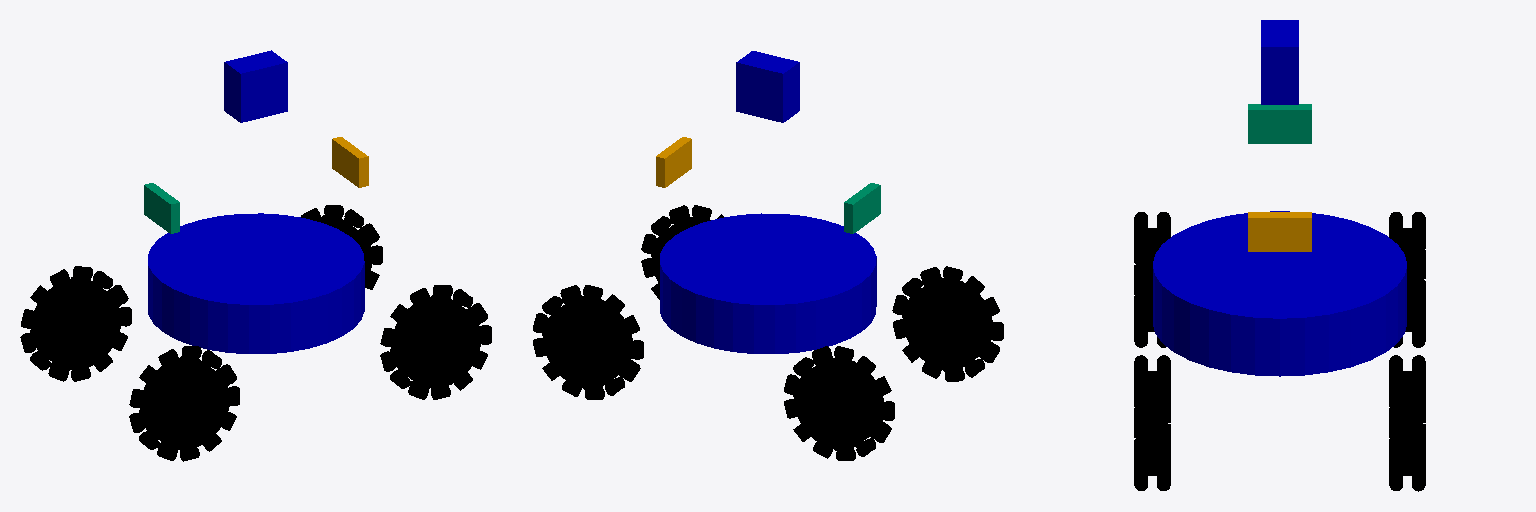
--- Facts derived from the render (not from the file) ---
3 views of the same robot in one strip: view 1: azimuth 30°, elevation 25°; view 2: azimuth 150°, elevation 25°; view 3: azimuth 270°, elevation 25° (orthographic).
Model roscontrol with 132 links and 131 joints (126 continuous, 5 fixed), rooted at base_link, posed every joint at zero.
Visible links, largest first — view 1: chassis_link, left_back_wheel, right_back_wheel, right_front_wheel, test_link, front_camera_link, back_camera_link, left_front_wheel; view 2: chassis_link, left_back_wheel, left_front_wheel, right_back_wheel, test_link, back_camera_link, front_camera_link, right_front_wheel; view 3: chassis_link, test_link, front_camera_link, back_camera_link, right_front_wheel, left_front_wheel, right_back_wheel, left_back_wheel.
Link boxes in pixels (bbox=[...]): chassis_link: bbox=[148, 213, 364, 353]; left_back_wheel: bbox=[31, 279, 121, 369]; right_back_wheel: bbox=[140, 358, 229, 449]; right_front_wheel: bbox=[391, 297, 480, 388]; test_link: bbox=[224, 50, 287, 122]; front_camera_link: bbox=[332, 137, 368, 187]; back_camera_link: bbox=[144, 183, 179, 233]; left_front_wheel: bbox=[317, 217, 372, 282]; chassis_link: bbox=[660, 213, 876, 353]; left_back_wheel: bbox=[794, 357, 883, 449]; left_front_wheel: bbox=[543, 296, 632, 388]; right_back_wheel: bbox=[903, 278, 992, 370]; test_link: bbox=[736, 51, 799, 122]; back_camera_link: bbox=[844, 183, 880, 233]; front_camera_link: bbox=[656, 137, 691, 187]; right_front_wheel: bbox=[651, 217, 710, 284]; chassis_link: bbox=[1153, 211, 1406, 376]; test_link: bbox=[1261, 20, 1298, 104]; front_camera_link: bbox=[1248, 212, 1311, 251]; back_camera_link: bbox=[1248, 104, 1311, 143]; right_front_wheel: bbox=[1137, 371, 1168, 475]; left_front_wheel: bbox=[1391, 371, 1422, 475]; right_back_wheel: bbox=[1137, 228, 1160, 331]; left_back_wheel: bbox=[1401, 228, 1422, 331].
Size in the robot's own frame: 0.3729 by 0.2286 by 0.3281 metres.
Geometry: primitives only (box / cylinder / sphere), no mesh files.

robot.urdf — roscontrol:
<?xml version="1.0" encoding="utf-8"?>
<!-- =================================================================================== -->
<!-- |    This document was autogenerated by xacro from robot.urdf.xacro               | -->
<!-- |    EDITING THIS FILE BY HAND IS NOT RECOMMENDED                                 | -->
<!-- =================================================================================== -->
<robot name="roscontrol">
  <link name="base_link"/>
  <material name="blue">
    <color rgba="0 0 0.8 1"/>
  </material>
  <material name="black">
    <color rgba="0 0 0 1"/>
  </material>
  <material name="white">
    <color rgba="1 1 1 1"/>
  </material>
  <link name="chassis_link">
    <visual>
      <origin rpy="0 0 0" xyz="0 0 0"/>
      <geometry>
        <cylinder length="0.05" radius="0.1"/>
      </geometry>
      <material name="blue"/>
    </visual>
    <collision>
      <origin rpy="0 0 0" xyz="0 0 0"/>
      <geometry>
        <cylinder length="0.05" radius="0.1"/>
      </geometry>
    </collision>
    <inertial>
      <mass value="10"/>
      <inertia ixx="0.5" ixy="0.0" ixz="0.0" iyy="0.3" iyz="0.0" izz="0.5"/>
    </inertial>
  </link>
  <link name="test_link">
    <visual>
      <origin rpy="0 0 0" xyz="0 0 0"/>
      <geometry>
        <box size="0.05 0.05 0.03"/>
      </geometry>
      <material name="blue"/>
    </visual>
    <collision>
      <origin rpy="0 0 0" xyz="0 0 0"/>
      <geometry>
        <box size="0.05 0.05 0.03"/>
      </geometry>
    </collision>
    <inertial>
      <mass value="0.01"/>
      <inertia ixx="0.001" ixy="0.0" ixz="0.0" iyy="0.001" iyz="0.0" izz="0.001"/>
    </inertial>
  </link>
  <joint name="top" type="continuous">
    <parent link="chassis_link"/>
    <child link="test_link"/>
    <origin rpy="1.57075 0 0" xyz="0 0 0.2"/>
    <axis xyz="0 0 1"/>
    <dynamics damping="0.005" friction="0.01"/>
  </joint>
  <gazebo reference="top">
    <provideFeedback>true</provideFeedback>
  </gazebo>
  <gazebo>
    <plugin filename="libgazebo_ros_dc_motor.so" name="motor_plugin">
      <motor_shaft_joint>top</motor_shaft_joint>
      <motor_wrench_frame>test_link</motor_wrench_frame>
      <command_topic>top/command</command_topic>
      <velocity_topic>top/velocity</velocity_topic>
      <encoder_topic>top/encoder</encoder_topic>
      <current_topic>top/current</current_topic>
      <publish_encoder>True</publish_encoder>
      <publish_velocity>True</publish_velocity>
      <publish_current>True</publish_current>
      <publish_motor_joint_state>False</publish_motor_joint_state>
      <update_rate>100.0</update_rate>
      <motor_nominal_voltage>12.0</motor_nominal_voltage>
      <moment_of_inertia>0.01</moment_of_inertia>
      <armature_damping_ratio>0.03</armature_damping_ratio>
      <electromotive_force_constant>0.03</electromotive_force_constant>
      <electric_resistance>6.0</electric_resistance>
      <electric_inductance>0.001</electric_inductance>
      <gear_ratio>18.0</gear_ratio>
      <encoder_ppr>50</encoder_ppr>
    </plugin>
  </gazebo>
  <link name="left_front_wheel">
    <visual>
      <origin rpy="1.57075 0 0" xyz="0 0 0"/>
      <geometry>
        <cylinder length="0.025" radius="0.041"/>
      </geometry>
      <material name="black"/>
    </visual>
    <collision>
      <origin rpy="1.57075 0 0" xyz="0 0 0"/>
      <geometry>
        <cylinder length="0.025" radius="0.041"/>
      </geometry>
    </collision>
    <inertial>
      <mass value="0.001"/>
      <inertia ixx="0.00001" ixy="0.0" ixz="0.0" iyy="0.00001" iyz="0.0" izz="0.00001"/>
    </inertial>
  </link>
  <joint name="left_front_wheel_joint" type="continuous">
    <axis xyz="0 1 0"/>
    <parent link="chassis_link"/>
    <child link="left_front_wheel"/>
    <origin rpy="0 0 0" xyz="0.133333333333 0.1 -.05"/>
  </joint>
  <!-- This block provides the simulator (Gazebo) with information on a few additional
        physical properties. See http://gazebosim.org/tutorials/?tut=ros_urdf for more-->
  <gazebo reference="left_front_wheel">
    <mu1 value="200.0"/>
    <mu2 value="100.0"/>
    <kp value="10000000.0"/>
    <kd value="1.0"/>
    <material>Gazebo/Green</material>
  </gazebo>
  <!-- This block connects the wheel joint to an actuator (motor), which informs both
        simulation and visualization of the robot -->
  <transmission name="left_front_wheel_trans">
    <type>transmission_interface/SimpleTransmission</type>
    <actuator name="left_front_wheel_motor">
      <mechanicalReduction>1</mechanicalReduction>
    </actuator>
    <joint name="left_front_wheel_joint">
      <hardwareInterface>VelocityJointInterface</hardwareInterface>
    </joint>
  </transmission>
  <link name="left_front_right_one_roller">
    <visual>
      <origin rpy="0 1.57075 0" xyz="0 0 0"/>
      <geometry>
        <cylinder length="0.015" radius="0.0055"/>
      </geometry>
      <material name="black"/>
    </visual>
    <collision>
      <origin rpy="0 1.57075 0" xyz="0 0 0"/>
      <geometry>
        <cylinder length="0.015" radius="0.0055"/>
      </geometry>
    </collision>
    <inertial>
      <mass value="0.001"/>
      <inertia ixx="0.00001" ixy="0.0" ixz="0.0" iyy="0.00001" iyz="0.0" izz="0.00001"/>
    </inertial>
  </link>
  <joint name="left_front_right_one_roller_joint" type="continuous">
    <axis xyz="1 0 0"/>
    <parent link="left_front_wheel"/>
    <child link="left_front_right_one_roller"/>
    <origin rpy="0 0.523583333333 0" xyz="0.023749364761 -0.0088 0.0411365734286"/>
    <dynamics damping="0.0001"/>
  </joint>
  <!-- This block provides the simulator (Gazebo) with information on a few additional
        physical properties. See http://gazebosim.org/tutorials/?tut=ros_urdf for more-->
  <gazebo reference="left_front_right_one_roller">
    <mu1 value="2000.0"/>
    <mu2 value="1000.0"/>
    <kp value="10000000.0"/>
    <kd value="1.0"/>
    <material>Gazebo/Grey</material>
  </gazebo>
  <!-- This block connects the wheel joint to an actuator (motor), which informs both
        simulation and visualization of the robot -->
  <link name="left_front_right_two_roller">
    <visual>
      <origin rpy="0 1.57075 0" xyz="0 0 0"/>
      <geometry>
        <cylinder length="0.015" radius="0.0055"/>
      </geometry>
      <material name="black"/>
    </visual>
    <collision>
      <origin rpy="0 1.57075 0" xyz="0 0 0"/>
      <geometry>
        <cylinder length="0.015" radius="0.0055"/>
      </geometry>
    </collision>
    <inertial>
      <mass value="0.001"/>
      <inertia ixx="0.00001" ixy="0.0" ixz="0.0" iyy="0.00001" iyz="0.0" izz="0.00001"/>
    </inertial>
  </link>
  <joint name="left_front_right_two_roller_joint" type="continuous">
    <axis xyz="1 0 0"/>
    <parent link="left_front_wheel"/>
    <child link="left_front_right_two_roller"/>
    <origin rpy="0 1.04716666667 0" xyz="0.0411354731526 -0.0088 0.0237512704611"/>
    <dynamics damping="0.0001"/>
  </joint>
  <!-- This block provides the simulator (Gazebo) with information on a few additional
        physical properties. See http://gazebosim.org/tutorials/?tut=ros_urdf for more-->
  <gazebo reference="left_front_right_two_roller">
    <mu1 value="2000.0"/>
    <mu2 value="1000.0"/>
    <kp value="10000000.0"/>
    <kd value="1.0"/>
    <material>Gazebo/Grey</material>
  </gazebo>
  <!-- This block connects the wheel joint to an actuator (motor), which informs both
        simulation and visualization of the robot -->
  <link name="left_front_right_thr_roller">
    <visual>
      <origin rpy="0 1.57075 0" xyz="0 0 0"/>
      <geometry>
        <cylinder length="0.015" radius="0.0055"/>
      </geometry>
      <material name="black"/>
    </visual>
    <collision>
      <origin rpy="0 1.57075 0" xyz="0 0 0"/>
      <geometry>
        <cylinder length="0.015" radius="0.0055"/>
      </geometry>
    </collision>
    <inertial>
      <mass value="0.001"/>
      <inertia ixx="0.00001" ixy="0.0" ixz="0.0" iyy="0.00001" iyz="0.0" izz="0.00001"/>
    </inertial>
  </link>
  <joint name="left_front_right_thr_roller_joint" type="continuous">
    <axis xyz="1 0 0"/>
    <parent link="left_front_wheel"/>
    <child link="left_front_right_thr_roller"/>
    <origin rpy="0 1.57075 0" xyz="0.047499999949 -0.0088 2.2005227568e-06"/>
    <dynamics damping="0.0001"/>
  </joint>
  <!-- This block provides the simulator (Gazebo) with information on a few additional
        physical properties. See http://gazebosim.org/tutorials/?tut=ros_urdf for more-->
  <gazebo reference="left_front_right_thr_roller">
    <mu1 value="2000.0"/>
    <mu2 value="1000.0"/>
    <kp value="10000000.0"/>
    <kd value="1.0"/>
    <material>Gazebo/Grey</material>
  </gazebo>
  <!-- This block connects the wheel joint to an actuator (motor), which informs both
        simulation and visualization of the robot -->
  <link name="left_front_right_for_roller">
    <visual>
      <origin rpy="0 1.57075 0" xyz="0 0 0"/>
      <geometry>
        <cylinder length="0.015" radius="0.0055"/>
      </geometry>
      <material name="black"/>
    </visual>
    <collision>
      <origin rpy="0 1.57075 0" xyz="0 0 0"/>
      <geometry>
        <cylinder length="0.015" radius="0.0055"/>
      </geometry>
    </collision>
    <inertial>
      <mass value="0.001"/>
      <inertia ixx="0.00001" ixy="0.0" ixz="0.0" iyy="0.00001" iyz="0.0" izz="0.00001"/>
    </inertial>
  </link>
  <joint name="left_front_right_for_roller_joint" type="continuous">
    <axis xyz="1 0 0"/>
    <parent link="left_front_wheel"/>
    <child link="left_front_right_for_roller"/>
    <origin rpy="0 2.09433333333 0" xyz="0.0411376736165 -0.0088 -0.0237474590099"/>
    <dynamics damping="0.0001"/>
  </joint>
  <!-- This block provides the simulator (Gazebo) with information on a few additional
        physical properties. See http://gazebosim.org/tutorials/?tut=ros_urdf for more-->
  <gazebo reference="left_front_right_for_roller">
    <mu1 value="2000.0"/>
    <mu2 value="1000.0"/>
    <kp value="10000000.0"/>
    <kd value="1.0"/>
    <material>Gazebo/Grey</material>
  </gazebo>
  <!-- This block connects the wheel joint to an actuator (motor), which informs both
        simulation and visualization of the robot -->
  <link name="left_front_right_fve_roller">
    <visual>
      <origin rpy="0 1.57075 0" xyz="0 0 0"/>
      <geometry>
        <cylinder length="0.015" radius="0.0055"/>
      </geometry>
      <material name="black"/>
    </visual>
    <collision>
      <origin rpy="0 1.57075 0" xyz="0 0 0"/>
      <geometry>
        <cylinder length="0.015" radius="0.0055"/>
      </geometry>
    </collision>
    <inertial>
      <mass value="0.001"/>
      <inertia ixx="0.00001" ixy="0.0" ixz="0.0" iyy="0.00001" iyz="0.0" izz="0.00001"/>
    </inertial>
  </link>
  <joint name="left_front_right_fve_roller_joint" type="continuous">
    <axis xyz="1 0 0"/>
    <parent link="left_front_wheel"/>
    <child link="left_front_right_fve_roller"/>
    <origin rpy="0 2.61791666667 0" xyz="0.0237531761102 -0.0088 -0.0411343727882"/>
    <dynamics damping="0.0001"/>
  </joint>
  <!-- This block provides the simulator (Gazebo) with information on a few additional
        physical properties. See http://gazebosim.org/tutorials/?tut=ros_urdf for more-->
  <gazebo reference="left_front_right_fve_roller">
    <mu1 value="2000.0"/>
    <mu2 value="1000.0"/>
    <kp value="10000000.0"/>
    <kd value="1.0"/>
    <material>Gazebo/Grey</material>
  </gazebo>
  <!-- This block connects the wheel joint to an actuator (motor), which informs both
        simulation and visualization of the robot -->
  <link name="left_front_right_six_roller">
    <visual>
      <origin rpy="0 1.57075 0" xyz="0 0 0"/>
      <geometry>
        <cylinder length="0.015" radius="0.0055"/>
      </geometry>
      <material name="black"/>
    </visual>
    <collision>
      <origin rpy="0 1.57075 0" xyz="0 0 0"/>
      <geometry>
        <cylinder length="0.015" radius="0.0055"/>
      </geometry>
    </collision>
    <inertial>
      <mass value="0.001"/>
      <inertia ixx="0.00001" ixy="0.0" ixz="0.0" iyy="0.00001" iyz="0.0" izz="0.00001"/>
    </inertial>
  </link>
  <joint name="left_front_right_six_roller_joint" type="continuous">
    <axis xyz="1 0 0"/>
    <parent link="left_front_wheel"/>
    <child link="left_front_right_six_roller"/>
    <origin rpy="0 3.1415 0" xyz="4.40104550887e-06 -0.0088 -0.0474999997961"/>
    <dynamics damping="0.0001"/>
  </joint>
  <!-- This block provides the simulator (Gazebo) with information on a few additional
        physical properties. See http://gazebosim.org/tutorials/?tut=ros_urdf for more-->
  <gazebo reference="left_front_right_six_roller">
    <mu1 value="2000.0"/>
    <mu2 value="1000.0"/>
    <kp value="10000000.0"/>
    <kd value="1.0"/>
    <material>Gazebo/Grey</material>
  </gazebo>
  <!-- This block connects the wheel joint to an actuator (motor), which informs both
        simulation and visualization of the robot -->
  <link name="left_front_right_svn_roller">
    <visual>
      <origin rpy="0 1.57075 0" xyz="0 0 0"/>
      <geometry>
        <cylinder length="0.015" radius="0.0055"/>
      </geometry>
      <material name="black"/>
    </visual>
    <collision>
      <origin rpy="0 1.57075 0" xyz="0 0 0"/>
      <geometry>
        <cylinder length="0.015" radius="0.0055"/>
      </geometry>
    </collision>
    <inertial>
      <mass value="0.001"/>
      <inertia ixx="0.00001" ixy="0.0" ixz="0.0" iyy="0.00001" iyz="0.0" izz="0.00001"/>
    </inertial>
  </link>
  <joint name="left_front_right_svn_roller_joint" type="continuous">
    <axis xyz="1 0 0"/>
    <parent link="left_front_wheel"/>
    <child link="left_front_right_svn_roller"/>
    <origin rpy="0 3.66508333333 0" xyz="-0.0237455532078 -0.0088 -0.041138773716"/>
    <dynamics damping="0.0001"/>
  </joint>
  <!-- This block provides the simulator (Gazebo) with information on a few additional
        physical properties. See http://gazebosim.org/tutorials/?tut=ros_urdf for more-->
  <gazebo reference="left_front_right_svn_roller">
    <mu1 value="2000.0"/>
    <mu2 value="1000.0"/>
    <kp value="10000000.0"/>
    <kd value="1.0"/>
    <material>Gazebo/Grey</material>
  </gazebo>
  <!-- This block connects the wheel joint to an actuator (motor), which informs both
        simulation and visualization of the robot -->
  <link name="left_front_right_ate_roller">
    <visual>
      <origin rpy="0 1.57075 0" xyz="0 0 0"/>
      <geometry>
        <cylinder length="0.015" radius="0.0055"/>
      </geometry>
      <material name="black"/>
    </visual>
    <collision>
      <origin rpy="0 1.57075 0" xyz="0 0 0"/>
      <geometry>
        <cylinder length="0.015" radius="0.0055"/>
      </geometry>
    </collision>
    <inertial>
      <mass value="0.001"/>
      <inertia ixx="0.00001" ixy="0.0" ixz="0.0" iyy="0.00001" iyz="0.0" izz="0.00001"/>
    </inertial>
  </link>
  <joint name="left_front_right_ate_roller_joint" type="continuous">
    <axis xyz="1 0 0"/>
    <parent link="left_front_wheel"/>
    <child link="left_front_right_ate_roller"/>
    <origin rpy="0 4.18866666667 0" xyz="-0.0411332723355 -0.0088 -0.0237550817084"/>
    <dynamics damping="0.0001"/>
  </joint>
  <!-- This block provides the simulator (Gazebo) with information on a few additional
        physical properties. See http://gazebosim.org/tutorials/?tut=ros_urdf for more-->
  <gazebo reference="left_front_right_ate_roller">
    <mu1 value="2000.0"/>
    <mu2 value="1000.0"/>
    <kp value="10000000.0"/>
    <kd value="1.0"/>
    <material>Gazebo/Grey</material>
  </gazebo>
  <!-- This block connects the wheel joint to an actuator (motor), which informs both
        simulation and visualization of the robot -->
  <link name="left_front_right_nne_roller">
    <visual>
      <origin rpy="0 1.57075 0" xyz="0 0 0"/>
      <geometry>
        <cylinder length="0.015" radius="0.0055"/>
      </geometry>
      <material name="black"/>
    </visual>
    <collision>
      <origin rpy="0 1.57075 0" xyz="0 0 0"/>
      <geometry>
        <cylinder length="0.015" radius="0.0055"/>
      </geometry>
    </collision>
    <inertial>
      <mass value="0.001"/>
      <inertia ixx="0.00001" ixy="0.0" ixz="0.0" iyy="0.00001" iyz="0.0" izz="0.00001"/>
    </inertial>
  </link>
  <joint name="left_front_right_nne_roller_joint" type="continuous">
    <axis xyz="1 0 0"/>
    <parent link="left_front_wheel"/>
    <child link="left_front_right_nne_roller"/>
    <origin rpy="0 4.71225 0" xyz="-0.0474999995413 -0.0088 -6.60156825151e-06"/>
    <dynamics damping="0.0001"/>
  </joint>
  <!-- This block provides the simulator (Gazebo) with information on a few additional
        physical properties. See http://gazebosim.org/tutorials/?tut=ros_urdf for more-->
  <gazebo reference="left_front_right_nne_roller">
    <mu1 value="2000.0"/>
    <mu2 value="1000.0"/>
    <kp value="10000000.0"/>
    <kd value="1.0"/>
    <material>Gazebo/Grey</material>
  </gazebo>
  <!-- This block connects the wheel joint to an actuator (motor), which informs both
        simulation and visualization of the robot -->
  <link name="left_front_right_ten_roller">
    <visual>
      <origin rpy="0 1.57075 0" xyz="0 0 0"/>
      <geometry>
        <cylinder length="0.015" radius="0.0055"/>
      </geometry>
      <material name="black"/>
    </visual>
    <collision>
      <origin rpy="0 1.57075 0" xyz="0 0 0"/>
      <geometry>
        <cylinder length="0.015" radius="0.0055"/>
      </geometry>
    </collision>
    <inertial>
      <mass value="0.001"/>
      <inertia ixx="0.00001" ixy="0.0" ixz="0.0" iyy="0.00001" iyz="0.0" izz="0.00001"/>
    </inertial>
  </link>
  <joint name="left_front_right_ten_roller_joint" type="continuous">
    <axis xyz="1 0 0"/>
    <parent link="left_front_wheel"/>
    <child link="left_front_right_ten_roller"/>
    <origin rpy="0 5.23583333333 0" xyz="-0.0411398737272 -0.0088 0.0237436473548"/>
    <dynamics damping="0.0001"/>
  </joint>
  <!-- This block provides the simulator (Gazebo) with information on a few additional
        physical properties. See http://gazebosim.org/tutorials/?tut=ros_urdf for more-->
  <gazebo reference="left_front_right_ten_roller">
    <mu1 value="2000.0"/>
    <mu2 value="1000.0"/>
    <kp value="10000000.0"/>
    <kd value="1.0"/>
    <material>Gazebo/Grey</material>
  </gazebo>
  <!-- This block connects the wheel joint to an actuator (motor), which informs both
        simulation and visualization of the robot -->
  <link name="left_front_right_lvn_roller">
    <visual>
      <origin rpy="0 1.57075 0" xyz="0 0 0"/>
      <geometry>
        <cylinder length="0.015" radius="0.0055"/>
      </geometry>
      <material name="black"/>
    </visual>
    <collision>
      <origin rpy="0 1.57075 0" xyz="0 0 0"/>
      <geometry>
        <cylinder length="0.015" radius="0.0055"/>
      </geometry>
    </collision>
    <inertial>
      <mass value="0.001"/>
      <inertia ixx="0.00001" ixy="0.0" ixz="0.0" iyy="0.00001" iyz="0.0" izz="0.00001"/>
    </inertial>
  </link>
  <joint name="left_front_right_lvn_roller_joint" type="continuous">
    <axis xyz="1 0 0"/>
    <parent link="left_front_wheel"/>
    <child link="left_front_right_lvn_roller"/>
    <origin rpy="0 5.75941666667 0" xyz="-0.0237569872556 -0.0088 0.0411321717946"/>
    <dynamics damping="0.0001"/>
  </joint>
  <!-- This block provides the simulator (Gazebo) with information on a few additional
        physical properties. See http://gazebosim.org/tutorials/?tut=ros_urdf for more-->
  <gazebo reference="left_front_right_lvn_roller">
    <mu1 value="2000.0"/>
    <mu2 value="1000.0"/>
    <kp value="10000000.0"/>
    <kd value="1.0"/>
    <material>Gazebo/Grey</material>
  </gazebo>
  <!-- This block connects the wheel joint to an actuator (motor), which informs both
        simulation and visualization of the robot -->
  <link name="left_front_right_wlv_roller">
    <visual>
      <origin rpy="0 1.57075 0" xyz="0 0 0"/>
      <geometry>
        <cylinder length="0.015" radius="0.0055"/>
      </geometry>
      <material name="black"/>
    </visual>
    <collision>
      <origin rpy="0 1.57075 0" xyz="0 0 0"/>
      <geometry>
        <cylinder length="0.015" radius="0.0055"/>
      </geometry>
    </collision>
    <inertial>
      <mass value="0.001"/>
      <inertia ixx="0.00001" ixy="0.0" ixz="0.0" iyy="0.00001" iyz="0.0" izz="0.00001"/>
    </inertial>
  </link>
  <joint name="left_front_right_wlv_roller_joint" type="continuous">
    <axis xyz="1 0 0"/>
    <parent link="left_front_wheel"/>
    <child link="left_front_right_wlv_roller"/>
    <origin rpy="0 6.283 0" xyz="-8.80209097996e-06 -0.0088 0.0474999991845"/>
    <dynamics damping="0.0001"/>
  </joint>
  <!-- This block provides the simulator (Gazebo) with information on a few additional
        physical properties. See http://gazebosim.org/tutorials/?tut=ros_urdf for more-->
  <gazebo reference="left_front_right_wlv_roller">
    <mu1 value="2000.0"/>
    <mu2 value="1000.0"/>
    <kp value="10000000.0"/>
    <kd value="1.0"/>
    <material>Gazebo/Grey</material>
  </gazebo>
  <!-- This block connects the wheel joint to an actuator (motor), which informs both
        simulation and visualization of the robot -->
  <link name="left_front_left_one_roller">
    <visual>
      <origin rpy="0 1.57075 0" xyz="0 0 0"/>
      <geometry>
        <cylinder length="0.015" radius="0.0055"/>
      </geometry>
      <material name="black"/>
    </visual>
    <collision>
      <origin rpy="0 1.57075 0" xyz="0 0 0"/>
      <geometry>
        <cylinder length="0.015" radius="0.0055"/>
      </geometry>
    </collision>
    <inertial>
      <mass value="0.001"/>
      <inertia ixx="0.00001" ixy="0.0" ixz="0.0" iyy="0.00001" iyz="0.0" izz="0.00001"/>
    </inertial>
  </link>
  <joint name="left_front_left_one_roller_joint" type="continuous">
    <axis xyz="1 0 0"/>
    <parent link="left_front_wheel"/>
    <child link="left_front_left_one_roller"/>
    <origin rpy="0 0.785375 0" xyz="0.0335867940951 0.0088 0.0335883500996"/>
    <dynamics damping="0.0001"/>
  </joint>
  <!-- This block provides the simulator (Gazebo) with information on a few additional
        physical properties. See http://gazebosim.org/tutorials/?tut=ros_urdf for more-->
  <gazebo reference="left_front_left_one_roller">
    <mu1 value="2000.0"/>
    <mu2 value="1000.0"/>
    <kp value="10000000.0"/>
    <kd value="1.0"/>
    <material>Gazebo/Grey</material>
  </gazebo>
  <!-- This block connects the wheel joint to an actuator (motor), which informs both
        simulation and visualization of the robot -->
  <link name="left_front_left_two_roller">
    <visual>
      <origin rpy="0 1.57075 0" xyz="0 0 0"/>
      <geometry>
        <cylinder length="0.015" radius="0.0055"/>
      </geometry>
      <material name="black"/>
    </visual>
    <collision>
      <origin rpy="0 1.57075 0" xyz="0 0 0"/>
      <geometry>
        <cylinder length="0.015" radius="0.0055"/>
      </geometry>
    </collision>
    <inertial>
      <mass value="0.001"/>
      <inertia ixx="0.00001" ixy="0.0" ixz="0.0" iyy="0.00001" iyz="0.0" izz="0.00001"/>
    </inertial>
  </link>
  <joint name="left_front_left_two_roller_joint" type="continuous">
    <axis xyz="1 0 0"/>
    <parent link="left_front_wheel"/>
    <child link="left_front_left_two_roller"/>
    <origin rpy="0 1.30895833333 0" xyz="0.0458810021002 0.0088 0.012295675918"/>
    <dynamics damping="0.0001"/>
  </joint>
  <!-- This block provides the simulator (Gazebo) with information on a few additional
        physical properties. See http://gazebosim.org/tutorials/?tut=ros_urdf for more-->
  <gazebo reference="left_front_left_two_roller">
    <mu1 value="2000.0"/>
    <mu2 value="1000.0"/>
    <kp value="10000000.0"/>
    <kd value="1.0"/>
    <material>Gazebo/Grey</material>
  </gazebo>
  <!-- This block connects the wheel joint to an actuator (motor), which informs both
        simulation and visualization of the robot -->
  <link name="left_front_left_thr_roller">
    <visual>
      <origin rpy="0 1.57075 0" xyz="0 0 0"/>
      <geometry>
        <cylinder length="0.015" radius="0.0055"/>
      </geometry>
      <material name="black"/>
    </visual>
    <collision>
      <origin rpy="0 1.57075 0" xyz="0 0 0"/>
      <geometry>
        <cylinder length="0.015" radius="0.0055"/>
      </geometry>
    </collision>
    <inertial>
      <mass value="0.001"/>
      <inertia ixx="0.00001" ixy="0.0" ixz="0.0" iyy="0.00001" iyz="0.0" izz="0.00001"/>
    </inertial>
  </link>
  <joint name="left_front_left_thr_roller_joint" type="continuous">
    <axis xyz="1 0 0"/>
    <parent link="left_front_wheel"/>
    <child link="left_front_left_thr_roller"/>
    <origin rpy="0 1.83254166667 0" xyz="0.0458821411418 0.0088 -0.0122914248257"/>
    <dynamics damping="0.0001"/>
  </joint>
  <!-- This block provides the simulator (Gazebo) with information on a few additional
        physical properties. See http://gazebosim.org/tutorials/?tut=ros_urdf for more-->
  <gazebo reference="left_front_left_thr_roller">
    <mu1 value="2000.0"/>
    <mu2 value="1000.0"/>
    <kp value="10000000.0"/>
    <kd value="1.0"/>
    <material>Gazebo/Grey</material>
  </gazebo>
  <!-- This block connects the wheel joint to an actuator (motor), which informs both
        simulation and visualization of the robot -->
  <link name="left_front_left_for_roller">
    <visual>
      <origin rpy="0 1.57075 0" xyz="0 0 0"/>
      <geometry>
        <cylinder length="0.015" radius="0.0055"/>
      </geometry>
      <material name="black"/>
    </visual>
    <collision>
      <origin rpy="0 1.57075 0" xyz="0 0 0"/>
      <geometry>
        <cylinder length="0.015" radius="0.0055"/>
      </geometry>
    </collision>
    <inertial>
      <mass value="0.001"/>
      <inertia ixx="0.00001" ixy="0.0" ixz="0.0" iyy="0.00001" iyz="0.0" izz="0.00001"/>
    </inertial>
  </link>
  <joint name="left_front_left_for_roller_joint" type="continuous">
    <axis xyz="1 0 0"/>
    <parent link="left_front_wheel"/>
    <child link="left_front_left_for_roller"/>
    <origin rpy="0 2.356125 0" xyz="0.0335899060321 0.0088 -0.0335852380184"/>
    <dynamics damping="0.0001"/>
  </joint>
  <!-- This block provides the simulator (Gazebo) with information on a few additional
        physical properties. See http://gazebosim.org/tutorials/?tut=ros_urdf for more-->
  <gazebo reference="left_front_left_for_roller">
    <mu1 value="2000.0"/>
    <mu2 value="1000.0"/>
    <kp value="10000000.0"/>
    <kd value="1.0"/>
    <material>Gazebo/Grey</material>
  </gazebo>
  <!-- This block connects the wheel joint to an actuator (motor), which informs both
        simulation and visualization of the robot -->
  <link name="left_front_left_fve_roller">
    <visual>
      <origin rpy="0 1.57075 0" xyz="0 0 0"/>
      <geometry>
        <cylinder length="0.015" radius="0.0055"/>
      </geometry>
      <material name="black"/>
    </visual>
    <collision>
      <origin rpy="0 1.57075 0" xyz="0 0 0"/>
      <geometry>
        <cylinder length="0.015" radius="0.0055"/>
      </geometry>
    </collision>
    <inertial>
      <mass value="0.001"/>
      <inertia ixx="0.00001" ixy="0.0" ixz="0.0" iyy="0.00001" iyz="0.0" izz="0.00001"/>
    </inertial>
  </link>
  <joint name="left_front_left_fve_roller_joint" type="continuous">
    <axis xyz="1 0 0"/>
    <parent link="left_front_wheel"/>
    <child link="left_front_left_fve_roller"/>
    <origin rpy="0 2.87970833333 0" xyz="0.0122978014246 0.0088 -0.0458804324317"/>
    <dynamics damping="0.0001"/>
  </joint>
  <!-- This block provides the simulator (Gazebo) with information on a few additional
        physical properties. See http://gazebosim.org/tutorials/?tut=ros_urdf for more-->
  <gazebo reference="left_front_left_fve_roller">
    <mu1 value="2000.0"/>
    <mu2 value="1000.0"/>
    <kp value="10000000.0"/>
    <kd value="1.0"/>
    <material>Gazebo/Grey</material>
  </gazebo>
  <!-- This block connects the wheel joint to an actuator (motor), which informs both
        simulation and visualization of the robot -->
  <link name="left_front_left_six_roller">
    <visual>
      <origin rpy="0 1.57075 0" xyz="0 0 0"/>
      <geometry>
        <cylinder length="0.015" radius="0.0055"/>
      </geometry>
      <material name="black"/>
    </visual>
    <collision>
      <origin rpy="0 1.57075 0" xyz="0 0 0"/>
      <geometry>
        <cylinder length="0.015" radius="0.0055"/>
      </geometry>
    </collision>
    <inertial>
      <mass value="0.001"/>
      <inertia ixx="0.00001" ixy="0.0" ixz="0.0" iyy="0.00001" iyz="0.0" izz="0.00001"/>
    </inertial>
  </link>
  <joint name="left_front_left_six_roller_joint" type="continuous">
    <axis xyz="1 0 0"/>
    <parent link="left_front_wheel"/>
    <child link="left_front_left_six_roller"/>
    <origin rpy="0 3.40329166667 0" xyz="-0.01228929924 0.0088 -0.0458827105149"/>
    <dynamics damping="0.0001"/>
  </joint>
  <!-- This block provides the simulator (Gazebo) with information on a few additional
        physical properties. See http://gazebosim.org/tutorials/?tut=ros_urdf for more-->
  <gazebo reference="left_front_left_six_roller">
    <mu1 value="2000.0"/>
    <mu2 value="1000.0"/>
    <kp value="10000000.0"/>
    <kd value="1.0"/>
    <material>Gazebo/Grey</material>
  </gazebo>
  <!-- This block connects the wheel joint to an actuator (motor), which informs both
        simulation and visualization of the robot -->
  <link name="left_front_left_svn_roller">
    <visual>
      <origin rpy="0 1.57075 0" xyz="0 0 0"/>
      <geometry>
        <cylinder length="0.015" radius="0.0055"/>
      </geometry>
      <material name="black"/>
    </visual>
    <collision>
      <origin rpy="0 1.57075 0" xyz="0 0 0"/>
      <geometry>
        <cylinder length="0.015" radius="0.0055"/>
      </geometry>
    </collision>
    <inertial>
      <mass value="0.001"/>
      <inertia ixx="0.00001" ixy="0.0" ixz="0.0" iyy="0.00001" iyz="0.0" izz="0.00001"/>
    </inertial>
  </link>
  <joint name="left_front_left_svn_roller_joint" type="continuous">
    <axis xyz="1 0 0"/>
    <parent link="left_front_wheel"/>
    <child link="left_front_left_svn_roller"/>
    <origin rpy="0 3.926875 0" xyz="-0.0335836818697 0.0088 -0.0335914618925"/>
    <dynamics damping="0.0001"/>
  </joint>
  <!-- This block provides the simulator (Gazebo) with information on a few additional
        physical properties. See http://gazebosim.org/tutorials/?tut=ros_urdf for more-->
  <gazebo reference="left_front_left_svn_roller">
    <mu1 value="2000.0"/>
    <mu2 value="1000.0"/>
    <kp value="10000000.0"/>
    <kd value="1.0"/>
    <material>Gazebo/Grey</material>
  </gazebo>
  <!-- This block connects the wheel joint to an actuator (motor), which informs both
        simulation and visualization of the robot -->
  <link name="left_front_left_ate_roller">
    <visual>
      <origin rpy="0 1.57075 0" xyz="0 0 0"/>
      <geometry>
        <cylinder length="0.015" radius="0.0055"/>
      </geometry>
      <material name="black"/>
    </visual>
    <collision>
      <origin rpy="0 1.57075 0" xyz="0 0 0"/>
      <geometry>
        <cylinder length="0.015" radius="0.0055"/>
      </geometry>
    </collision>
    <inertial>
      <mass value="0.001"/>
      <inertia ixx="0.00001" ixy="0.0" ixz="0.0" iyy="0.00001" iyz="0.0" izz="0.00001"/>
    </inertial>
  </link>
  <joint name="left_front_left_ate_roller_joint" type="continuous">
    <axis xyz="1 0 0"/>
    <parent link="left_front_wheel"/>
    <child link="left_front_left_ate_roller"/>
    <origin rpy="0 4.45045833333 0" xyz="-0.0458798626648 0.0088 -0.0122999269048"/>
    <dynamics damping="0.0001"/>
  </joint>
  <!-- This block provides the simulator (Gazebo) with information on a few additional
        physical properties. See http://gazebosim.org/tutorials/?tut=ros_urdf for more-->
  <gazebo reference="left_front_left_ate_roller">
    <mu1 value="2000.0"/>
    <mu2 value="1000.0"/>
    <kp value="10000000.0"/>
    <kd value="1.0"/>
    <material>Gazebo/Grey</material>
  </gazebo>
  <!-- This block connects the wheel joint to an actuator (motor), which informs both
        simulation and visualization of the robot -->
  <link name="left_front_left_nne_roller">
    <visual>
      <origin rpy="0 1.57075 0" xyz="0 0 0"/>
      <geometry>
        <cylinder length="0.015" radius="0.0055"/>
      </geometry>
      <material name="black"/>
    </visual>
    <collision>
      <origin rpy="0 1.57075 0" xyz="0 0 0"/>
      <geometry>
        <cylinder length="0.015" radius="0.0055"/>
      </geometry>
    </collision>
    <inertial>
      <mass value="0.001"/>
      <inertia ixx="0.00001" ixy="0.0" ixz="0.0" iyy="0.00001" iyz="0.0" izz="0.00001"/>
    </inertial>
  </link>
  <joint name="left_front_left_nne_roller_joint" type="continuous">
    <axis xyz="1 0 0"/>
    <parent link="left_front_wheel"/>
    <child link="left_front_left_nne_roller"/>
    <origin rpy="0 4.97404166667 0" xyz="-0.0458832797895 0.0088 0.0122871736279"/>
    <dynamics damping="0.0001"/>
  </joint>
  <!-- This block provides the simulator (Gazebo) with information on a few additional
        physical properties. See http://gazebosim.org/tutorials/?tut=ros_urdf for more-->
  <gazebo reference="left_front_left_nne_roller">
    <mu1 value="2000.0"/>
    <mu2 value="1000.0"/>
    <kp value="10000000.0"/>
    <kd value="1.0"/>
    <material>Gazebo/Grey</material>
  </gazebo>
  <!-- This block connects the wheel joint to an actuator (motor), which informs both
        simulation and visualization of the robot -->
  <link name="left_front_left_ten_roller">
    <visual>
      <origin rpy="0 1.57075 0" xyz="0 0 0"/>
      <geometry>
        <cylinder length="0.015" radius="0.0055"/>
      </geometry>
      <material name="black"/>
    </visual>
    <collision>
      <origin rpy="0 1.57075 0" xyz="0 0 0"/>
      <geometry>
        <cylinder length="0.015" radius="0.0055"/>
      </geometry>
    </collision>
    <inertial>
      <mass value="0.001"/>
      <inertia ixx="0.00001" ixy="0.0" ixz="0.0" iyy="0.00001" iyz="0.0" izz="0.00001"/>
    </inertial>
  </link>
  <joint name="left_front_left_ten_roller_joint" type="continuous">
    <axis xyz="1 0 0"/>
    <parent link="left_front_wheel"/>
    <child link="left_front_left_ten_roller"/>
    <origin rpy="0 5.497625 0" xyz="-0.0335930176808 0.0088 0.0335821256489"/>
    <dynamics damping="0.0001"/>
  </joint>
  <!-- This block provides the simulator (Gazebo) with information on a few additional
        physical properties. See http://gazebosim.org/tutorials/?tut=ros_urdf for more-->
  <gazebo reference="left_front_left_ten_roller">
    <mu1 value="2000.0"/>
    <mu2 value="1000.0"/>
    <kp value="10000000.0"/>
    <kd value="1.0"/>
    <material>Gazebo/Grey</material>
  </gazebo>
  <!-- This block connects the wheel joint to an actuator (motor), which informs both
        simulation and visualization of the robot -->
  <link name="left_front_left_lvn_roller">
    <visual>
      <origin rpy="0 1.57075 0" xyz="0 0 0"/>
      <geometry>
        <cylinder length="0.015" radius="0.0055"/>
      </geometry>
      <material name="black"/>
    </visual>
    <collision>
      <origin rpy="0 1.57075 0" xyz="0 0 0"/>
      <geometry>
        <cylinder length="0.015" radius="0.0055"/>
      </geometry>
    </collision>
    <inertial>
      <mass value="0.001"/>
      <inertia ixx="0.00001" ixy="0.0" ixz="0.0" iyy="0.00001" iyz="0.0" izz="0.00001"/>
    </inertial>
  </link>
  <joint name="left_front_left_lvn_roller_joint" type="continuous">
    <axis xyz="1 0 0"/>
    <parent link="left_front_wheel"/>
    <child link="left_front_left_lvn_roller"/>
    <origin rpy="0 6.02120833333 0" xyz="-0.0123020523586 0.0088 0.0458792927993"/>
    <dynamics damping="0.0001"/>
  </joint>
  <!-- This block provides the simulator (Gazebo) with information on a few additional
        physical properties. See http://gazebosim.org/tutorials/?tut=ros_urdf for more-->
  <gazebo reference="left_front_left_lvn_roller">
    <mu1 value="2000.0"/>
    <mu2 value="1000.0"/>
    <kp value="10000000.0"/>
    <kd value="1.0"/>
    <material>Gazebo/Grey</material>
  </gazebo>
  <!-- This block connects the wheel joint to an actuator (motor), which informs both
        simulation and visualization of the robot -->
  <link name="left_front_left_wlv_roller">
    <visual>
      <origin rpy="0 1.57075 0" xyz="0 0 0"/>
      <geometry>
        <cylinder length="0.015" radius="0.0055"/>
      </geometry>
      <material name="black"/>
    </visual>
    <collision>
      <origin rpy="0 1.57075 0" xyz="0 0 0"/>
      <geometry>
        <cylinder length="0.015" radius="0.0055"/>
      </geometry>
    </collision>
    <inertial>
      <mass value="0.001"/>
      <inertia ixx="0.00001" ixy="0.0" ixz="0.0" iyy="0.00001" iyz="0.0" izz="0.00001"/>
    </inertial>
  </link>
  <joint name="left_front_left_wlv_roller_joint" type="continuous">
    <axis xyz="1 0 0"/>
    <parent link="left_front_wheel"/>
    <child link="left_front_left_wlv_roller"/>
    <origin rpy="0 6.54479166667 0" xyz="0.0122850479894 0.0088 0.0458838489656"/>
    <dynamics damping="0.0001"/>
  </joint>
  <!-- This block provides the simulator (Gazebo) with information on a few additional
        physical properties. See http://gazebosim.org/tutorials/?tut=ros_urdf for more-->
  <gazebo reference="left_front_left_wlv_roller">
    <mu1 value="2000.0"/>
    <mu2 value="1000.0"/>
    <kp value="10000000.0"/>
    <kd value="1.0"/>
    <material>Gazebo/Grey</material>
  </gazebo>
  <!-- This block connects the wheel joint to an actuator (motor), which informs both
        simulation and visualization of the robot -->
  <link name="left_back_wheel">
    <visual>
      <origin rpy="1.57075 0 0" xyz="0 0 0"/>
      <geometry>
        <cylinder length="0.025" radius="0.041"/>
      </geometry>
      <material name="black"/>
    </visual>
    <collision>
      <origin rpy="1.57075 0 0" xyz="0 0 0"/>
      <geometry>
        <cylinder length="0.025" radius="0.041"/>
      </geometry>
    </collision>
    <inertial>
      <mass value="0.001"/>
      <inertia ixx="0.00001" ixy="0.0" ixz="0.0" iyy="0.00001" iyz="0.0" izz="0.00001"/>
    </inertial>
  </link>
  <joint name="left_back_wheel_joint" type="continuous">
    <axis xyz="0 1 0"/>
    <parent link="chassis_link"/>
    <child link="left_back_wheel"/>
    <origin rpy="0 0 0" xyz="-0.133333333333 0.1 -.05"/>
  </joint>
  <!-- This block provides the simulator (Gazebo) with information on a few additional
        physical properties. See http://gazebosim.org/tutorials/?tut=ros_urdf for more-->
  <gazebo reference="left_back_wheel">
    <mu1 value="200.0"/>
    <mu2 value="100.0"/>
    <kp value="10000000.0"/>
    <kd value="1.0"/>
    <material>Gazebo/Green</material>
  </gazebo>
  <!-- This block connects the wheel joint to an actuator (motor), which informs both
        simulation and visualization of the robot -->
  <transmission name="left_back_wheel_trans">
    <type>transmission_interface/SimpleTransmission</type>
    <actuator name="left_back_wheel_motor">
      <mechanicalReduction>1</mechanicalReduction>
    </actuator>
    <joint name="left_back_wheel_joint">
      <hardwareInterface>VelocityJointInterface</hardwareInterface>
    </joint>
  </transmission>
  <link name="left_back_right_one_roller">
    <visual>
      <origin rpy="0 1.57075 0" xyz="0 0 0"/>
      <geometry>
        <cylinder length="0.015" radius="0.0055"/>
      </geometry>
      <material name="black"/>
    </visual>
    <collision>
      <origin rpy="0 1.57075 0" xyz="0 0 0"/>
      <geometry>
        <cylinder length="0.015" radius="0.0055"/>
      </geometry>
    </collision>
    <inertial>
      <mass value="0.001"/>
      <inertia ixx="0.00001" ixy="0.0" ixz="0.0" iyy="0.00001" iyz="0.0" izz="0.00001"/>
    </inertial>
  </link>
  <joint name="left_back_right_one_roller_joint" type="continuous">
    <axis xyz="1 0 0"/>
    <parent link="left_back_wheel"/>
    <child link="left_back_right_one_roller"/>
    <origin rpy="0 0.523583333333 0" xyz="0.023749364761 -0.0088 0.0411365734286"/>
    <dynamics damping="0.0001"/>
  </joint>
  <!-- This block provides the simulator (Gazebo) with information on a few additional
        physical properties. See http://gazebosim.org/tutorials/?tut=ros_urdf for more-->
  <gazebo reference="left_back_right_one_roller">
    <mu1 value="2000.0"/>
    <mu2 value="1000.0"/>
    <kp value="10000000.0"/>
    <kd value="1.0"/>
    <material>Gazebo/Grey</material>
  </gazebo>
  <!-- This block connects the wheel joint to an actuator (motor), which informs both
        simulation and visualization of the robot -->
  <link name="left_back_right_two_roller">
    <visual>
      <origin rpy="0 1.57075 0" xyz="0 0 0"/>
      <geometry>
        <cylinder length="0.015" radius="0.0055"/>
      </geometry>
      <material name="black"/>
    </visual>
    <collision>
      <origin rpy="0 1.57075 0" xyz="0 0 0"/>
      <geometry>
        <cylinder length="0.015" radius="0.0055"/>
      </geometry>
    </collision>
    <inertial>
      <mass value="0.001"/>
      <inertia ixx="0.00001" ixy="0.0" ixz="0.0" iyy="0.00001" iyz="0.0" izz="0.00001"/>
    </inertial>
  </link>
  <joint name="left_back_right_two_roller_joint" type="continuous">
    <axis xyz="1 0 0"/>
    <parent link="left_back_wheel"/>
    <child link="left_back_right_two_roller"/>
    <origin rpy="0 1.04716666667 0" xyz="0.0411354731526 -0.0088 0.0237512704611"/>
    <dynamics damping="0.0001"/>
  </joint>
  <!-- This block provides the simulator (Gazebo) with information on a few additional
        physical properties. See http://gazebosim.org/tutorials/?tut=ros_urdf for more-->
  <gazebo reference="left_back_right_two_roller">
    <mu1 value="2000.0"/>
    <mu2 value="1000.0"/>
    <kp value="10000000.0"/>
    <kd value="1.0"/>
    <material>Gazebo/Grey</material>
  </gazebo>
  <!-- This block connects the wheel joint to an actuator (motor), which informs both
        simulation and visualization of the robot -->
  <link name="left_back_right_thr_roller">
    <visual>
      <origin rpy="0 1.57075 0" xyz="0 0 0"/>
      <geometry>
        <cylinder length="0.015" radius="0.0055"/>
      </geometry>
      <material name="black"/>
    </visual>
    <collision>
      <origin rpy="0 1.57075 0" xyz="0 0 0"/>
      <geometry>
        <cylinder length="0.015" radius="0.0055"/>
      </geometry>
    </collision>
    <inertial>
      <mass value="0.001"/>
      <inertia ixx="0.00001" ixy="0.0" ixz="0.0" iyy="0.00001" iyz="0.0" izz="0.00001"/>
    </inertial>
  </link>
  <joint name="left_back_right_thr_roller_joint" type="continuous">
    <axis xyz="1 0 0"/>
    <parent link="left_back_wheel"/>
    <child link="left_back_right_thr_roller"/>
    <origin rpy="0 1.57075 0" xyz="0.047499999949 -0.0088 2.2005227568e-06"/>
    <dynamics damping="0.0001"/>
  </joint>
  <!-- This block provides the simulator (Gazebo) with information on a few additional
        physical properties. See http://gazebosim.org/tutorials/?tut=ros_urdf for more-->
  <gazebo reference="left_back_right_thr_roller">
    <mu1 value="2000.0"/>
    <mu2 value="1000.0"/>
    <kp value="10000000.0"/>
    <kd value="1.0"/>
    <material>Gazebo/Grey</material>
  </gazebo>
  <!-- This block connects the wheel joint to an actuator (motor), which informs both
        simulation and visualization of the robot -->
  <link name="left_back_right_for_roller">
    <visual>
      <origin rpy="0 1.57075 0" xyz="0 0 0"/>
      <geometry>
        <cylinder length="0.015" radius="0.0055"/>
      </geometry>
      <material name="black"/>
    </visual>
    <collision>
      <origin rpy="0 1.57075 0" xyz="0 0 0"/>
      <geometry>
        <cylinder length="0.015" radius="0.0055"/>
      </geometry>
    </collision>
    <inertial>
      <mass value="0.001"/>
      <inertia ixx="0.00001" ixy="0.0" ixz="0.0" iyy="0.00001" iyz="0.0" izz="0.00001"/>
    </inertial>
  </link>
  <joint name="left_back_right_for_roller_joint" type="continuous">
    <axis xyz="1 0 0"/>
    <parent link="left_back_wheel"/>
    <child link="left_back_right_for_roller"/>
    <origin rpy="0 2.09433333333 0" xyz="0.0411376736165 -0.0088 -0.0237474590099"/>
    <dynamics damping="0.0001"/>
  </joint>
  <!-- This block provides the simulator (Gazebo) with information on a few additional
        physical properties. See http://gazebosim.org/tutorials/?tut=ros_urdf for more-->
  <gazebo reference="left_back_right_for_roller">
    <mu1 value="2000.0"/>
    <mu2 value="1000.0"/>
    <kp value="10000000.0"/>
    <kd value="1.0"/>
    <material>Gazebo/Grey</material>
  </gazebo>
  <!-- This block connects the wheel joint to an actuator (motor), which informs both
        simulation and visualization of the robot -->
  <link name="left_back_right_fve_roller">
    <visual>
      <origin rpy="0 1.57075 0" xyz="0 0 0"/>
      <geometry>
        <cylinder length="0.015" radius="0.0055"/>
      </geometry>
      <material name="black"/>
    </visual>
    <collision>
      <origin rpy="0 1.57075 0" xyz="0 0 0"/>
      <geometry>
        <cylinder length="0.015" radius="0.0055"/>
      </geometry>
    </collision>
    <inertial>
      <mass value="0.001"/>
      <inertia ixx="0.00001" ixy="0.0" ixz="0.0" iyy="0.00001" iyz="0.0" izz="0.00001"/>
    </inertial>
  </link>
  <joint name="left_back_right_fve_roller_joint" type="continuous">
    <axis xyz="1 0 0"/>
    <parent link="left_back_wheel"/>
    <child link="left_back_right_fve_roller"/>
    <origin rpy="0 2.61791666667 0" xyz="0.0237531761102 -0.0088 -0.0411343727882"/>
    <dynamics damping="0.0001"/>
  </joint>
  <!-- This block provides the simulator (Gazebo) with information on a few additional
        physical properties. See http://gazebosim.org/tutorials/?tut=ros_urdf for more-->
  <gazebo reference="left_back_right_fve_roller">
    <mu1 value="2000.0"/>
    <mu2 value="1000.0"/>
    <kp value="10000000.0"/>
    <kd value="1.0"/>
    <material>Gazebo/Grey</material>
  </gazebo>
  <!-- This block connects the wheel joint to an actuator (motor), which informs both
        simulation and visualization of the robot -->
  <link name="left_back_right_six_roller">
    <visual>
      <origin rpy="0 1.57075 0" xyz="0 0 0"/>
      <geometry>
        <cylinder length="0.015" radius="0.0055"/>
      </geometry>
      <material name="black"/>
    </visual>
    <collision>
      <origin rpy="0 1.57075 0" xyz="0 0 0"/>
      <geometry>
        <cylinder length="0.015" radius="0.0055"/>
      </geometry>
    </collision>
    <inertial>
      <mass value="0.001"/>
      <inertia ixx="0.00001" ixy="0.0" ixz="0.0" iyy="0.00001" iyz="0.0" izz="0.00001"/>
    </inertial>
  </link>
  <joint name="left_back_right_six_roller_joint" type="continuous">
    <axis xyz="1 0 0"/>
    <parent link="left_back_wheel"/>
    <child link="left_back_right_six_roller"/>
    <origin rpy="0 3.1415 0" xyz="4.40104550887e-06 -0.0088 -0.0474999997961"/>
    <dynamics damping="0.0001"/>
  </joint>
  <!-- This block provides the simulator (Gazebo) with information on a few additional
        physical properties. See http://gazebosim.org/tutorials/?tut=ros_urdf for more-->
  <gazebo reference="left_back_right_six_roller">
    <mu1 value="2000.0"/>
    <mu2 value="1000.0"/>
    <kp value="10000000.0"/>
    <kd value="1.0"/>
    <material>Gazebo/Grey</material>
  </gazebo>
  <!-- This block connects the wheel joint to an actuator (motor), which informs both
        simulation and visualization of the robot -->
  <link name="left_back_right_svn_roller">
    <visual>
      <origin rpy="0 1.57075 0" xyz="0 0 0"/>
      <geometry>
        <cylinder length="0.015" radius="0.0055"/>
      </geometry>
      <material name="black"/>
    </visual>
    <collision>
      <origin rpy="0 1.57075 0" xyz="0 0 0"/>
      <geometry>
        <cylinder length="0.015" radius="0.0055"/>
      </geometry>
    </collision>
    <inertial>
      <mass value="0.001"/>
      <inertia ixx="0.00001" ixy="0.0" ixz="0.0" iyy="0.00001" iyz="0.0" izz="0.00001"/>
    </inertial>
  </link>
  <joint name="left_back_right_svn_roller_joint" type="continuous">
    <axis xyz="1 0 0"/>
    <parent link="left_back_wheel"/>
    <child link="left_back_right_svn_roller"/>
    <origin rpy="0 3.66508333333 0" xyz="-0.0237455532078 -0.0088 -0.041138773716"/>
    <dynamics damping="0.0001"/>
  </joint>
  <!-- This block provides the simulator (Gazebo) with information on a few additional
        physical properties. See http://gazebosim.org/tutorials/?tut=ros_urdf for more-->
  <gazebo reference="left_back_right_svn_roller">
    <mu1 value="2000.0"/>
    <mu2 value="1000.0"/>
    <kp value="10000000.0"/>
    <kd value="1.0"/>
    <material>Gazebo/Grey</material>
  </gazebo>
  <!-- This block connects the wheel joint to an actuator (motor), which informs both
        simulation and visualization of the robot -->
  <link name="left_back_right_ate_roller">
    <visual>
      <origin rpy="0 1.57075 0" xyz="0 0 0"/>
      <geometry>
        <cylinder length="0.015" radius="0.0055"/>
      </geometry>
      <material name="black"/>
    </visual>
    <collision>
      <origin rpy="0 1.57075 0" xyz="0 0 0"/>
      <geometry>
        <cylinder length="0.015" radius="0.0055"/>
      </geometry>
    </collision>
    <inertial>
      <mass value="0.001"/>
      <inertia ixx="0.00001" ixy="0.0" ixz="0.0" iyy="0.00001" iyz="0.0" izz="0.00001"/>
    </inertial>
  </link>
  <joint name="left_back_right_ate_roller_joint" type="continuous">
    <axis xyz="1 0 0"/>
    <parent link="left_back_wheel"/>
    <child link="left_back_right_ate_roller"/>
    <origin rpy="0 4.18866666667 0" xyz="-0.0411332723355 -0.0088 -0.0237550817084"/>
    <dynamics damping="0.0001"/>
  </joint>
  <!-- This block provides the simulator (Gazebo) with information on a few additional
        physical properties. See http://gazebosim.org/tutorials/?tut=ros_urdf for more-->
  <gazebo reference="left_back_right_ate_roller">
    <mu1 value="2000.0"/>
    <mu2 value="1000.0"/>
    <kp value="10000000.0"/>
    <kd value="1.0"/>
    <material>Gazebo/Grey</material>
  </gazebo>
  <!-- This block connects the wheel joint to an actuator (motor), which informs both
        simulation and visualization of the robot -->
  <link name="left_back_right_nne_roller">
    <visual>
      <origin rpy="0 1.57075 0" xyz="0 0 0"/>
      <geometry>
        <cylinder length="0.015" radius="0.0055"/>
      </geometry>
      <material name="black"/>
    </visual>
    <collision>
      <origin rpy="0 1.57075 0" xyz="0 0 0"/>
      <geometry>
        <cylinder length="0.015" radius="0.0055"/>
      </geometry>
    </collision>
    <inertial>
      <mass value="0.001"/>
      <inertia ixx="0.00001" ixy="0.0" ixz="0.0" iyy="0.00001" iyz="0.0" izz="0.00001"/>
    </inertial>
  </link>
  <joint name="left_back_right_nne_roller_joint" type="continuous">
    <axis xyz="1 0 0"/>
    <parent link="left_back_wheel"/>
    <child link="left_back_right_nne_roller"/>
    <origin rpy="0 4.71225 0" xyz="-0.0474999995413 -0.0088 -6.60156825151e-06"/>
    <dynamics damping="0.0001"/>
  </joint>
  <!-- This block provides the simulator (Gazebo) with information on a few additional
        physical properties. See http://gazebosim.org/tutorials/?tut=ros_urdf for more-->
  <gazebo reference="left_back_right_nne_roller">
    <mu1 value="2000.0"/>
    <mu2 value="1000.0"/>
    <kp value="10000000.0"/>
    <kd value="1.0"/>
    <material>Gazebo/Grey</material>
  </gazebo>
  <!-- This block connects the wheel joint to an actuator (motor), which informs both
        simulation and visualization of the robot -->
  <link name="left_back_right_ten_roller">
    <visual>
      <origin rpy="0 1.57075 0" xyz="0 0 0"/>
      <geometry>
        <cylinder length="0.015" radius="0.0055"/>
      </geometry>
      <material name="black"/>
    </visual>
    <collision>
      <origin rpy="0 1.57075 0" xyz="0 0 0"/>
      <geometry>
        <cylinder length="0.015" radius="0.0055"/>
      </geometry>
    </collision>
    <inertial>
      <mass value="0.001"/>
      <inertia ixx="0.00001" ixy="0.0" ixz="0.0" iyy="0.00001" iyz="0.0" izz="0.00001"/>
    </inertial>
  </link>
  <joint name="left_back_right_ten_roller_joint" type="continuous">
    <axis xyz="1 0 0"/>
    <parent link="left_back_wheel"/>
    <child link="left_back_right_ten_roller"/>
    <origin rpy="0 5.23583333333 0" xyz="-0.0411398737272 -0.0088 0.0237436473548"/>
    <dynamics damping="0.0001"/>
  </joint>
  <!-- This block provides the simulator (Gazebo) with information on a few additional
        physical properties. See http://gazebosim.org/tutorials/?tut=ros_urdf for more-->
  <gazebo reference="left_back_right_ten_roller">
    <mu1 value="2000.0"/>
    <mu2 value="1000.0"/>
    <kp value="10000000.0"/>
    <kd value="1.0"/>
    <material>Gazebo/Grey</material>
  </gazebo>
  <!-- This block connects the wheel joint to an actuator (motor), which informs both
        simulation and visualization of the robot -->
  <link name="left_back_right_lvn_roller">
    <visual>
      <origin rpy="0 1.57075 0" xyz="0 0 0"/>
      <geometry>
        <cylinder length="0.015" radius="0.0055"/>
      </geometry>
      <material name="black"/>
    </visual>
    <collision>
      <origin rpy="0 1.57075 0" xyz="0 0 0"/>
      <geometry>
        <cylinder length="0.015" radius="0.0055"/>
      </geometry>
    </collision>
    <inertial>
      <mass value="0.001"/>
      <inertia ixx="0.00001" ixy="0.0" ixz="0.0" iyy="0.00001" iyz="0.0" izz="0.00001"/>
    </inertial>
  </link>
  <joint name="left_back_right_lvn_roller_joint" type="continuous">
    <axis xyz="1 0 0"/>
    <parent link="left_back_wheel"/>
    <child link="left_back_right_lvn_roller"/>
    <origin rpy="0 5.75941666667 0" xyz="-0.0237569872556 -0.0088 0.0411321717946"/>
    <dynamics damping="0.0001"/>
  </joint>
  <!-- This block provides the simulator (Gazebo) with information on a few additional
        physical properties. See http://gazebosim.org/tutorials/?tut=ros_urdf for more-->
  <gazebo reference="left_back_right_lvn_roller">
    <mu1 value="2000.0"/>
    <mu2 value="1000.0"/>
    <kp value="10000000.0"/>
    <kd value="1.0"/>
    <material>Gazebo/Grey</material>
  </gazebo>
  <!-- This block connects the wheel joint to an actuator (motor), which informs both
        simulation and visualization of the robot -->
  <link name="left_back_right_wlv_roller">
    <visual>
      <origin rpy="0 1.57075 0" xyz="0 0 0"/>
      <geometry>
        <cylinder length="0.015" radius="0.0055"/>
      </geometry>
      <material name="black"/>
    </visual>
    <collision>
      <origin rpy="0 1.57075 0" xyz="0 0 0"/>
      <geometry>
        <cylinder length="0.015" radius="0.0055"/>
      </geometry>
    </collision>
    <inertial>
      <mass value="0.001"/>
      <inertia ixx="0.00001" ixy="0.0" ixz="0.0" iyy="0.00001" iyz="0.0" izz="0.00001"/>
    </inertial>
  </link>
  <joint name="left_back_right_wlv_roller_joint" type="continuous">
    <axis xyz="1 0 0"/>
    <parent link="left_back_wheel"/>
    <child link="left_back_right_wlv_roller"/>
    <origin rpy="0 6.283 0" xyz="-8.80209097996e-06 -0.0088 0.0474999991845"/>
    <dynamics damping="0.0001"/>
  </joint>
  <!-- This block provides the simulator (Gazebo) with information on a few additional
        physical properties. See http://gazebosim.org/tutorials/?tut=ros_urdf for more-->
  <gazebo reference="left_back_right_wlv_roller">
    <mu1 value="2000.0"/>
    <mu2 value="1000.0"/>
    <kp value="10000000.0"/>
    <kd value="1.0"/>
    <material>Gazebo/Grey</material>
  </gazebo>
  <!-- This block connects the wheel joint to an actuator (motor), which informs both
        simulation and visualization of the robot -->
  <link name="left_back_left_one_roller">
    <visual>
      <origin rpy="0 1.57075 0" xyz="0 0 0"/>
      <geometry>
        <cylinder length="0.015" radius="0.0055"/>
      </geometry>
      <material name="black"/>
    </visual>
    <collision>
      <origin rpy="0 1.57075 0" xyz="0 0 0"/>
      <geometry>
        <cylinder length="0.015" radius="0.0055"/>
      </geometry>
    </collision>
    <inertial>
      <mass value="0.001"/>
      <inertia ixx="0.00001" ixy="0.0" ixz="0.0" iyy="0.00001" iyz="0.0" izz="0.00001"/>
    </inertial>
  </link>
  <joint name="left_back_left_one_roller_joint" type="continuous">
    <axis xyz="1 0 0"/>
    <parent link="left_back_wheel"/>
    <child link="left_back_left_one_roller"/>
    <origin rpy="0 0.785375 0" xyz="0.0335867940951 0.0088 0.0335883500996"/>
    <dynamics damping="0.0001"/>
  </joint>
  <!-- This block provides the simulator (Gazebo) with information on a few additional
        physical properties. See http://gazebosim.org/tutorials/?tut=ros_urdf for more-->
  <gazebo reference="left_back_left_one_roller">
    <mu1 value="2000.0"/>
    <mu2 value="1000.0"/>
    <kp value="10000000.0"/>
    <kd value="1.0"/>
    <material>Gazebo/Grey</material>
  </gazebo>
  <!-- This block connects the wheel joint to an actuator (motor), which informs both
        simulation and visualization of the robot -->
  <link name="left_back_left_two_roller">
    <visual>
      <origin rpy="0 1.57075 0" xyz="0 0 0"/>
      <geometry>
        <cylinder length="0.015" radius="0.0055"/>
      </geometry>
      <material name="black"/>
    </visual>
    <collision>
      <origin rpy="0 1.57075 0" xyz="0 0 0"/>
      <geometry>
        <cylinder length="0.015" radius="0.0055"/>
      </geometry>
    </collision>
    <inertial>
      <mass value="0.001"/>
      <inertia ixx="0.00001" ixy="0.0" ixz="0.0" iyy="0.00001" iyz="0.0" izz="0.00001"/>
    </inertial>
  </link>
  <joint name="left_back_left_two_roller_joint" type="continuous">
    <axis xyz="1 0 0"/>
    <parent link="left_back_wheel"/>
    <child link="left_back_left_two_roller"/>
    <origin rpy="0 1.30895833333 0" xyz="0.0458810021002 0.0088 0.012295675918"/>
    <dynamics damping="0.0001"/>
  </joint>
  <!-- This block provides the simulator (Gazebo) with information on a few additional
        physical properties. See http://gazebosim.org/tutorials/?tut=ros_urdf for more-->
  <gazebo reference="left_back_left_two_roller">
    <mu1 value="2000.0"/>
    <mu2 value="1000.0"/>
    <kp value="10000000.0"/>
    <kd value="1.0"/>
    <material>Gazebo/Grey</material>
  </gazebo>
  <!-- This block connects the wheel joint to an actuator (motor), which informs both
        simulation and visualization of the robot -->
  <link name="left_back_left_thr_roller">
    <visual>
      <origin rpy="0 1.57075 0" xyz="0 0 0"/>
      <geometry>
        <cylinder length="0.015" radius="0.0055"/>
      </geometry>
      <material name="black"/>
    </visual>
    <collision>
      <origin rpy="0 1.57075 0" xyz="0 0 0"/>
      <geometry>
        <cylinder length="0.015" radius="0.0055"/>
      </geometry>
    </collision>
    <inertial>
      <mass value="0.001"/>
      <inertia ixx="0.00001" ixy="0.0" ixz="0.0" iyy="0.00001" iyz="0.0" izz="0.00001"/>
    </inertial>
  </link>
  <joint name="left_back_left_thr_roller_joint" type="continuous">
    <axis xyz="1 0 0"/>
    <parent link="left_back_wheel"/>
    <child link="left_back_left_thr_roller"/>
    <origin rpy="0 1.83254166667 0" xyz="0.0458821411418 0.0088 -0.0122914248257"/>
    <dynamics damping="0.0001"/>
  </joint>
  <!-- This block provides the simulator (Gazebo) with information on a few additional
        physical properties. See http://gazebosim.org/tutorials/?tut=ros_urdf for more-->
  <gazebo reference="left_back_left_thr_roller">
    <mu1 value="2000.0"/>
    <mu2 value="1000.0"/>
    <kp value="10000000.0"/>
    <kd value="1.0"/>
    <material>Gazebo/Grey</material>
  </gazebo>
  <!-- This block connects the wheel joint to an actuator (motor), which informs both
        simulation and visualization of the robot -->
  <link name="left_back_left_for_roller">
    <visual>
      <origin rpy="0 1.57075 0" xyz="0 0 0"/>
      <geometry>
        <cylinder length="0.015" radius="0.0055"/>
      </geometry>
      <material name="black"/>
    </visual>
    <collision>
      <origin rpy="0 1.57075 0" xyz="0 0 0"/>
      <geometry>
        <cylinder length="0.015" radius="0.0055"/>
      </geometry>
    </collision>
    <inertial>
      <mass value="0.001"/>
      <inertia ixx="0.00001" ixy="0.0" ixz="0.0" iyy="0.00001" iyz="0.0" izz="0.00001"/>
    </inertial>
  </link>
  <joint name="left_back_left_for_roller_joint" type="continuous">
    <axis xyz="1 0 0"/>
    <parent link="left_back_wheel"/>
    <child link="left_back_left_for_roller"/>
    <origin rpy="0 2.356125 0" xyz="0.0335899060321 0.0088 -0.0335852380184"/>
    <dynamics damping="0.0001"/>
  </joint>
  <!-- This block provides the simulator (Gazebo) with information on a few additional
        physical properties. See http://gazebosim.org/tutorials/?tut=ros_urdf for more-->
  <gazebo reference="left_back_left_for_roller">
    <mu1 value="2000.0"/>
    <mu2 value="1000.0"/>
    <kp value="10000000.0"/>
    <kd value="1.0"/>
    <material>Gazebo/Grey</material>
  </gazebo>
  <!-- This block connects the wheel joint to an actuator (motor), which informs both
        simulation and visualization of the robot -->
  <link name="left_back_left_fve_roller">
    <visual>
      <origin rpy="0 1.57075 0" xyz="0 0 0"/>
      <geometry>
        <cylinder length="0.015" radius="0.0055"/>
      </geometry>
      <material name="black"/>
    </visual>
    <collision>
      <origin rpy="0 1.57075 0" xyz="0 0 0"/>
      <geometry>
        <cylinder length="0.015" radius="0.0055"/>
      </geometry>
    </collision>
    <inertial>
      <mass value="0.001"/>
      <inertia ixx="0.00001" ixy="0.0" ixz="0.0" iyy="0.00001" iyz="0.0" izz="0.00001"/>
    </inertial>
  </link>
  <joint name="left_back_left_fve_roller_joint" type="continuous">
    <axis xyz="1 0 0"/>
    <parent link="left_back_wheel"/>
    <child link="left_back_left_fve_roller"/>
    <origin rpy="0 2.87970833333 0" xyz="0.0122978014246 0.0088 -0.0458804324317"/>
    <dynamics damping="0.0001"/>
  </joint>
  <!-- This block provides the simulator (Gazebo) with information on a few additional
        physical properties. See http://gazebosim.org/tutorials/?tut=ros_urdf for more-->
  <gazebo reference="left_back_left_fve_roller">
    <mu1 value="2000.0"/>
    <mu2 value="1000.0"/>
    <kp value="10000000.0"/>
    <kd value="1.0"/>
    <material>Gazebo/Grey</material>
  </gazebo>
  <!-- This block connects the wheel joint to an actuator (motor), which informs both
        simulation and visualization of the robot -->
  <link name="left_back_left_six_roller">
    <visual>
      <origin rpy="0 1.57075 0" xyz="0 0 0"/>
      <geometry>
        <cylinder length="0.015" radius="0.0055"/>
      </geometry>
      <material name="black"/>
    </visual>
    <collision>
      <origin rpy="0 1.57075 0" xyz="0 0 0"/>
      <geometry>
        <cylinder length="0.015" radius="0.0055"/>
      </geometry>
    </collision>
    <inertial>
      <mass value="0.001"/>
      <inertia ixx="0.00001" ixy="0.0" ixz="0.0" iyy="0.00001" iyz="0.0" izz="0.00001"/>
    </inertial>
  </link>
  <joint name="left_back_left_six_roller_joint" type="continuous">
    <axis xyz="1 0 0"/>
    <parent link="left_back_wheel"/>
    <child link="left_back_left_six_roller"/>
    <origin rpy="0 3.40329166667 0" xyz="-0.01228929924 0.0088 -0.0458827105149"/>
    <dynamics damping="0.0001"/>
  </joint>
  <!-- This block provides the simulator (Gazebo) with information on a few additional
        physical properties. See http://gazebosim.org/tutorials/?tut=ros_urdf for more-->
  <gazebo reference="left_back_left_six_roller">
    <mu1 value="2000.0"/>
    <mu2 value="1000.0"/>
    <kp value="10000000.0"/>
    <kd value="1.0"/>
    <material>Gazebo/Grey</material>
  </gazebo>
  <!-- This block connects the wheel joint to an actuator (motor), which informs both
        simulation and visualization of the robot -->
  <link name="left_back_left_svn_roller">
    <visual>
      <origin rpy="0 1.57075 0" xyz="0 0 0"/>
      <geometry>
        <cylinder length="0.015" radius="0.0055"/>
      </geometry>
      <material name="black"/>
    </visual>
    <collision>
      <origin rpy="0 1.57075 0" xyz="0 0 0"/>
      <geometry>
        <cylinder length="0.015" radius="0.0055"/>
      </geometry>
    </collision>
    <inertial>
      <mass value="0.001"/>
      <inertia ixx="0.00001" ixy="0.0" ixz="0.0" iyy="0.00001" iyz="0.0" izz="0.00001"/>
    </inertial>
  </link>
  <joint name="left_back_left_svn_roller_joint" type="continuous">
    <axis xyz="1 0 0"/>
    <parent link="left_back_wheel"/>
    <child link="left_back_left_svn_roller"/>
    <origin rpy="0 3.926875 0" xyz="-0.0335836818697 0.0088 -0.0335914618925"/>
    <dynamics damping="0.0001"/>
  </joint>
  <!-- This block provides the simulator (Gazebo) with information on a few additional
        physical properties. See http://gazebosim.org/tutorials/?tut=ros_urdf for more-->
  <gazebo reference="left_back_left_svn_roller">
    <mu1 value="2000.0"/>
    <mu2 value="1000.0"/>
    <kp value="10000000.0"/>
    <kd value="1.0"/>
    <material>Gazebo/Grey</material>
  </gazebo>
  <!-- This block connects the wheel joint to an actuator (motor), which informs both
        simulation and visualization of the robot -->
  <link name="left_back_left_ate_roller">
    <visual>
      <origin rpy="0 1.57075 0" xyz="0 0 0"/>
      <geometry>
        <cylinder length="0.015" radius="0.0055"/>
      </geometry>
      <material name="black"/>
    </visual>
    <collision>
      <origin rpy="0 1.57075 0" xyz="0 0 0"/>
      <geometry>
        <cylinder length="0.015" radius="0.0055"/>
      </geometry>
    </collision>
    <inertial>
      <mass value="0.001"/>
      <inertia ixx="0.00001" ixy="0.0" ixz="0.0" iyy="0.00001" iyz="0.0" izz="0.00001"/>
    </inertial>
  </link>
  <joint name="left_back_left_ate_roller_joint" type="continuous">
    <axis xyz="1 0 0"/>
    <parent link="left_back_wheel"/>
    <child link="left_back_left_ate_roller"/>
    <origin rpy="0 4.45045833333 0" xyz="-0.0458798626648 0.0088 -0.0122999269048"/>
    <dynamics damping="0.0001"/>
  </joint>
  <!-- This block provides the simulator (Gazebo) with information on a few additional
        physical properties. See http://gazebosim.org/tutorials/?tut=ros_urdf for more-->
  <gazebo reference="left_back_left_ate_roller">
    <mu1 value="2000.0"/>
    <mu2 value="1000.0"/>
    <kp value="10000000.0"/>
    <kd value="1.0"/>
    <material>Gazebo/Grey</material>
  </gazebo>
  <!-- This block connects the wheel joint to an actuator (motor), which informs both
        simulation and visualization of the robot -->
  <link name="left_back_left_nne_roller">
    <visual>
      <origin rpy="0 1.57075 0" xyz="0 0 0"/>
      <geometry>
        <cylinder length="0.015" radius="0.0055"/>
      </geometry>
      <material name="black"/>
    </visual>
    <collision>
      <origin rpy="0 1.57075 0" xyz="0 0 0"/>
      <geometry>
        <cylinder length="0.015" radius="0.0055"/>
      </geometry>
    </collision>
    <inertial>
      <mass value="0.001"/>
      <inertia ixx="0.00001" ixy="0.0" ixz="0.0" iyy="0.00001" iyz="0.0" izz="0.00001"/>
    </inertial>
  </link>
  <joint name="left_back_left_nne_roller_joint" type="continuous">
    <axis xyz="1 0 0"/>
    <parent link="left_back_wheel"/>
    <child link="left_back_left_nne_roller"/>
    <origin rpy="0 4.97404166667 0" xyz="-0.0458832797895 0.0088 0.0122871736279"/>
    <dynamics damping="0.0001"/>
  </joint>
  <!-- This block provides the simulator (Gazebo) with information on a few additional
        physical properties. See http://gazebosim.org/tutorials/?tut=ros_urdf for more-->
  <gazebo reference="left_back_left_nne_roller">
    <mu1 value="2000.0"/>
    <mu2 value="1000.0"/>
    <kp value="10000000.0"/>
    <kd value="1.0"/>
    <material>Gazebo/Grey</material>
  </gazebo>
  <!-- This block connects the wheel joint to an actuator (motor), which informs both
        simulation and visualization of the robot -->
  <link name="left_back_left_ten_roller">
    <visual>
      <origin rpy="0 1.57075 0" xyz="0 0 0"/>
      <geometry>
        <cylinder length="0.015" radius="0.0055"/>
      </geometry>
      <material name="black"/>
    </visual>
    <collision>
      <origin rpy="0 1.57075 0" xyz="0 0 0"/>
      <geometry>
        <cylinder length="0.015" radius="0.0055"/>
      </geometry>
    </collision>
    <inertial>
      <mass value="0.001"/>
      <inertia ixx="0.00001" ixy="0.0" ixz="0.0" iyy="0.00001" iyz="0.0" izz="0.00001"/>
    </inertial>
  </link>
  <joint name="left_back_left_ten_roller_joint" type="continuous">
    <axis xyz="1 0 0"/>
    <parent link="left_back_wheel"/>
    <child link="left_back_left_ten_roller"/>
    <origin rpy="0 5.497625 0" xyz="-0.0335930176808 0.0088 0.0335821256489"/>
    <dynamics damping="0.0001"/>
  </joint>
  <!-- This block provides the simulator (Gazebo) with information on a few additional
        physical properties. See http://gazebosim.org/tutorials/?tut=ros_urdf for more-->
  <gazebo reference="left_back_left_ten_roller">
    <mu1 value="2000.0"/>
    <mu2 value="1000.0"/>
    <kp value="10000000.0"/>
    <kd value="1.0"/>
    <material>Gazebo/Grey</material>
  </gazebo>
  <!-- This block connects the wheel joint to an actuator (motor), which informs both
        simulation and visualization of the robot -->
  <link name="left_back_left_lvn_roller">
    <visual>
      <origin rpy="0 1.57075 0" xyz="0 0 0"/>
      <geometry>
        <cylinder length="0.015" radius="0.0055"/>
      </geometry>
      <material name="black"/>
    </visual>
    <collision>
      <origin rpy="0 1.57075 0" xyz="0 0 0"/>
      <geometry>
        <cylinder length="0.015" radius="0.0055"/>
      </geometry>
    </collision>
    <inertial>
      <mass value="0.001"/>
      <inertia ixx="0.00001" ixy="0.0" ixz="0.0" iyy="0.00001" iyz="0.0" izz="0.00001"/>
    </inertial>
  </link>
  <joint name="left_back_left_lvn_roller_joint" type="continuous">
    <axis xyz="1 0 0"/>
    <parent link="left_back_wheel"/>
    <child link="left_back_left_lvn_roller"/>
    <origin rpy="0 6.02120833333 0" xyz="-0.0123020523586 0.0088 0.0458792927993"/>
    <dynamics damping="0.0001"/>
  </joint>
  <!-- This block provides the simulator (Gazebo) with information on a few additional
        physical properties. See http://gazebosim.org/tutorials/?tut=ros_urdf for more-->
  <gazebo reference="left_back_left_lvn_roller">
    <mu1 value="2000.0"/>
    <mu2 value="1000.0"/>
    <kp value="10000000.0"/>
    <kd value="1.0"/>
    <material>Gazebo/Grey</material>
  </gazebo>
  <!-- This block connects the wheel joint to an actuator (motor), which informs both
        simulation and visualization of the robot -->
  <link name="left_back_left_wlv_roller">
    <visual>
      <origin rpy="0 1.57075 0" xyz="0 0 0"/>
      <geometry>
        <cylinder length="0.015" radius="0.0055"/>
      </geometry>
      <material name="black"/>
    </visual>
    <collision>
      <origin rpy="0 1.57075 0" xyz="0 0 0"/>
      <geometry>
        <cylinder length="0.015" radius="0.0055"/>
      </geometry>
    </collision>
    <inertial>
      <mass value="0.001"/>
      <inertia ixx="0.00001" ixy="0.0" ixz="0.0" iyy="0.00001" iyz="0.0" izz="0.00001"/>
    </inertial>
  </link>
  <joint name="left_back_left_wlv_roller_joint" type="continuous">
    <axis xyz="1 0 0"/>
    <parent link="left_back_wheel"/>
    <child link="left_back_left_wlv_roller"/>
    <origin rpy="0 6.54479166667 0" xyz="0.0122850479894 0.0088 0.0458838489656"/>
    <dynamics damping="0.0001"/>
  </joint>
  <!-- This block provides the simulator (Gazebo) with information on a few additional
        physical properties. See http://gazebosim.org/tutorials/?tut=ros_urdf for more-->
  <gazebo reference="left_back_left_wlv_roller">
    <mu1 value="2000.0"/>
    <mu2 value="1000.0"/>
    <kp value="10000000.0"/>
    <kd value="1.0"/>
    <material>Gazebo/Grey</material>
  </gazebo>
  <!-- This block connects the wheel joint to an actuator (motor), which informs both
        simulation and visualization of the robot -->
  <link name="right_front_wheel">
    <visual>
      <origin rpy="1.57075 0 0" xyz="0 0 0"/>
      <geometry>
        <cylinder length="0.025" radius="0.041"/>
      </geometry>
      <material name="black"/>
    </visual>
    <collision>
      <origin rpy="1.57075 0 0" xyz="0 0 0"/>
      <geometry>
        <cylinder length="0.025" radius="0.041"/>
      </geometry>
    </collision>
    <inertial>
      <mass value="0.001"/>
      <inertia ixx="0.00001" ixy="0.0" ixz="0.0" iyy="0.00001" iyz="0.0" izz="0.00001"/>
    </inertial>
  </link>
  <joint name="right_front_wheel_joint" type="continuous">
    <axis xyz="0 1 0"/>
    <parent link="chassis_link"/>
    <child link="right_front_wheel"/>
    <origin rpy="0 0 0" xyz="0.133333333333 -0.1 -.05"/>
  </joint>
  <!-- This block provides the simulator (Gazebo) with information on a few additional
        physical properties. See http://gazebosim.org/tutorials/?tut=ros_urdf for more-->
  <gazebo reference="right_front_wheel">
    <mu1 value="200.0"/>
    <mu2 value="100.0"/>
    <kp value="10000000.0"/>
    <kd value="1.0"/>
    <material>Gazebo/Green</material>
  </gazebo>
  <!-- This block connects the wheel joint to an actuator (motor), which informs both
        simulation and visualization of the robot -->
  <transmission name="right_front_wheel_trans">
    <type>transmission_interface/SimpleTransmission</type>
    <actuator name="right_front_wheel_motor">
      <mechanicalReduction>1</mechanicalReduction>
    </actuator>
    <joint name="right_front_wheel_joint">
      <hardwareInterface>VelocityJointInterface</hardwareInterface>
    </joint>
  </transmission>
  <link name="right_front_right_one_roller">
    <visual>
      <origin rpy="0 1.57075 0" xyz="0 0 0"/>
      <geometry>
        <cylinder length="0.015" radius="0.0055"/>
      </geometry>
      <material name="black"/>
    </visual>
    <collision>
      <origin rpy="0 1.57075 0" xyz="0 0 0"/>
      <geometry>
        <cylinder length="0.015" radius="0.0055"/>
      </geometry>
    </collision>
    <inertial>
      <mass value="0.001"/>
      <inertia ixx="0.00001" ixy="0.0" ixz="0.0" iyy="0.00001" iyz="0.0" izz="0.00001"/>
    </inertial>
  </link>
  <joint name="right_front_right_one_roller_joint" type="continuous">
    <axis xyz="1 0 0"/>
    <parent link="right_front_wheel"/>
    <child link="right_front_right_one_roller"/>
    <origin rpy="0 0.523583333333 0" xyz="0.023749364761 -0.0088 0.0411365734286"/>
    <dynamics damping="0.0001"/>
  </joint>
  <!-- This block provides the simulator (Gazebo) with information on a few additional
        physical properties. See http://gazebosim.org/tutorials/?tut=ros_urdf for more-->
  <gazebo reference="right_front_right_one_roller">
    <mu1 value="2000.0"/>
    <mu2 value="1000.0"/>
    <kp value="10000000.0"/>
    <kd value="1.0"/>
    <material>Gazebo/Grey</material>
  </gazebo>
  <!-- This block connects the wheel joint to an actuator (motor), which informs both
        simulation and visualization of the robot -->
  <link name="right_front_right_two_roller">
    <visual>
      <origin rpy="0 1.57075 0" xyz="0 0 0"/>
      <geometry>
        <cylinder length="0.015" radius="0.0055"/>
      </geometry>
      <material name="black"/>
    </visual>
    <collision>
      <origin rpy="0 1.57075 0" xyz="0 0 0"/>
      <geometry>
        <cylinder length="0.015" radius="0.0055"/>
      </geometry>
    </collision>
    <inertial>
      <mass value="0.001"/>
      <inertia ixx="0.00001" ixy="0.0" ixz="0.0" iyy="0.00001" iyz="0.0" izz="0.00001"/>
    </inertial>
  </link>
  <joint name="right_front_right_two_roller_joint" type="continuous">
    <axis xyz="1 0 0"/>
    <parent link="right_front_wheel"/>
    <child link="right_front_right_two_roller"/>
    <origin rpy="0 1.04716666667 0" xyz="0.0411354731526 -0.0088 0.0237512704611"/>
    <dynamics damping="0.0001"/>
  </joint>
  <!-- This block provides the simulator (Gazebo) with information on a few additional
        physical properties. See http://gazebosim.org/tutorials/?tut=ros_urdf for more-->
  <gazebo reference="right_front_right_two_roller">
    <mu1 value="2000.0"/>
    <mu2 value="1000.0"/>
    <kp value="10000000.0"/>
    <kd value="1.0"/>
    <material>Gazebo/Grey</material>
  </gazebo>
  <!-- This block connects the wheel joint to an actuator (motor), which informs both
        simulation and visualization of the robot -->
  <link name="right_front_right_thr_roller">
    <visual>
      <origin rpy="0 1.57075 0" xyz="0 0 0"/>
      <geometry>
        <cylinder length="0.015" radius="0.0055"/>
      </geometry>
      <material name="black"/>
    </visual>
    <collision>
      <origin rpy="0 1.57075 0" xyz="0 0 0"/>
      <geometry>
        <cylinder length="0.015" radius="0.0055"/>
      </geometry>
    </collision>
    <inertial>
      <mass value="0.001"/>
      <inertia ixx="0.00001" ixy="0.0" ixz="0.0" iyy="0.00001" iyz="0.0" izz="0.00001"/>
    </inertial>
  </link>
  <joint name="right_front_right_thr_roller_joint" type="continuous">
    <axis xyz="1 0 0"/>
    <parent link="right_front_wheel"/>
    <child link="right_front_right_thr_roller"/>
    <origin rpy="0 1.57075 0" xyz="0.047499999949 -0.0088 2.2005227568e-06"/>
    <dynamics damping="0.0001"/>
  </joint>
  <!-- This block provides the simulator (Gazebo) with information on a few additional
        physical properties. See http://gazebosim.org/tutorials/?tut=ros_urdf for more-->
  <gazebo reference="right_front_right_thr_roller">
    <mu1 value="2000.0"/>
    <mu2 value="1000.0"/>
    <kp value="10000000.0"/>
    <kd value="1.0"/>
    <material>Gazebo/Grey</material>
  </gazebo>
  <!-- This block connects the wheel joint to an actuator (motor), which informs both
        simulation and visualization of the robot -->
  <link name="right_front_right_for_roller">
    <visual>
      <origin rpy="0 1.57075 0" xyz="0 0 0"/>
      <geometry>
        <cylinder length="0.015" radius="0.0055"/>
      </geometry>
      <material name="black"/>
    </visual>
    <collision>
      <origin rpy="0 1.57075 0" xyz="0 0 0"/>
      <geometry>
        <cylinder length="0.015" radius="0.0055"/>
      </geometry>
    </collision>
    <inertial>
      <mass value="0.001"/>
      <inertia ixx="0.00001" ixy="0.0" ixz="0.0" iyy="0.00001" iyz="0.0" izz="0.00001"/>
    </inertial>
  </link>
  <joint name="right_front_right_for_roller_joint" type="continuous">
    <axis xyz="1 0 0"/>
    <parent link="right_front_wheel"/>
    <child link="right_front_right_for_roller"/>
    <origin rpy="0 2.09433333333 0" xyz="0.0411376736165 -0.0088 -0.0237474590099"/>
    <dynamics damping="0.0001"/>
  </joint>
  <!-- This block provides the simulator (Gazebo) with information on a few additional
        physical properties. See http://gazebosim.org/tutorials/?tut=ros_urdf for more-->
  <gazebo reference="right_front_right_for_roller">
    <mu1 value="2000.0"/>
    <mu2 value="1000.0"/>
    <kp value="10000000.0"/>
    <kd value="1.0"/>
    <material>Gazebo/Grey</material>
  </gazebo>
  <!-- This block connects the wheel joint to an actuator (motor), which informs both
        simulation and visualization of the robot -->
  <link name="right_front_right_fve_roller">
    <visual>
      <origin rpy="0 1.57075 0" xyz="0 0 0"/>
      <geometry>
        <cylinder length="0.015" radius="0.0055"/>
      </geometry>
      <material name="black"/>
    </visual>
    <collision>
      <origin rpy="0 1.57075 0" xyz="0 0 0"/>
      <geometry>
        <cylinder length="0.015" radius="0.0055"/>
      </geometry>
    </collision>
    <inertial>
      <mass value="0.001"/>
      <inertia ixx="0.00001" ixy="0.0" ixz="0.0" iyy="0.00001" iyz="0.0" izz="0.00001"/>
    </inertial>
  </link>
  <joint name="right_front_right_fve_roller_joint" type="continuous">
    <axis xyz="1 0 0"/>
    <parent link="right_front_wheel"/>
    <child link="right_front_right_fve_roller"/>
    <origin rpy="0 2.61791666667 0" xyz="0.0237531761102 -0.0088 -0.0411343727882"/>
    <dynamics damping="0.0001"/>
  </joint>
  <!-- This block provides the simulator (Gazebo) with information on a few additional
        physical properties. See http://gazebosim.org/tutorials/?tut=ros_urdf for more-->
  <gazebo reference="right_front_right_fve_roller">
    <mu1 value="2000.0"/>
    <mu2 value="1000.0"/>
    <kp value="10000000.0"/>
    <kd value="1.0"/>
    <material>Gazebo/Grey</material>
  </gazebo>
  <!-- This block connects the wheel joint to an actuator (motor), which informs both
        simulation and visualization of the robot -->
  <link name="right_front_right_six_roller">
    <visual>
      <origin rpy="0 1.57075 0" xyz="0 0 0"/>
      <geometry>
        <cylinder length="0.015" radius="0.0055"/>
      </geometry>
      <material name="black"/>
    </visual>
    <collision>
      <origin rpy="0 1.57075 0" xyz="0 0 0"/>
      <geometry>
        <cylinder length="0.015" radius="0.0055"/>
      </geometry>
    </collision>
    <inertial>
      <mass value="0.001"/>
      <inertia ixx="0.00001" ixy="0.0" ixz="0.0" iyy="0.00001" iyz="0.0" izz="0.00001"/>
    </inertial>
  </link>
  <joint name="right_front_right_six_roller_joint" type="continuous">
    <axis xyz="1 0 0"/>
    <parent link="right_front_wheel"/>
    <child link="right_front_right_six_roller"/>
    <origin rpy="0 3.1415 0" xyz="4.40104550887e-06 -0.0088 -0.0474999997961"/>
    <dynamics damping="0.0001"/>
  </joint>
  <!-- This block provides the simulator (Gazebo) with information on a few additional
        physical properties. See http://gazebosim.org/tutorials/?tut=ros_urdf for more-->
  <gazebo reference="right_front_right_six_roller">
    <mu1 value="2000.0"/>
    <mu2 value="1000.0"/>
    <kp value="10000000.0"/>
    <kd value="1.0"/>
    <material>Gazebo/Grey</material>
  </gazebo>
  <!-- This block connects the wheel joint to an actuator (motor), which informs both
        simulation and visualization of the robot -->
  <link name="right_front_right_svn_roller">
    <visual>
      <origin rpy="0 1.57075 0" xyz="0 0 0"/>
      <geometry>
        <cylinder length="0.015" radius="0.0055"/>
      </geometry>
      <material name="black"/>
    </visual>
    <collision>
      <origin rpy="0 1.57075 0" xyz="0 0 0"/>
      <geometry>
        <cylinder length="0.015" radius="0.0055"/>
      </geometry>
    </collision>
    <inertial>
      <mass value="0.001"/>
      <inertia ixx="0.00001" ixy="0.0" ixz="0.0" iyy="0.00001" iyz="0.0" izz="0.00001"/>
    </inertial>
  </link>
  <joint name="right_front_right_svn_roller_joint" type="continuous">
    <axis xyz="1 0 0"/>
    <parent link="right_front_wheel"/>
    <child link="right_front_right_svn_roller"/>
    <origin rpy="0 3.66508333333 0" xyz="-0.0237455532078 -0.0088 -0.041138773716"/>
    <dynamics damping="0.0001"/>
  </joint>
  <!-- This block provides the simulator (Gazebo) with information on a few additional
        physical properties. See http://gazebosim.org/tutorials/?tut=ros_urdf for more-->
  <gazebo reference="right_front_right_svn_roller">
    <mu1 value="2000.0"/>
    <mu2 value="1000.0"/>
    <kp value="10000000.0"/>
    <kd value="1.0"/>
    <material>Gazebo/Grey</material>
  </gazebo>
  <!-- This block connects the wheel joint to an actuator (motor), which informs both
        simulation and visualization of the robot -->
  <link name="right_front_right_ate_roller">
    <visual>
      <origin rpy="0 1.57075 0" xyz="0 0 0"/>
      <geometry>
        <cylinder length="0.015" radius="0.0055"/>
      </geometry>
      <material name="black"/>
    </visual>
    <collision>
      <origin rpy="0 1.57075 0" xyz="0 0 0"/>
      <geometry>
        <cylinder length="0.015" radius="0.0055"/>
      </geometry>
    </collision>
    <inertial>
      <mass value="0.001"/>
      <inertia ixx="0.00001" ixy="0.0" ixz="0.0" iyy="0.00001" iyz="0.0" izz="0.00001"/>
    </inertial>
  </link>
  <joint name="right_front_right_ate_roller_joint" type="continuous">
    <axis xyz="1 0 0"/>
    <parent link="right_front_wheel"/>
    <child link="right_front_right_ate_roller"/>
    <origin rpy="0 4.18866666667 0" xyz="-0.0411332723355 -0.0088 -0.0237550817084"/>
    <dynamics damping="0.0001"/>
  </joint>
  <!-- This block provides the simulator (Gazebo) with information on a few additional
        physical properties. See http://gazebosim.org/tutorials/?tut=ros_urdf for more-->
  <gazebo reference="right_front_right_ate_roller">
    <mu1 value="2000.0"/>
    <mu2 value="1000.0"/>
    <kp value="10000000.0"/>
    <kd value="1.0"/>
    <material>Gazebo/Grey</material>
  </gazebo>
  <!-- This block connects the wheel joint to an actuator (motor), which informs both
        simulation and visualization of the robot -->
  <link name="right_front_right_nne_roller">
    <visual>
      <origin rpy="0 1.57075 0" xyz="0 0 0"/>
      <geometry>
        <cylinder length="0.015" radius="0.0055"/>
      </geometry>
      <material name="black"/>
    </visual>
    <collision>
      <origin rpy="0 1.57075 0" xyz="0 0 0"/>
      <geometry>
        <cylinder length="0.015" radius="0.0055"/>
      </geometry>
    </collision>
    <inertial>
      <mass value="0.001"/>
      <inertia ixx="0.00001" ixy="0.0" ixz="0.0" iyy="0.00001" iyz="0.0" izz="0.00001"/>
    </inertial>
  </link>
  <joint name="right_front_right_nne_roller_joint" type="continuous">
    <axis xyz="1 0 0"/>
    <parent link="right_front_wheel"/>
    <child link="right_front_right_nne_roller"/>
    <origin rpy="0 4.71225 0" xyz="-0.0474999995413 -0.0088 -6.60156825151e-06"/>
    <dynamics damping="0.0001"/>
  </joint>
  <!-- This block provides the simulator (Gazebo) with information on a few additional
        physical properties. See http://gazebosim.org/tutorials/?tut=ros_urdf for more-->
  <gazebo reference="right_front_right_nne_roller">
    <mu1 value="2000.0"/>
    <mu2 value="1000.0"/>
    <kp value="10000000.0"/>
    <kd value="1.0"/>
    <material>Gazebo/Grey</material>
  </gazebo>
  <!-- This block connects the wheel joint to an actuator (motor), which informs both
        simulation and visualization of the robot -->
  <link name="right_front_right_ten_roller">
    <visual>
      <origin rpy="0 1.57075 0" xyz="0 0 0"/>
      <geometry>
        <cylinder length="0.015" radius="0.0055"/>
      </geometry>
      <material name="black"/>
    </visual>
    <collision>
      <origin rpy="0 1.57075 0" xyz="0 0 0"/>
      <geometry>
        <cylinder length="0.015" radius="0.0055"/>
      </geometry>
    </collision>
    <inertial>
      <mass value="0.001"/>
      <inertia ixx="0.00001" ixy="0.0" ixz="0.0" iyy="0.00001" iyz="0.0" izz="0.00001"/>
    </inertial>
  </link>
  <joint name="right_front_right_ten_roller_joint" type="continuous">
    <axis xyz="1 0 0"/>
    <parent link="right_front_wheel"/>
    <child link="right_front_right_ten_roller"/>
    <origin rpy="0 5.23583333333 0" xyz="-0.0411398737272 -0.0088 0.0237436473548"/>
    <dynamics damping="0.0001"/>
  </joint>
  <!-- This block provides the simulator (Gazebo) with information on a few additional
        physical properties. See http://gazebosim.org/tutorials/?tut=ros_urdf for more-->
  <gazebo reference="right_front_right_ten_roller">
    <mu1 value="2000.0"/>
    <mu2 value="1000.0"/>
    <kp value="10000000.0"/>
    <kd value="1.0"/>
    <material>Gazebo/Grey</material>
  </gazebo>
  <!-- This block connects the wheel joint to an actuator (motor), which informs both
        simulation and visualization of the robot -->
  <link name="right_front_right_lvn_roller">
    <visual>
      <origin rpy="0 1.57075 0" xyz="0 0 0"/>
      <geometry>
        <cylinder length="0.015" radius="0.0055"/>
      </geometry>
      <material name="black"/>
    </visual>
    <collision>
      <origin rpy="0 1.57075 0" xyz="0 0 0"/>
      <geometry>
        <cylinder length="0.015" radius="0.0055"/>
      </geometry>
    </collision>
    <inertial>
      <mass value="0.001"/>
      <inertia ixx="0.00001" ixy="0.0" ixz="0.0" iyy="0.00001" iyz="0.0" izz="0.00001"/>
    </inertial>
  </link>
  <joint name="right_front_right_lvn_roller_joint" type="continuous">
    <axis xyz="1 0 0"/>
    <parent link="right_front_wheel"/>
    <child link="right_front_right_lvn_roller"/>
    <origin rpy="0 5.75941666667 0" xyz="-0.0237569872556 -0.0088 0.0411321717946"/>
    <dynamics damping="0.0001"/>
  </joint>
  <!-- This block provides the simulator (Gazebo) with information on a few additional
        physical properties. See http://gazebosim.org/tutorials/?tut=ros_urdf for more-->
  <gazebo reference="right_front_right_lvn_roller">
    <mu1 value="2000.0"/>
    <mu2 value="1000.0"/>
    <kp value="10000000.0"/>
    <kd value="1.0"/>
    <material>Gazebo/Grey</material>
  </gazebo>
  <!-- This block connects the wheel joint to an actuator (motor), which informs both
        simulation and visualization of the robot -->
  <link name="right_front_right_wlv_roller">
    <visual>
      <origin rpy="0 1.57075 0" xyz="0 0 0"/>
      <geometry>
        <cylinder length="0.015" radius="0.0055"/>
      </geometry>
      <material name="black"/>
    </visual>
    <collision>
      <origin rpy="0 1.57075 0" xyz="0 0 0"/>
      <geometry>
        <cylinder length="0.015" radius="0.0055"/>
      </geometry>
    </collision>
    <inertial>
      <mass value="0.001"/>
      <inertia ixx="0.00001" ixy="0.0" ixz="0.0" iyy="0.00001" iyz="0.0" izz="0.00001"/>
    </inertial>
  </link>
  <joint name="right_front_right_wlv_roller_joint" type="continuous">
    <axis xyz="1 0 0"/>
    <parent link="right_front_wheel"/>
    <child link="right_front_right_wlv_roller"/>
    <origin rpy="0 6.283 0" xyz="-8.80209097996e-06 -0.0088 0.0474999991845"/>
    <dynamics damping="0.0001"/>
  </joint>
  <!-- This block provides the simulator (Gazebo) with information on a few additional
        physical properties. See http://gazebosim.org/tutorials/?tut=ros_urdf for more-->
  <gazebo reference="right_front_right_wlv_roller">
    <mu1 value="2000.0"/>
    <mu2 value="1000.0"/>
    <kp value="10000000.0"/>
    <kd value="1.0"/>
    <material>Gazebo/Grey</material>
  </gazebo>
  <!-- This block connects the wheel joint to an actuator (motor), which informs both
        simulation and visualization of the robot -->
  <link name="right_front_left_one_roller">
    <visual>
      <origin rpy="0 1.57075 0" xyz="0 0 0"/>
      <geometry>
        <cylinder length="0.015" radius="0.0055"/>
      </geometry>
      <material name="black"/>
    </visual>
    <collision>
      <origin rpy="0 1.57075 0" xyz="0 0 0"/>
      <geometry>
        <cylinder length="0.015" radius="0.0055"/>
      </geometry>
    </collision>
    <inertial>
      <mass value="0.001"/>
      <inertia ixx="0.00001" ixy="0.0" ixz="0.0" iyy="0.00001" iyz="0.0" izz="0.00001"/>
    </inertial>
  </link>
  <joint name="right_front_left_one_roller_joint" type="continuous">
    <axis xyz="1 0 0"/>
    <parent link="right_front_wheel"/>
    <child link="right_front_left_one_roller"/>
    <origin rpy="0 0.785375 0" xyz="0.0335867940951 0.0088 0.0335883500996"/>
    <dynamics damping="0.0001"/>
  </joint>
  <!-- This block provides the simulator (Gazebo) with information on a few additional
        physical properties. See http://gazebosim.org/tutorials/?tut=ros_urdf for more-->
  <gazebo reference="right_front_left_one_roller">
    <mu1 value="2000.0"/>
    <mu2 value="1000.0"/>
    <kp value="10000000.0"/>
    <kd value="1.0"/>
    <material>Gazebo/Grey</material>
  </gazebo>
  <!-- This block connects the wheel joint to an actuator (motor), which informs both
        simulation and visualization of the robot -->
  <link name="right_front_left_two_roller">
    <visual>
      <origin rpy="0 1.57075 0" xyz="0 0 0"/>
      <geometry>
        <cylinder length="0.015" radius="0.0055"/>
      </geometry>
      <material name="black"/>
    </visual>
    <collision>
      <origin rpy="0 1.57075 0" xyz="0 0 0"/>
      <geometry>
        <cylinder length="0.015" radius="0.0055"/>
      </geometry>
    </collision>
    <inertial>
      <mass value="0.001"/>
      <inertia ixx="0.00001" ixy="0.0" ixz="0.0" iyy="0.00001" iyz="0.0" izz="0.00001"/>
    </inertial>
  </link>
  <joint name="right_front_left_two_roller_joint" type="continuous">
    <axis xyz="1 0 0"/>
    <parent link="right_front_wheel"/>
    <child link="right_front_left_two_roller"/>
    <origin rpy="0 1.30895833333 0" xyz="0.0458810021002 0.0088 0.012295675918"/>
    <dynamics damping="0.0001"/>
  </joint>
  <!-- This block provides the simulator (Gazebo) with information on a few additional
        physical properties. See http://gazebosim.org/tutorials/?tut=ros_urdf for more-->
  <gazebo reference="right_front_left_two_roller">
    <mu1 value="2000.0"/>
    <mu2 value="1000.0"/>
    <kp value="10000000.0"/>
    <kd value="1.0"/>
    <material>Gazebo/Grey</material>
  </gazebo>
  <!-- This block connects the wheel joint to an actuator (motor), which informs both
        simulation and visualization of the robot -->
  <link name="right_front_left_thr_roller">
    <visual>
      <origin rpy="0 1.57075 0" xyz="0 0 0"/>
      <geometry>
        <cylinder length="0.015" radius="0.0055"/>
      </geometry>
      <material name="black"/>
    </visual>
    <collision>
      <origin rpy="0 1.57075 0" xyz="0 0 0"/>
      <geometry>
        <cylinder length="0.015" radius="0.0055"/>
      </geometry>
    </collision>
    <inertial>
      <mass value="0.001"/>
      <inertia ixx="0.00001" ixy="0.0" ixz="0.0" iyy="0.00001" iyz="0.0" izz="0.00001"/>
    </inertial>
  </link>
  <joint name="right_front_left_thr_roller_joint" type="continuous">
    <axis xyz="1 0 0"/>
    <parent link="right_front_wheel"/>
    <child link="right_front_left_thr_roller"/>
    <origin rpy="0 1.83254166667 0" xyz="0.0458821411418 0.0088 -0.0122914248257"/>
    <dynamics damping="0.0001"/>
  </joint>
  <!-- This block provides the simulator (Gazebo) with information on a few additional
        physical properties. See http://gazebosim.org/tutorials/?tut=ros_urdf for more-->
  <gazebo reference="right_front_left_thr_roller">
    <mu1 value="2000.0"/>
    <mu2 value="1000.0"/>
    <kp value="10000000.0"/>
    <kd value="1.0"/>
    <material>Gazebo/Grey</material>
  </gazebo>
  <!-- This block connects the wheel joint to an actuator (motor), which informs both
        simulation and visualization of the robot -->
  <link name="right_front_left_for_roller">
    <visual>
      <origin rpy="0 1.57075 0" xyz="0 0 0"/>
      <geometry>
        <cylinder length="0.015" radius="0.0055"/>
      </geometry>
      <material name="black"/>
    </visual>
    <collision>
      <origin rpy="0 1.57075 0" xyz="0 0 0"/>
      <geometry>
        <cylinder length="0.015" radius="0.0055"/>
      </geometry>
    </collision>
    <inertial>
      <mass value="0.001"/>
      <inertia ixx="0.00001" ixy="0.0" ixz="0.0" iyy="0.00001" iyz="0.0" izz="0.00001"/>
    </inertial>
  </link>
  <joint name="right_front_left_for_roller_joint" type="continuous">
    <axis xyz="1 0 0"/>
    <parent link="right_front_wheel"/>
    <child link="right_front_left_for_roller"/>
    <origin rpy="0 2.356125 0" xyz="0.0335899060321 0.0088 -0.0335852380184"/>
    <dynamics damping="0.0001"/>
  </joint>
  <!-- This block provides the simulator (Gazebo) with information on a few additional
        physical properties. See http://gazebosim.org/tutorials/?tut=ros_urdf for more-->
  <gazebo reference="right_front_left_for_roller">
    <mu1 value="2000.0"/>
    <mu2 value="1000.0"/>
    <kp value="10000000.0"/>
    <kd value="1.0"/>
    <material>Gazebo/Grey</material>
  </gazebo>
  <!-- This block connects the wheel joint to an actuator (motor), which informs both
        simulation and visualization of the robot -->
  <link name="right_front_left_fve_roller">
    <visual>
      <origin rpy="0 1.57075 0" xyz="0 0 0"/>
      <geometry>
        <cylinder length="0.015" radius="0.0055"/>
      </geometry>
      <material name="black"/>
    </visual>
    <collision>
      <origin rpy="0 1.57075 0" xyz="0 0 0"/>
      <geometry>
        <cylinder length="0.015" radius="0.0055"/>
      </geometry>
    </collision>
    <inertial>
      <mass value="0.001"/>
      <inertia ixx="0.00001" ixy="0.0" ixz="0.0" iyy="0.00001" iyz="0.0" izz="0.00001"/>
    </inertial>
  </link>
  <joint name="right_front_left_fve_roller_joint" type="continuous">
    <axis xyz="1 0 0"/>
    <parent link="right_front_wheel"/>
    <child link="right_front_left_fve_roller"/>
    <origin rpy="0 2.87970833333 0" xyz="0.0122978014246 0.0088 -0.0458804324317"/>
    <dynamics damping="0.0001"/>
  </joint>
  <!-- This block provides the simulator (Gazebo) with information on a few additional
        physical properties. See http://gazebosim.org/tutorials/?tut=ros_urdf for more-->
  <gazebo reference="right_front_left_fve_roller">
    <mu1 value="2000.0"/>
    <mu2 value="1000.0"/>
    <kp value="10000000.0"/>
    <kd value="1.0"/>
    <material>Gazebo/Grey</material>
  </gazebo>
  <!-- This block connects the wheel joint to an actuator (motor), which informs both
        simulation and visualization of the robot -->
  <link name="right_front_left_six_roller">
    <visual>
      <origin rpy="0 1.57075 0" xyz="0 0 0"/>
      <geometry>
        <cylinder length="0.015" radius="0.0055"/>
      </geometry>
      <material name="black"/>
    </visual>
    <collision>
      <origin rpy="0 1.57075 0" xyz="0 0 0"/>
      <geometry>
        <cylinder length="0.015" radius="0.0055"/>
      </geometry>
    </collision>
    <inertial>
      <mass value="0.001"/>
      <inertia ixx="0.00001" ixy="0.0" ixz="0.0" iyy="0.00001" iyz="0.0" izz="0.00001"/>
    </inertial>
  </link>
  <joint name="right_front_left_six_roller_joint" type="continuous">
    <axis xyz="1 0 0"/>
    <parent link="right_front_wheel"/>
    <child link="right_front_left_six_roller"/>
    <origin rpy="0 3.40329166667 0" xyz="-0.01228929924 0.0088 -0.0458827105149"/>
    <dynamics damping="0.0001"/>
  </joint>
  <!-- This block provides the simulator (Gazebo) with information on a few additional
        physical properties. See http://gazebosim.org/tutorials/?tut=ros_urdf for more-->
  <gazebo reference="right_front_left_six_roller">
    <mu1 value="2000.0"/>
    <mu2 value="1000.0"/>
    <kp value="10000000.0"/>
    <kd value="1.0"/>
    <material>Gazebo/Grey</material>
  </gazebo>
  <!-- This block connects the wheel joint to an actuator (motor), which informs both
        simulation and visualization of the robot -->
  <link name="right_front_left_svn_roller">
    <visual>
      <origin rpy="0 1.57075 0" xyz="0 0 0"/>
      <geometry>
        <cylinder length="0.015" radius="0.0055"/>
      </geometry>
      <material name="black"/>
    </visual>
    <collision>
      <origin rpy="0 1.57075 0" xyz="0 0 0"/>
      <geometry>
        <cylinder length="0.015" radius="0.0055"/>
      </geometry>
    </collision>
    <inertial>
      <mass value="0.001"/>
      <inertia ixx="0.00001" ixy="0.0" ixz="0.0" iyy="0.00001" iyz="0.0" izz="0.00001"/>
    </inertial>
  </link>
  <joint name="right_front_left_svn_roller_joint" type="continuous">
    <axis xyz="1 0 0"/>
    <parent link="right_front_wheel"/>
    <child link="right_front_left_svn_roller"/>
    <origin rpy="0 3.926875 0" xyz="-0.0335836818697 0.0088 -0.0335914618925"/>
    <dynamics damping="0.0001"/>
  </joint>
  <!-- This block provides the simulator (Gazebo) with information on a few additional
        physical properties. See http://gazebosim.org/tutorials/?tut=ros_urdf for more-->
  <gazebo reference="right_front_left_svn_roller">
    <mu1 value="2000.0"/>
    <mu2 value="1000.0"/>
    <kp value="10000000.0"/>
    <kd value="1.0"/>
    <material>Gazebo/Grey</material>
  </gazebo>
  <!-- This block connects the wheel joint to an actuator (motor), which informs both
        simulation and visualization of the robot -->
  <link name="right_front_left_ate_roller">
    <visual>
      <origin rpy="0 1.57075 0" xyz="0 0 0"/>
      <geometry>
        <cylinder length="0.015" radius="0.0055"/>
      </geometry>
      <material name="black"/>
    </visual>
    <collision>
      <origin rpy="0 1.57075 0" xyz="0 0 0"/>
      <geometry>
        <cylinder length="0.015" radius="0.0055"/>
      </geometry>
    </collision>
    <inertial>
      <mass value="0.001"/>
      <inertia ixx="0.00001" ixy="0.0" ixz="0.0" iyy="0.00001" iyz="0.0" izz="0.00001"/>
    </inertial>
  </link>
  <joint name="right_front_left_ate_roller_joint" type="continuous">
    <axis xyz="1 0 0"/>
    <parent link="right_front_wheel"/>
    <child link="right_front_left_ate_roller"/>
    <origin rpy="0 4.45045833333 0" xyz="-0.0458798626648 0.0088 -0.0122999269048"/>
    <dynamics damping="0.0001"/>
  </joint>
  <!-- This block provides the simulator (Gazebo) with information on a few additional
        physical properties. See http://gazebosim.org/tutorials/?tut=ros_urdf for more-->
  <gazebo reference="right_front_left_ate_roller">
    <mu1 value="2000.0"/>
    <mu2 value="1000.0"/>
    <kp value="10000000.0"/>
    <kd value="1.0"/>
    <material>Gazebo/Grey</material>
  </gazebo>
  <!-- This block connects the wheel joint to an actuator (motor), which informs both
        simulation and visualization of the robot -->
  <link name="right_front_left_nne_roller">
    <visual>
      <origin rpy="0 1.57075 0" xyz="0 0 0"/>
      <geometry>
        <cylinder length="0.015" radius="0.0055"/>
      </geometry>
      <material name="black"/>
    </visual>
    <collision>
      <origin rpy="0 1.57075 0" xyz="0 0 0"/>
      <geometry>
        <cylinder length="0.015" radius="0.0055"/>
      </geometry>
    </collision>
    <inertial>
      <mass value="0.001"/>
      <inertia ixx="0.00001" ixy="0.0" ixz="0.0" iyy="0.00001" iyz="0.0" izz="0.00001"/>
    </inertial>
  </link>
  <joint name="right_front_left_nne_roller_joint" type="continuous">
    <axis xyz="1 0 0"/>
    <parent link="right_front_wheel"/>
    <child link="right_front_left_nne_roller"/>
    <origin rpy="0 4.97404166667 0" xyz="-0.0458832797895 0.0088 0.0122871736279"/>
    <dynamics damping="0.0001"/>
  </joint>
  <!-- This block provides the simulator (Gazebo) with information on a few additional
        physical properties. See http://gazebosim.org/tutorials/?tut=ros_urdf for more-->
  <gazebo reference="right_front_left_nne_roller">
    <mu1 value="2000.0"/>
    <mu2 value="1000.0"/>
    <kp value="10000000.0"/>
    <kd value="1.0"/>
    <material>Gazebo/Grey</material>
  </gazebo>
  <!-- This block connects the wheel joint to an actuator (motor), which informs both
        simulation and visualization of the robot -->
  <link name="right_front_left_ten_roller">
    <visual>
      <origin rpy="0 1.57075 0" xyz="0 0 0"/>
      <geometry>
        <cylinder length="0.015" radius="0.0055"/>
      </geometry>
      <material name="black"/>
    </visual>
    <collision>
      <origin rpy="0 1.57075 0" xyz="0 0 0"/>
      <geometry>
        <cylinder length="0.015" radius="0.0055"/>
      </geometry>
    </collision>
    <inertial>
      <mass value="0.001"/>
      <inertia ixx="0.00001" ixy="0.0" ixz="0.0" iyy="0.00001" iyz="0.0" izz="0.00001"/>
    </inertial>
  </link>
  <joint name="right_front_left_ten_roller_joint" type="continuous">
    <axis xyz="1 0 0"/>
    <parent link="right_front_wheel"/>
    <child link="right_front_left_ten_roller"/>
    <origin rpy="0 5.497625 0" xyz="-0.0335930176808 0.0088 0.0335821256489"/>
    <dynamics damping="0.0001"/>
  </joint>
  <!-- This block provides the simulator (Gazebo) with information on a few additional
        physical properties. See http://gazebosim.org/tutorials/?tut=ros_urdf for more-->
  <gazebo reference="right_front_left_ten_roller">
    <mu1 value="2000.0"/>
    <mu2 value="1000.0"/>
    <kp value="10000000.0"/>
    <kd value="1.0"/>
    <material>Gazebo/Grey</material>
  </gazebo>
  <!-- This block connects the wheel joint to an actuator (motor), which informs both
        simulation and visualization of the robot -->
  <link name="right_front_left_lvn_roller">
    <visual>
      <origin rpy="0 1.57075 0" xyz="0 0 0"/>
      <geometry>
        <cylinder length="0.015" radius="0.0055"/>
      </geometry>
      <material name="black"/>
    </visual>
    <collision>
      <origin rpy="0 1.57075 0" xyz="0 0 0"/>
      <geometry>
        <cylinder length="0.015" radius="0.0055"/>
      </geometry>
    </collision>
    <inertial>
      <mass value="0.001"/>
      <inertia ixx="0.00001" ixy="0.0" ixz="0.0" iyy="0.00001" iyz="0.0" izz="0.00001"/>
    </inertial>
  </link>
  <joint name="right_front_left_lvn_roller_joint" type="continuous">
    <axis xyz="1 0 0"/>
    <parent link="right_front_wheel"/>
    <child link="right_front_left_lvn_roller"/>
    <origin rpy="0 6.02120833333 0" xyz="-0.0123020523586 0.0088 0.0458792927993"/>
    <dynamics damping="0.0001"/>
  </joint>
  <!-- This block provides the simulator (Gazebo) with information on a few additional
        physical properties. See http://gazebosim.org/tutorials/?tut=ros_urdf for more-->
  <gazebo reference="right_front_left_lvn_roller">
    <mu1 value="2000.0"/>
    <mu2 value="1000.0"/>
    <kp value="10000000.0"/>
    <kd value="1.0"/>
    <material>Gazebo/Grey</material>
  </gazebo>
  <!-- This block connects the wheel joint to an actuator (motor), which informs both
        simulation and visualization of the robot -->
  <link name="right_front_left_wlv_roller">
    <visual>
      <origin rpy="0 1.57075 0" xyz="0 0 0"/>
      <geometry>
        <cylinder length="0.015" radius="0.0055"/>
      </geometry>
      <material name="black"/>
    </visual>
    <collision>
      <origin rpy="0 1.57075 0" xyz="0 0 0"/>
      <geometry>
        <cylinder length="0.015" radius="0.0055"/>
      </geometry>
    </collision>
    <inertial>
      <mass value="0.001"/>
      <inertia ixx="0.00001" ixy="0.0" ixz="0.0" iyy="0.00001" iyz="0.0" izz="0.00001"/>
    </inertial>
  </link>
  <joint name="right_front_left_wlv_roller_joint" type="continuous">
    <axis xyz="1 0 0"/>
    <parent link="right_front_wheel"/>
    <child link="right_front_left_wlv_roller"/>
    <origin rpy="0 6.54479166667 0" xyz="0.0122850479894 0.0088 0.0458838489656"/>
    <dynamics damping="0.0001"/>
  </joint>
  <!-- This block provides the simulator (Gazebo) with information on a few additional
        physical properties. See http://gazebosim.org/tutorials/?tut=ros_urdf for more-->
  <gazebo reference="right_front_left_wlv_roller">
    <mu1 value="2000.0"/>
    <mu2 value="1000.0"/>
    <kp value="10000000.0"/>
    <kd value="1.0"/>
    <material>Gazebo/Grey</material>
  </gazebo>
  <!-- This block connects the wheel joint to an actuator (motor), which informs both
        simulation and visualization of the robot -->
  <link name="right_back_wheel">
    <visual>
      <origin rpy="1.57075 0 0" xyz="0 0 0"/>
      <geometry>
        <cylinder length="0.025" radius="0.041"/>
      </geometry>
      <material name="black"/>
    </visual>
    <collision>
      <origin rpy="1.57075 0 0" xyz="0 0 0"/>
      <geometry>
        <cylinder length="0.025" radius="0.041"/>
      </geometry>
    </collision>
    <inertial>
      <mass value="0.001"/>
      <inertia ixx="0.00001" ixy="0.0" ixz="0.0" iyy="0.00001" iyz="0.0" izz="0.00001"/>
    </inertial>
  </link>
  <joint name="right_back_wheel_joint" type="continuous">
    <axis xyz="0 1 0"/>
    <parent link="chassis_link"/>
    <child link="right_back_wheel"/>
    <origin rpy="0 0 0" xyz="-0.133333333333 -0.1 -.05"/>
  </joint>
  <!-- This block provides the simulator (Gazebo) with information on a few additional
        physical properties. See http://gazebosim.org/tutorials/?tut=ros_urdf for more-->
  <gazebo reference="right_back_wheel">
    <mu1 value="200.0"/>
    <mu2 value="100.0"/>
    <kp value="10000000.0"/>
    <kd value="1.0"/>
    <material>Gazebo/Green</material>
  </gazebo>
  <!-- This block connects the wheel joint to an actuator (motor), which informs both
        simulation and visualization of the robot -->
  <transmission name="right_back_wheel_trans">
    <type>transmission_interface/SimpleTransmission</type>
    <actuator name="right_back_wheel_motor">
      <mechanicalReduction>1</mechanicalReduction>
    </actuator>
    <joint name="right_back_wheel_joint">
      <hardwareInterface>VelocityJointInterface</hardwareInterface>
    </joint>
  </transmission>
  <link name="right_back_right_one_roller">
    <visual>
      <origin rpy="0 1.57075 0" xyz="0 0 0"/>
      <geometry>
        <cylinder length="0.015" radius="0.0055"/>
      </geometry>
      <material name="black"/>
    </visual>
    <collision>
      <origin rpy="0 1.57075 0" xyz="0 0 0"/>
      <geometry>
        <cylinder length="0.015" radius="0.0055"/>
      </geometry>
    </collision>
    <inertial>
      <mass value="0.001"/>
      <inertia ixx="0.00001" ixy="0.0" ixz="0.0" iyy="0.00001" iyz="0.0" izz="0.00001"/>
    </inertial>
  </link>
  <joint name="right_back_right_one_roller_joint" type="continuous">
    <axis xyz="1 0 0"/>
    <parent link="right_back_wheel"/>
    <child link="right_back_right_one_roller"/>
    <origin rpy="0 0.523583333333 0" xyz="0.023749364761 -0.0088 0.0411365734286"/>
    <dynamics damping="0.0001"/>
  </joint>
  <!-- This block provides the simulator (Gazebo) with information on a few additional
        physical properties. See http://gazebosim.org/tutorials/?tut=ros_urdf for more-->
  <gazebo reference="right_back_right_one_roller">
    <mu1 value="2000.0"/>
    <mu2 value="1000.0"/>
    <kp value="10000000.0"/>
    <kd value="1.0"/>
    <material>Gazebo/Grey</material>
  </gazebo>
  <!-- This block connects the wheel joint to an actuator (motor), which informs both
        simulation and visualization of the robot -->
  <link name="right_back_right_two_roller">
    <visual>
      <origin rpy="0 1.57075 0" xyz="0 0 0"/>
      <geometry>
        <cylinder length="0.015" radius="0.0055"/>
      </geometry>
      <material name="black"/>
    </visual>
    <collision>
      <origin rpy="0 1.57075 0" xyz="0 0 0"/>
      <geometry>
        <cylinder length="0.015" radius="0.0055"/>
      </geometry>
    </collision>
    <inertial>
      <mass value="0.001"/>
      <inertia ixx="0.00001" ixy="0.0" ixz="0.0" iyy="0.00001" iyz="0.0" izz="0.00001"/>
    </inertial>
  </link>
  <joint name="right_back_right_two_roller_joint" type="continuous">
    <axis xyz="1 0 0"/>
    <parent link="right_back_wheel"/>
    <child link="right_back_right_two_roller"/>
    <origin rpy="0 1.04716666667 0" xyz="0.0411354731526 -0.0088 0.0237512704611"/>
    <dynamics damping="0.0001"/>
  </joint>
  <!-- This block provides the simulator (Gazebo) with information on a few additional
        physical properties. See http://gazebosim.org/tutorials/?tut=ros_urdf for more-->
  <gazebo reference="right_back_right_two_roller">
    <mu1 value="2000.0"/>
    <mu2 value="1000.0"/>
    <kp value="10000000.0"/>
    <kd value="1.0"/>
    <material>Gazebo/Grey</material>
  </gazebo>
  <!-- This block connects the wheel joint to an actuator (motor), which informs both
        simulation and visualization of the robot -->
  <link name="right_back_right_thr_roller">
    <visual>
      <origin rpy="0 1.57075 0" xyz="0 0 0"/>
      <geometry>
        <cylinder length="0.015" radius="0.0055"/>
      </geometry>
      <material name="black"/>
    </visual>
    <collision>
      <origin rpy="0 1.57075 0" xyz="0 0 0"/>
      <geometry>
        <cylinder length="0.015" radius="0.0055"/>
      </geometry>
    </collision>
    <inertial>
      <mass value="0.001"/>
      <inertia ixx="0.00001" ixy="0.0" ixz="0.0" iyy="0.00001" iyz="0.0" izz="0.00001"/>
    </inertial>
  </link>
  <joint name="right_back_right_thr_roller_joint" type="continuous">
    <axis xyz="1 0 0"/>
    <parent link="right_back_wheel"/>
    <child link="right_back_right_thr_roller"/>
    <origin rpy="0 1.57075 0" xyz="0.047499999949 -0.0088 2.2005227568e-06"/>
    <dynamics damping="0.0001"/>
  </joint>
  <!-- This block provides the simulator (Gazebo) with information on a few additional
        physical properties. See http://gazebosim.org/tutorials/?tut=ros_urdf for more-->
  <gazebo reference="right_back_right_thr_roller">
    <mu1 value="2000.0"/>
    <mu2 value="1000.0"/>
    <kp value="10000000.0"/>
    <kd value="1.0"/>
    <material>Gazebo/Grey</material>
  </gazebo>
  <!-- This block connects the wheel joint to an actuator (motor), which informs both
        simulation and visualization of the robot -->
  <link name="right_back_right_for_roller">
    <visual>
      <origin rpy="0 1.57075 0" xyz="0 0 0"/>
      <geometry>
        <cylinder length="0.015" radius="0.0055"/>
      </geometry>
      <material name="black"/>
    </visual>
    <collision>
      <origin rpy="0 1.57075 0" xyz="0 0 0"/>
      <geometry>
        <cylinder length="0.015" radius="0.0055"/>
      </geometry>
    </collision>
    <inertial>
      <mass value="0.001"/>
      <inertia ixx="0.00001" ixy="0.0" ixz="0.0" iyy="0.00001" iyz="0.0" izz="0.00001"/>
    </inertial>
  </link>
  <joint name="right_back_right_for_roller_joint" type="continuous">
    <axis xyz="1 0 0"/>
    <parent link="right_back_wheel"/>
    <child link="right_back_right_for_roller"/>
    <origin rpy="0 2.09433333333 0" xyz="0.0411376736165 -0.0088 -0.0237474590099"/>
    <dynamics damping="0.0001"/>
  </joint>
  <!-- This block provides the simulator (Gazebo) with information on a few additional
        physical properties. See http://gazebosim.org/tutorials/?tut=ros_urdf for more-->
  <gazebo reference="right_back_right_for_roller">
    <mu1 value="2000.0"/>
    <mu2 value="1000.0"/>
    <kp value="10000000.0"/>
    <kd value="1.0"/>
    <material>Gazebo/Grey</material>
  </gazebo>
  <!-- This block connects the wheel joint to an actuator (motor), which informs both
        simulation and visualization of the robot -->
  <link name="right_back_right_fve_roller">
    <visual>
      <origin rpy="0 1.57075 0" xyz="0 0 0"/>
      <geometry>
        <cylinder length="0.015" radius="0.0055"/>
      </geometry>
      <material name="black"/>
    </visual>
    <collision>
      <origin rpy="0 1.57075 0" xyz="0 0 0"/>
      <geometry>
        <cylinder length="0.015" radius="0.0055"/>
      </geometry>
    </collision>
    <inertial>
      <mass value="0.001"/>
      <inertia ixx="0.00001" ixy="0.0" ixz="0.0" iyy="0.00001" iyz="0.0" izz="0.00001"/>
    </inertial>
  </link>
  <joint name="right_back_right_fve_roller_joint" type="continuous">
    <axis xyz="1 0 0"/>
    <parent link="right_back_wheel"/>
    <child link="right_back_right_fve_roller"/>
    <origin rpy="0 2.61791666667 0" xyz="0.0237531761102 -0.0088 -0.0411343727882"/>
    <dynamics damping="0.0001"/>
  </joint>
  <!-- This block provides the simulator (Gazebo) with information on a few additional
        physical properties. See http://gazebosim.org/tutorials/?tut=ros_urdf for more-->
  <gazebo reference="right_back_right_fve_roller">
    <mu1 value="2000.0"/>
    <mu2 value="1000.0"/>
    <kp value="10000000.0"/>
    <kd value="1.0"/>
    <material>Gazebo/Grey</material>
  </gazebo>
  <!-- This block connects the wheel joint to an actuator (motor), which informs both
        simulation and visualization of the robot -->
  <link name="right_back_right_six_roller">
    <visual>
      <origin rpy="0 1.57075 0" xyz="0 0 0"/>
      <geometry>
        <cylinder length="0.015" radius="0.0055"/>
      </geometry>
      <material name="black"/>
    </visual>
    <collision>
      <origin rpy="0 1.57075 0" xyz="0 0 0"/>
      <geometry>
        <cylinder length="0.015" radius="0.0055"/>
      </geometry>
    </collision>
    <inertial>
      <mass value="0.001"/>
      <inertia ixx="0.00001" ixy="0.0" ixz="0.0" iyy="0.00001" iyz="0.0" izz="0.00001"/>
    </inertial>
  </link>
  <joint name="right_back_right_six_roller_joint" type="continuous">
    <axis xyz="1 0 0"/>
    <parent link="right_back_wheel"/>
    <child link="right_back_right_six_roller"/>
    <origin rpy="0 3.1415 0" xyz="4.40104550887e-06 -0.0088 -0.0474999997961"/>
    <dynamics damping="0.0001"/>
  </joint>
  <!-- This block provides the simulator (Gazebo) with information on a few additional
        physical properties. See http://gazebosim.org/tutorials/?tut=ros_urdf for more-->
  <gazebo reference="right_back_right_six_roller">
    <mu1 value="2000.0"/>
    <mu2 value="1000.0"/>
    <kp value="10000000.0"/>
    <kd value="1.0"/>
    <material>Gazebo/Grey</material>
  </gazebo>
  <!-- This block connects the wheel joint to an actuator (motor), which informs both
        simulation and visualization of the robot -->
  <link name="right_back_right_svn_roller">
    <visual>
      <origin rpy="0 1.57075 0" xyz="0 0 0"/>
      <geometry>
        <cylinder length="0.015" radius="0.0055"/>
      </geometry>
      <material name="black"/>
    </visual>
    <collision>
      <origin rpy="0 1.57075 0" xyz="0 0 0"/>
      <geometry>
        <cylinder length="0.015" radius="0.0055"/>
      </geometry>
    </collision>
    <inertial>
      <mass value="0.001"/>
      <inertia ixx="0.00001" ixy="0.0" ixz="0.0" iyy="0.00001" iyz="0.0" izz="0.00001"/>
    </inertial>
  </link>
  <joint name="right_back_right_svn_roller_joint" type="continuous">
    <axis xyz="1 0 0"/>
    <parent link="right_back_wheel"/>
    <child link="right_back_right_svn_roller"/>
    <origin rpy="0 3.66508333333 0" xyz="-0.0237455532078 -0.0088 -0.041138773716"/>
    <dynamics damping="0.0001"/>
  </joint>
  <!-- This block provides the simulator (Gazebo) with information on a few additional
        physical properties. See http://gazebosim.org/tutorials/?tut=ros_urdf for more-->
  <gazebo reference="right_back_right_svn_roller">
    <mu1 value="2000.0"/>
    <mu2 value="1000.0"/>
    <kp value="10000000.0"/>
    <kd value="1.0"/>
    <material>Gazebo/Grey</material>
  </gazebo>
  <!-- This block connects the wheel joint to an actuator (motor), which informs both
        simulation and visualization of the robot -->
  <link name="right_back_right_ate_roller">
    <visual>
      <origin rpy="0 1.57075 0" xyz="0 0 0"/>
      <geometry>
        <cylinder length="0.015" radius="0.0055"/>
      </geometry>
      <material name="black"/>
    </visual>
    <collision>
      <origin rpy="0 1.57075 0" xyz="0 0 0"/>
      <geometry>
        <cylinder length="0.015" radius="0.0055"/>
      </geometry>
    </collision>
    <inertial>
      <mass value="0.001"/>
      <inertia ixx="0.00001" ixy="0.0" ixz="0.0" iyy="0.00001" iyz="0.0" izz="0.00001"/>
    </inertial>
  </link>
  <joint name="right_back_right_ate_roller_joint" type="continuous">
    <axis xyz="1 0 0"/>
    <parent link="right_back_wheel"/>
    <child link="right_back_right_ate_roller"/>
    <origin rpy="0 4.18866666667 0" xyz="-0.0411332723355 -0.0088 -0.0237550817084"/>
    <dynamics damping="0.0001"/>
  </joint>
  <!-- This block provides the simulator (Gazebo) with information on a few additional
        physical properties. See http://gazebosim.org/tutorials/?tut=ros_urdf for more-->
  <gazebo reference="right_back_right_ate_roller">
    <mu1 value="2000.0"/>
    <mu2 value="1000.0"/>
    <kp value="10000000.0"/>
    <kd value="1.0"/>
    <material>Gazebo/Grey</material>
  </gazebo>
  <!-- This block connects the wheel joint to an actuator (motor), which informs both
        simulation and visualization of the robot -->
  <link name="right_back_right_nne_roller">
    <visual>
      <origin rpy="0 1.57075 0" xyz="0 0 0"/>
      <geometry>
        <cylinder length="0.015" radius="0.0055"/>
      </geometry>
      <material name="black"/>
    </visual>
    <collision>
      <origin rpy="0 1.57075 0" xyz="0 0 0"/>
      <geometry>
        <cylinder length="0.015" radius="0.0055"/>
      </geometry>
    </collision>
    <inertial>
      <mass value="0.001"/>
      <inertia ixx="0.00001" ixy="0.0" ixz="0.0" iyy="0.00001" iyz="0.0" izz="0.00001"/>
    </inertial>
  </link>
  <joint name="right_back_right_nne_roller_joint" type="continuous">
    <axis xyz="1 0 0"/>
    <parent link="right_back_wheel"/>
    <child link="right_back_right_nne_roller"/>
    <origin rpy="0 4.71225 0" xyz="-0.0474999995413 -0.0088 -6.60156825151e-06"/>
    <dynamics damping="0.0001"/>
  </joint>
  <!-- This block provides the simulator (Gazebo) with information on a few additional
        physical properties. See http://gazebosim.org/tutorials/?tut=ros_urdf for more-->
  <gazebo reference="right_back_right_nne_roller">
    <mu1 value="2000.0"/>
    <mu2 value="1000.0"/>
    <kp value="10000000.0"/>
    <kd value="1.0"/>
    <material>Gazebo/Grey</material>
  </gazebo>
  <!-- This block connects the wheel joint to an actuator (motor), which informs both
        simulation and visualization of the robot -->
  <link name="right_back_right_ten_roller">
    <visual>
      <origin rpy="0 1.57075 0" xyz="0 0 0"/>
      <geometry>
        <cylinder length="0.015" radius="0.0055"/>
      </geometry>
      <material name="black"/>
    </visual>
    <collision>
      <origin rpy="0 1.57075 0" xyz="0 0 0"/>
      <geometry>
        <cylinder length="0.015" radius="0.0055"/>
      </geometry>
    </collision>
    <inertial>
      <mass value="0.001"/>
      <inertia ixx="0.00001" ixy="0.0" ixz="0.0" iyy="0.00001" iyz="0.0" izz="0.00001"/>
    </inertial>
  </link>
  <joint name="right_back_right_ten_roller_joint" type="continuous">
    <axis xyz="1 0 0"/>
    <parent link="right_back_wheel"/>
    <child link="right_back_right_ten_roller"/>
    <origin rpy="0 5.23583333333 0" xyz="-0.0411398737272 -0.0088 0.0237436473548"/>
    <dynamics damping="0.0001"/>
  </joint>
  <!-- This block provides the simulator (Gazebo) with information on a few additional
        physical properties. See http://gazebosim.org/tutorials/?tut=ros_urdf for more-->
  <gazebo reference="right_back_right_ten_roller">
    <mu1 value="2000.0"/>
    <mu2 value="1000.0"/>
    <kp value="10000000.0"/>
    <kd value="1.0"/>
    <material>Gazebo/Grey</material>
  </gazebo>
  <!-- This block connects the wheel joint to an actuator (motor), which informs both
        simulation and visualization of the robot -->
  <link name="right_back_right_lvn_roller">
    <visual>
      <origin rpy="0 1.57075 0" xyz="0 0 0"/>
      <geometry>
        <cylinder length="0.015" radius="0.0055"/>
      </geometry>
      <material name="black"/>
    </visual>
    <collision>
      <origin rpy="0 1.57075 0" xyz="0 0 0"/>
      <geometry>
        <cylinder length="0.015" radius="0.0055"/>
      </geometry>
    </collision>
    <inertial>
      <mass value="0.001"/>
      <inertia ixx="0.00001" ixy="0.0" ixz="0.0" iyy="0.00001" iyz="0.0" izz="0.00001"/>
    </inertial>
  </link>
  <joint name="right_back_right_lvn_roller_joint" type="continuous">
    <axis xyz="1 0 0"/>
    <parent link="right_back_wheel"/>
    <child link="right_back_right_lvn_roller"/>
    <origin rpy="0 5.75941666667 0" xyz="-0.0237569872556 -0.0088 0.0411321717946"/>
    <dynamics damping="0.0001"/>
  </joint>
  <!-- This block provides the simulator (Gazebo) with information on a few additional
        physical properties. See http://gazebosim.org/tutorials/?tut=ros_urdf for more-->
  <gazebo reference="right_back_right_lvn_roller">
    <mu1 value="2000.0"/>
    <mu2 value="1000.0"/>
    <kp value="10000000.0"/>
    <kd value="1.0"/>
    <material>Gazebo/Grey</material>
  </gazebo>
  <!-- This block connects the wheel joint to an actuator (motor), which informs both
        simulation and visualization of the robot -->
  <link name="right_back_right_wlv_roller">
    <visual>
      <origin rpy="0 1.57075 0" xyz="0 0 0"/>
      <geometry>
        <cylinder length="0.015" radius="0.0055"/>
      </geometry>
      <material name="black"/>
    </visual>
    <collision>
      <origin rpy="0 1.57075 0" xyz="0 0 0"/>
      <geometry>
        <cylinder length="0.015" radius="0.0055"/>
      </geometry>
    </collision>
    <inertial>
      <mass value="0.001"/>
      <inertia ixx="0.00001" ixy="0.0" ixz="0.0" iyy="0.00001" iyz="0.0" izz="0.00001"/>
    </inertial>
  </link>
  <joint name="right_back_right_wlv_roller_joint" type="continuous">
    <axis xyz="1 0 0"/>
    <parent link="right_back_wheel"/>
    <child link="right_back_right_wlv_roller"/>
    <origin rpy="0 6.283 0" xyz="-8.80209097996e-06 -0.0088 0.0474999991845"/>
    <dynamics damping="0.0001"/>
  </joint>
  <!-- This block provides the simulator (Gazebo) with information on a few additional
        physical properties. See http://gazebosim.org/tutorials/?tut=ros_urdf for more-->
  <gazebo reference="right_back_right_wlv_roller">
    <mu1 value="2000.0"/>
    <mu2 value="1000.0"/>
    <kp value="10000000.0"/>
    <kd value="1.0"/>
    <material>Gazebo/Grey</material>
  </gazebo>
  <!-- This block connects the wheel joint to an actuator (motor), which informs both
        simulation and visualization of the robot -->
  <link name="right_back_left_one_roller">
    <visual>
      <origin rpy="0 1.57075 0" xyz="0 0 0"/>
      <geometry>
        <cylinder length="0.015" radius="0.0055"/>
      </geometry>
      <material name="black"/>
    </visual>
    <collision>
      <origin rpy="0 1.57075 0" xyz="0 0 0"/>
      <geometry>
        <cylinder length="0.015" radius="0.0055"/>
      </geometry>
    </collision>
    <inertial>
      <mass value="0.001"/>
      <inertia ixx="0.00001" ixy="0.0" ixz="0.0" iyy="0.00001" iyz="0.0" izz="0.00001"/>
    </inertial>
  </link>
  <joint name="right_back_left_one_roller_joint" type="continuous">
    <axis xyz="1 0 0"/>
    <parent link="right_back_wheel"/>
    <child link="right_back_left_one_roller"/>
    <origin rpy="0 0.785375 0" xyz="0.0335867940951 0.0088 0.0335883500996"/>
    <dynamics damping="0.0001"/>
  </joint>
  <!-- This block provides the simulator (Gazebo) with information on a few additional
        physical properties. See http://gazebosim.org/tutorials/?tut=ros_urdf for more-->
  <gazebo reference="right_back_left_one_roller">
    <mu1 value="2000.0"/>
    <mu2 value="1000.0"/>
    <kp value="10000000.0"/>
    <kd value="1.0"/>
    <material>Gazebo/Grey</material>
  </gazebo>
  <!-- This block connects the wheel joint to an actuator (motor), which informs both
        simulation and visualization of the robot -->
  <link name="right_back_left_two_roller">
    <visual>
      <origin rpy="0 1.57075 0" xyz="0 0 0"/>
      <geometry>
        <cylinder length="0.015" radius="0.0055"/>
      </geometry>
      <material name="black"/>
    </visual>
    <collision>
      <origin rpy="0 1.57075 0" xyz="0 0 0"/>
      <geometry>
        <cylinder length="0.015" radius="0.0055"/>
      </geometry>
    </collision>
    <inertial>
      <mass value="0.001"/>
      <inertia ixx="0.00001" ixy="0.0" ixz="0.0" iyy="0.00001" iyz="0.0" izz="0.00001"/>
    </inertial>
  </link>
  <joint name="right_back_left_two_roller_joint" type="continuous">
    <axis xyz="1 0 0"/>
    <parent link="right_back_wheel"/>
    <child link="right_back_left_two_roller"/>
    <origin rpy="0 1.30895833333 0" xyz="0.0458810021002 0.0088 0.012295675918"/>
    <dynamics damping="0.0001"/>
  </joint>
  <!-- This block provides the simulator (Gazebo) with information on a few additional
        physical properties. See http://gazebosim.org/tutorials/?tut=ros_urdf for more-->
  <gazebo reference="right_back_left_two_roller">
    <mu1 value="2000.0"/>
    <mu2 value="1000.0"/>
    <kp value="10000000.0"/>
    <kd value="1.0"/>
    <material>Gazebo/Grey</material>
  </gazebo>
  <!-- This block connects the wheel joint to an actuator (motor), which informs both
        simulation and visualization of the robot -->
  <link name="right_back_left_thr_roller">
    <visual>
      <origin rpy="0 1.57075 0" xyz="0 0 0"/>
      <geometry>
        <cylinder length="0.015" radius="0.0055"/>
      </geometry>
      <material name="black"/>
    </visual>
    <collision>
      <origin rpy="0 1.57075 0" xyz="0 0 0"/>
      <geometry>
        <cylinder length="0.015" radius="0.0055"/>
      </geometry>
    </collision>
    <inertial>
      <mass value="0.001"/>
      <inertia ixx="0.00001" ixy="0.0" ixz="0.0" iyy="0.00001" iyz="0.0" izz="0.00001"/>
    </inertial>
  </link>
  <joint name="right_back_left_thr_roller_joint" type="continuous">
    <axis xyz="1 0 0"/>
    <parent link="right_back_wheel"/>
    <child link="right_back_left_thr_roller"/>
    <origin rpy="0 1.83254166667 0" xyz="0.0458821411418 0.0088 -0.0122914248257"/>
    <dynamics damping="0.0001"/>
  </joint>
  <!-- This block provides the simulator (Gazebo) with information on a few additional
        physical properties. See http://gazebosim.org/tutorials/?tut=ros_urdf for more-->
  <gazebo reference="right_back_left_thr_roller">
    <mu1 value="2000.0"/>
    <mu2 value="1000.0"/>
    <kp value="10000000.0"/>
    <kd value="1.0"/>
    <material>Gazebo/Grey</material>
  </gazebo>
  <!-- This block connects the wheel joint to an actuator (motor), which informs both
        simulation and visualization of the robot -->
  <link name="right_back_left_for_roller">
    <visual>
      <origin rpy="0 1.57075 0" xyz="0 0 0"/>
      <geometry>
        <cylinder length="0.015" radius="0.0055"/>
      </geometry>
      <material name="black"/>
    </visual>
    <collision>
      <origin rpy="0 1.57075 0" xyz="0 0 0"/>
      <geometry>
        <cylinder length="0.015" radius="0.0055"/>
      </geometry>
    </collision>
    <inertial>
      <mass value="0.001"/>
      <inertia ixx="0.00001" ixy="0.0" ixz="0.0" iyy="0.00001" iyz="0.0" izz="0.00001"/>
    </inertial>
  </link>
  <joint name="right_back_left_for_roller_joint" type="continuous">
    <axis xyz="1 0 0"/>
    <parent link="right_back_wheel"/>
    <child link="right_back_left_for_roller"/>
    <origin rpy="0 2.356125 0" xyz="0.0335899060321 0.0088 -0.0335852380184"/>
    <dynamics damping="0.0001"/>
  </joint>
  <!-- This block provides the simulator (Gazebo) with information on a few additional
        physical properties. See http://gazebosim.org/tutorials/?tut=ros_urdf for more-->
  <gazebo reference="right_back_left_for_roller">
    <mu1 value="2000.0"/>
    <mu2 value="1000.0"/>
    <kp value="10000000.0"/>
    <kd value="1.0"/>
    <material>Gazebo/Grey</material>
  </gazebo>
  <!-- This block connects the wheel joint to an actuator (motor), which informs both
        simulation and visualization of the robot -->
  <link name="right_back_left_fve_roller">
    <visual>
      <origin rpy="0 1.57075 0" xyz="0 0 0"/>
      <geometry>
        <cylinder length="0.015" radius="0.0055"/>
      </geometry>
      <material name="black"/>
    </visual>
    <collision>
      <origin rpy="0 1.57075 0" xyz="0 0 0"/>
      <geometry>
        <cylinder length="0.015" radius="0.0055"/>
      </geometry>
    </collision>
    <inertial>
      <mass value="0.001"/>
      <inertia ixx="0.00001" ixy="0.0" ixz="0.0" iyy="0.00001" iyz="0.0" izz="0.00001"/>
    </inertial>
  </link>
  <joint name="right_back_left_fve_roller_joint" type="continuous">
    <axis xyz="1 0 0"/>
    <parent link="right_back_wheel"/>
    <child link="right_back_left_fve_roller"/>
    <origin rpy="0 2.87970833333 0" xyz="0.0122978014246 0.0088 -0.0458804324317"/>
    <dynamics damping="0.0001"/>
  </joint>
  <!-- This block provides the simulator (Gazebo) with information on a few additional
        physical properties. See http://gazebosim.org/tutorials/?tut=ros_urdf for more-->
  <gazebo reference="right_back_left_fve_roller">
    <mu1 value="2000.0"/>
    <mu2 value="1000.0"/>
    <kp value="10000000.0"/>
    <kd value="1.0"/>
    <material>Gazebo/Grey</material>
  </gazebo>
  <!-- This block connects the wheel joint to an actuator (motor), which informs both
        simulation and visualization of the robot -->
  <link name="right_back_left_six_roller">
    <visual>
      <origin rpy="0 1.57075 0" xyz="0 0 0"/>
      <geometry>
        <cylinder length="0.015" radius="0.0055"/>
      </geometry>
      <material name="black"/>
    </visual>
    <collision>
      <origin rpy="0 1.57075 0" xyz="0 0 0"/>
      <geometry>
        <cylinder length="0.015" radius="0.0055"/>
      </geometry>
    </collision>
    <inertial>
      <mass value="0.001"/>
      <inertia ixx="0.00001" ixy="0.0" ixz="0.0" iyy="0.00001" iyz="0.0" izz="0.00001"/>
    </inertial>
  </link>
  <joint name="right_back_left_six_roller_joint" type="continuous">
    <axis xyz="1 0 0"/>
    <parent link="right_back_wheel"/>
    <child link="right_back_left_six_roller"/>
    <origin rpy="0 3.40329166667 0" xyz="-0.01228929924 0.0088 -0.0458827105149"/>
    <dynamics damping="0.0001"/>
  </joint>
  <!-- This block provides the simulator (Gazebo) with information on a few additional
        physical properties. See http://gazebosim.org/tutorials/?tut=ros_urdf for more-->
  <gazebo reference="right_back_left_six_roller">
    <mu1 value="2000.0"/>
    <mu2 value="1000.0"/>
    <kp value="10000000.0"/>
    <kd value="1.0"/>
    <material>Gazebo/Grey</material>
  </gazebo>
  <!-- This block connects the wheel joint to an actuator (motor), which informs both
        simulation and visualization of the robot -->
  <link name="right_back_left_svn_roller">
    <visual>
      <origin rpy="0 1.57075 0" xyz="0 0 0"/>
      <geometry>
        <cylinder length="0.015" radius="0.0055"/>
      </geometry>
      <material name="black"/>
    </visual>
    <collision>
      <origin rpy="0 1.57075 0" xyz="0 0 0"/>
      <geometry>
        <cylinder length="0.015" radius="0.0055"/>
      </geometry>
    </collision>
    <inertial>
      <mass value="0.001"/>
      <inertia ixx="0.00001" ixy="0.0" ixz="0.0" iyy="0.00001" iyz="0.0" izz="0.00001"/>
    </inertial>
  </link>
  <joint name="right_back_left_svn_roller_joint" type="continuous">
    <axis xyz="1 0 0"/>
    <parent link="right_back_wheel"/>
    <child link="right_back_left_svn_roller"/>
    <origin rpy="0 3.926875 0" xyz="-0.0335836818697 0.0088 -0.0335914618925"/>
    <dynamics damping="0.0001"/>
  </joint>
  <!-- This block provides the simulator (Gazebo) with information on a few additional
        physical properties. See http://gazebosim.org/tutorials/?tut=ros_urdf for more-->
  <gazebo reference="right_back_left_svn_roller">
    <mu1 value="2000.0"/>
    <mu2 value="1000.0"/>
    <kp value="10000000.0"/>
    <kd value="1.0"/>
    <material>Gazebo/Grey</material>
  </gazebo>
  <!-- This block connects the wheel joint to an actuator (motor), which informs both
        simulation and visualization of the robot -->
  <link name="right_back_left_ate_roller">
    <visual>
      <origin rpy="0 1.57075 0" xyz="0 0 0"/>
      <geometry>
        <cylinder length="0.015" radius="0.0055"/>
      </geometry>
      <material name="black"/>
    </visual>
    <collision>
      <origin rpy="0 1.57075 0" xyz="0 0 0"/>
      <geometry>
        <cylinder length="0.015" radius="0.0055"/>
      </geometry>
    </collision>
    <inertial>
      <mass value="0.001"/>
      <inertia ixx="0.00001" ixy="0.0" ixz="0.0" iyy="0.00001" iyz="0.0" izz="0.00001"/>
    </inertial>
  </link>
  <joint name="right_back_left_ate_roller_joint" type="continuous">
    <axis xyz="1 0 0"/>
    <parent link="right_back_wheel"/>
    <child link="right_back_left_ate_roller"/>
    <origin rpy="0 4.45045833333 0" xyz="-0.0458798626648 0.0088 -0.0122999269048"/>
    <dynamics damping="0.0001"/>
  </joint>
  <!-- This block provides the simulator (Gazebo) with information on a few additional
        physical properties. See http://gazebosim.org/tutorials/?tut=ros_urdf for more-->
  <gazebo reference="right_back_left_ate_roller">
    <mu1 value="2000.0"/>
    <mu2 value="1000.0"/>
    <kp value="10000000.0"/>
    <kd value="1.0"/>
    <material>Gazebo/Grey</material>
  </gazebo>
  <!-- This block connects the wheel joint to an actuator (motor), which informs both
        simulation and visualization of the robot -->
  <link name="right_back_left_nne_roller">
    <visual>
      <origin rpy="0 1.57075 0" xyz="0 0 0"/>
      <geometry>
        <cylinder length="0.015" radius="0.0055"/>
      </geometry>
      <material name="black"/>
    </visual>
    <collision>
      <origin rpy="0 1.57075 0" xyz="0 0 0"/>
      <geometry>
        <cylinder length="0.015" radius="0.0055"/>
      </geometry>
    </collision>
    <inertial>
      <mass value="0.001"/>
      <inertia ixx="0.00001" ixy="0.0" ixz="0.0" iyy="0.00001" iyz="0.0" izz="0.00001"/>
    </inertial>
  </link>
  <joint name="right_back_left_nne_roller_joint" type="continuous">
    <axis xyz="1 0 0"/>
    <parent link="right_back_wheel"/>
    <child link="right_back_left_nne_roller"/>
    <origin rpy="0 4.97404166667 0" xyz="-0.0458832797895 0.0088 0.0122871736279"/>
    <dynamics damping="0.0001"/>
  </joint>
  <!-- This block provides the simulator (Gazebo) with information on a few additional
        physical properties. See http://gazebosim.org/tutorials/?tut=ros_urdf for more-->
  <gazebo reference="right_back_left_nne_roller">
    <mu1 value="2000.0"/>
    <mu2 value="1000.0"/>
    <kp value="10000000.0"/>
    <kd value="1.0"/>
    <material>Gazebo/Grey</material>
  </gazebo>
  <!-- This block connects the wheel joint to an actuator (motor), which informs both
        simulation and visualization of the robot -->
  <link name="right_back_left_ten_roller">
    <visual>
      <origin rpy="0 1.57075 0" xyz="0 0 0"/>
      <geometry>
        <cylinder length="0.015" radius="0.0055"/>
      </geometry>
      <material name="black"/>
    </visual>
    <collision>
      <origin rpy="0 1.57075 0" xyz="0 0 0"/>
      <geometry>
        <cylinder length="0.015" radius="0.0055"/>
      </geometry>
    </collision>
    <inertial>
      <mass value="0.001"/>
      <inertia ixx="0.00001" ixy="0.0" ixz="0.0" iyy="0.00001" iyz="0.0" izz="0.00001"/>
    </inertial>
  </link>
  <joint name="right_back_left_ten_roller_joint" type="continuous">
    <axis xyz="1 0 0"/>
    <parent link="right_back_wheel"/>
    <child link="right_back_left_ten_roller"/>
    <origin rpy="0 5.497625 0" xyz="-0.0335930176808 0.0088 0.0335821256489"/>
    <dynamics damping="0.0001"/>
  </joint>
  <!-- This block provides the simulator (Gazebo) with information on a few additional
        physical properties. See http://gazebosim.org/tutorials/?tut=ros_urdf for more-->
  <gazebo reference="right_back_left_ten_roller">
    <mu1 value="2000.0"/>
    <mu2 value="1000.0"/>
    <kp value="10000000.0"/>
    <kd value="1.0"/>
    <material>Gazebo/Grey</material>
  </gazebo>
  <!-- This block connects the wheel joint to an actuator (motor), which informs both
        simulation and visualization of the robot -->
  <link name="right_back_left_lvn_roller">
    <visual>
      <origin rpy="0 1.57075 0" xyz="0 0 0"/>
      <geometry>
        <cylinder length="0.015" radius="0.0055"/>
      </geometry>
      <material name="black"/>
    </visual>
    <collision>
      <origin rpy="0 1.57075 0" xyz="0 0 0"/>
      <geometry>
        <cylinder length="0.015" radius="0.0055"/>
      </geometry>
    </collision>
    <inertial>
      <mass value="0.001"/>
      <inertia ixx="0.00001" ixy="0.0" ixz="0.0" iyy="0.00001" iyz="0.0" izz="0.00001"/>
    </inertial>
  </link>
  <joint name="right_back_left_lvn_roller_joint" type="continuous">
    <axis xyz="1 0 0"/>
    <parent link="right_back_wheel"/>
    <child link="right_back_left_lvn_roller"/>
    <origin rpy="0 6.02120833333 0" xyz="-0.0123020523586 0.0088 0.0458792927993"/>
    <dynamics damping="0.0001"/>
  </joint>
  <!-- This block provides the simulator (Gazebo) with information on a few additional
        physical properties. See http://gazebosim.org/tutorials/?tut=ros_urdf for more-->
  <gazebo reference="right_back_left_lvn_roller">
    <mu1 value="2000.0"/>
    <mu2 value="1000.0"/>
    <kp value="10000000.0"/>
    <kd value="1.0"/>
    <material>Gazebo/Grey</material>
  </gazebo>
  <!-- This block connects the wheel joint to an actuator (motor), which informs both
        simulation and visualization of the robot -->
  <link name="right_back_left_wlv_roller">
    <visual>
      <origin rpy="0 1.57075 0" xyz="0 0 0"/>
      <geometry>
        <cylinder length="0.015" radius="0.0055"/>
      </geometry>
      <material name="black"/>
    </visual>
    <collision>
      <origin rpy="0 1.57075 0" xyz="0 0 0"/>
      <geometry>
        <cylinder length="0.015" radius="0.0055"/>
      </geometry>
    </collision>
    <inertial>
      <mass value="0.001"/>
      <inertia ixx="0.00001" ixy="0.0" ixz="0.0" iyy="0.00001" iyz="0.0" izz="0.00001"/>
    </inertial>
  </link>
  <joint name="right_back_left_wlv_roller_joint" type="continuous">
    <axis xyz="1 0 0"/>
    <parent link="right_back_wheel"/>
    <child link="right_back_left_wlv_roller"/>
    <origin rpy="0 6.54479166667 0" xyz="0.0122850479894 0.0088 0.0458838489656"/>
    <dynamics damping="0.0001"/>
  </joint>
  <!-- This block provides the simulator (Gazebo) with information on a few additional
        physical properties. See http://gazebosim.org/tutorials/?tut=ros_urdf for more-->
  <gazebo reference="right_back_left_wlv_roller">
    <mu1 value="2000.0"/>
    <mu2 value="1000.0"/>
    <kp value="10000000.0"/>
    <kd value="1.0"/>
    <material>Gazebo/Grey</material>
  </gazebo>
  <!-- This block connects the wheel joint to an actuator (motor), which informs both
        simulation and visualization of the robot -->
  <link name="left2_front2_wheel">
    <visual>
      <origin rpy="1.57075 0 0" xyz="0 0 0"/>
      <geometry>
        <cylinder length="0.025" radius="0.041"/>
      </geometry>
      <material name="black"/>
    </visual>
    <collision>
      <origin rpy="1.57075 0 0" xyz="0 0 0"/>
      <geometry>
        <cylinder length="0.025" radius="0.041"/>
      </geometry>
    </collision>
    <inertial>
      <mass value="0.001"/>
      <inertia ixx="0.00001" ixy="0.0" ixz="0.0" iyy="0.00001" iyz="0.0" izz="0.00001"/>
    </inertial>
  </link>
  <joint name="left2_front2_wheel_joint" type="continuous">
    <axis xyz="0 1 0"/>
    <parent link="chassis_link"/>
    <child link="left2_front2_wheel"/>
    <origin rpy="0 0 0" xyz="0.133333333333 0.1 -.05"/>
  </joint>
  <!-- This block provides the simulator (Gazebo) with information on a few additional
        physical properties. See http://gazebosim.org/tutorials/?tut=ros_urdf for more-->
  <gazebo reference="left2_front2_wheel">
    <mu1 value="200.0"/>
    <mu2 value="100.0"/>
    <kp value="10000000.0"/>
    <kd value="1.0"/>
    <material>Gazebo/Green</material>
  </gazebo>
  <!-- This block connects the wheel joint to an actuator (motor), which informs both
        simulation and visualization of the robot -->
  <transmission name="left2_front2_wheel_trans">
    <type>transmission_interface/SimpleTransmission</type>
    <actuator name="left2_front2_wheel_motor">
      <mechanicalReduction>1</mechanicalReduction>
    </actuator>
    <joint name="left2_front2_wheel_joint">
      <hardwareInterface>VelocityJointInterface</hardwareInterface>
    </joint>
  </transmission>
  <link name="left2_front2_right_one_roller">
    <visual>
      <origin rpy="0 1.57075 0" xyz="0 0 0"/>
      <geometry>
        <cylinder length="0.015" radius="0.0055"/>
      </geometry>
      <material name="black"/>
    </visual>
    <collision>
      <origin rpy="0 1.57075 0" xyz="0 0 0"/>
      <geometry>
        <cylinder length="0.015" radius="0.0055"/>
      </geometry>
    </collision>
    <inertial>
      <mass value="0.001"/>
      <inertia ixx="0.00001" ixy="0.0" ixz="0.0" iyy="0.00001" iyz="0.0" izz="0.00001"/>
    </inertial>
  </link>
  <joint name="left2_front2_right_one_roller_joint" type="continuous">
    <axis xyz="1 0 0"/>
    <parent link="left2_front2_wheel"/>
    <child link="left2_front2_right_one_roller"/>
    <origin rpy="0 0.523583333333 0" xyz="0.023749364761 -0.0088 0.0411365734286"/>
    <dynamics damping="0.0001"/>
  </joint>
  <!-- This block provides the simulator (Gazebo) with information on a few additional
        physical properties. See http://gazebosim.org/tutorials/?tut=ros_urdf for more-->
  <gazebo reference="left2_front2_right_one_roller">
    <mu1 value="2000.0"/>
    <mu2 value="1000.0"/>
    <kp value="10000000.0"/>
    <kd value="1.0"/>
    <material>Gazebo/Grey</material>
  </gazebo>
  <!-- This block connects the wheel joint to an actuator (motor), which informs both
        simulation and visualization of the robot -->
  <link name="left2_front2_right_two_roller">
    <visual>
      <origin rpy="0 1.57075 0" xyz="0 0 0"/>
      <geometry>
        <cylinder length="0.015" radius="0.0055"/>
      </geometry>
      <material name="black"/>
    </visual>
    <collision>
      <origin rpy="0 1.57075 0" xyz="0 0 0"/>
      <geometry>
        <cylinder length="0.015" radius="0.0055"/>
      </geometry>
    </collision>
    <inertial>
      <mass value="0.001"/>
      <inertia ixx="0.00001" ixy="0.0" ixz="0.0" iyy="0.00001" iyz="0.0" izz="0.00001"/>
    </inertial>
  </link>
  <joint name="left2_front2_right_two_roller_joint" type="continuous">
    <axis xyz="1 0 0"/>
    <parent link="left2_front2_wheel"/>
    <child link="left2_front2_right_two_roller"/>
    <origin rpy="0 1.04716666667 0" xyz="0.0411354731526 -0.0088 0.0237512704611"/>
    <dynamics damping="0.0001"/>
  </joint>
  <!-- This block provides the simulator (Gazebo) with information on a few additional
        physical properties. See http://gazebosim.org/tutorials/?tut=ros_urdf for more-->
  <gazebo reference="left2_front2_right_two_roller">
    <mu1 value="2000.0"/>
    <mu2 value="1000.0"/>
    <kp value="10000000.0"/>
    <kd value="1.0"/>
    <material>Gazebo/Grey</material>
  </gazebo>
  <!-- This block connects the wheel joint to an actuator (motor), which informs both
        simulation and visualization of the robot -->
  <link name="left2_front2_right_thr_roller">
    <visual>
      <origin rpy="0 1.57075 0" xyz="0 0 0"/>
      <geometry>
        <cylinder length="0.015" radius="0.0055"/>
      </geometry>
      <material name="black"/>
    </visual>
    <collision>
      <origin rpy="0 1.57075 0" xyz="0 0 0"/>
      <geometry>
        <cylinder length="0.015" radius="0.0055"/>
      </geometry>
    </collision>
    <inertial>
      <mass value="0.001"/>
      <inertia ixx="0.00001" ixy="0.0" ixz="0.0" iyy="0.00001" iyz="0.0" izz="0.00001"/>
    </inertial>
  </link>
  <joint name="left2_front2_right_thr_roller_joint" type="continuous">
    <axis xyz="1 0 0"/>
    <parent link="left2_front2_wheel"/>
    <child link="left2_front2_right_thr_roller"/>
    <origin rpy="0 1.57075 0" xyz="0.047499999949 -0.0088 2.2005227568e-06"/>
    <dynamics damping="0.0001"/>
  </joint>
  <!-- This block provides the simulator (Gazebo) with information on a few additional
        physical properties. See http://gazebosim.org/tutorials/?tut=ros_urdf for more-->
  <gazebo reference="left2_front2_right_thr_roller">
    <mu1 value="2000.0"/>
    <mu2 value="1000.0"/>
    <kp value="10000000.0"/>
    <kd value="1.0"/>
    <material>Gazebo/Grey</material>
  </gazebo>
  <!-- This block connects the wheel joint to an actuator (motor), which informs both
        simulation and visualization of the robot -->
  <link name="left2_front2_right_for_roller">
    <visual>
      <origin rpy="0 1.57075 0" xyz="0 0 0"/>
      <geometry>
        <cylinder length="0.015" radius="0.0055"/>
      </geometry>
      <material name="black"/>
    </visual>
    <collision>
      <origin rpy="0 1.57075 0" xyz="0 0 0"/>
      <geometry>
        <cylinder length="0.015" radius="0.0055"/>
      </geometry>
    </collision>
    <inertial>
      <mass value="0.001"/>
      <inertia ixx="0.00001" ixy="0.0" ixz="0.0" iyy="0.00001" iyz="0.0" izz="0.00001"/>
    </inertial>
  </link>
  <joint name="left2_front2_right_for_roller_joint" type="continuous">
    <axis xyz="1 0 0"/>
    <parent link="left2_front2_wheel"/>
    <child link="left2_front2_right_for_roller"/>
    <origin rpy="0 2.09433333333 0" xyz="0.0411376736165 -0.0088 -0.0237474590099"/>
    <dynamics damping="0.0001"/>
  </joint>
  <!-- This block provides the simulator (Gazebo) with information on a few additional
        physical properties. See http://gazebosim.org/tutorials/?tut=ros_urdf for more-->
  <gazebo reference="left2_front2_right_for_roller">
    <mu1 value="2000.0"/>
    <mu2 value="1000.0"/>
    <kp value="10000000.0"/>
    <kd value="1.0"/>
    <material>Gazebo/Grey</material>
  </gazebo>
  <!-- This block connects the wheel joint to an actuator (motor), which informs both
        simulation and visualization of the robot -->
  <link name="left2_front2_right_fve_roller">
    <visual>
      <origin rpy="0 1.57075 0" xyz="0 0 0"/>
      <geometry>
        <cylinder length="0.015" radius="0.0055"/>
      </geometry>
      <material name="black"/>
    </visual>
    <collision>
      <origin rpy="0 1.57075 0" xyz="0 0 0"/>
      <geometry>
        <cylinder length="0.015" radius="0.0055"/>
      </geometry>
    </collision>
    <inertial>
      <mass value="0.001"/>
      <inertia ixx="0.00001" ixy="0.0" ixz="0.0" iyy="0.00001" iyz="0.0" izz="0.00001"/>
    </inertial>
  </link>
  <joint name="left2_front2_right_fve_roller_joint" type="continuous">
    <axis xyz="1 0 0"/>
    <parent link="left2_front2_wheel"/>
    <child link="left2_front2_right_fve_roller"/>
    <origin rpy="0 2.61791666667 0" xyz="0.0237531761102 -0.0088 -0.0411343727882"/>
    <dynamics damping="0.0001"/>
  </joint>
  <!-- This block provides the simulator (Gazebo) with information on a few additional
        physical properties. See http://gazebosim.org/tutorials/?tut=ros_urdf for more-->
  <gazebo reference="left2_front2_right_fve_roller">
    <mu1 value="2000.0"/>
    <mu2 value="1000.0"/>
    <kp value="10000000.0"/>
    <kd value="1.0"/>
    <material>Gazebo/Grey</material>
  </gazebo>
  <!-- This block connects the wheel joint to an actuator (motor), which informs both
        simulation and visualization of the robot -->
  <link name="left2_front2_right_six_roller">
    <visual>
      <origin rpy="0 1.57075 0" xyz="0 0 0"/>
      <geometry>
        <cylinder length="0.015" radius="0.0055"/>
      </geometry>
      <material name="black"/>
    </visual>
    <collision>
      <origin rpy="0 1.57075 0" xyz="0 0 0"/>
      <geometry>
        <cylinder length="0.015" radius="0.0055"/>
      </geometry>
    </collision>
    <inertial>
      <mass value="0.001"/>
      <inertia ixx="0.00001" ixy="0.0" ixz="0.0" iyy="0.00001" iyz="0.0" izz="0.00001"/>
    </inertial>
  </link>
  <joint name="left2_front2_right_six_roller_joint" type="continuous">
    <axis xyz="1 0 0"/>
    <parent link="left2_front2_wheel"/>
    <child link="left2_front2_right_six_roller"/>
    <origin rpy="0 3.1415 0" xyz="4.40104550887e-06 -0.0088 -0.0474999997961"/>
    <dynamics damping="0.0001"/>
  </joint>
  <!-- This block provides the simulator (Gazebo) with information on a few additional
        physical properties. See http://gazebosim.org/tutorials/?tut=ros_urdf for more-->
  <gazebo reference="left2_front2_right_six_roller">
    <mu1 value="2000.0"/>
    <mu2 value="1000.0"/>
    <kp value="10000000.0"/>
    <kd value="1.0"/>
    <material>Gazebo/Grey</material>
  </gazebo>
  <!-- This block connects the wheel joint to an actuator (motor), which informs both
        simulation and visualization of the robot -->
  <link name="left2_front2_right_svn_roller">
    <visual>
      <origin rpy="0 1.57075 0" xyz="0 0 0"/>
      <geometry>
        <cylinder length="0.015" radius="0.0055"/>
      </geometry>
      <material name="black"/>
    </visual>
    <collision>
      <origin rpy="0 1.57075 0" xyz="0 0 0"/>
      <geometry>
        <cylinder length="0.015" radius="0.0055"/>
      </geometry>
    </collision>
    <inertial>
      <mass value="0.001"/>
      <inertia ixx="0.00001" ixy="0.0" ixz="0.0" iyy="0.00001" iyz="0.0" izz="0.00001"/>
    </inertial>
  </link>
  <joint name="left2_front2_right_svn_roller_joint" type="continuous">
    <axis xyz="1 0 0"/>
    <parent link="left2_front2_wheel"/>
    <child link="left2_front2_right_svn_roller"/>
    <origin rpy="0 3.66508333333 0" xyz="-0.0237455532078 -0.0088 -0.041138773716"/>
    <dynamics damping="0.0001"/>
  </joint>
  <!-- This block provides the simulator (Gazebo) with information on a few additional
        physical properties. See http://gazebosim.org/tutorials/?tut=ros_urdf for more-->
  <gazebo reference="left2_front2_right_svn_roller">
    <mu1 value="2000.0"/>
    <mu2 value="1000.0"/>
    <kp value="10000000.0"/>
    <kd value="1.0"/>
    <material>Gazebo/Grey</material>
  </gazebo>
  <!-- This block connects the wheel joint to an actuator (motor), which informs both
        simulation and visualization of the robot -->
  <link name="left2_front2_right_ate_roller">
    <visual>
      <origin rpy="0 1.57075 0" xyz="0 0 0"/>
      <geometry>
        <cylinder length="0.015" radius="0.0055"/>
      </geometry>
      <material name="black"/>
    </visual>
    <collision>
      <origin rpy="0 1.57075 0" xyz="0 0 0"/>
      <geometry>
        <cylinder length="0.015" radius="0.0055"/>
      </geometry>
    </collision>
    <inertial>
      <mass value="0.001"/>
      <inertia ixx="0.00001" ixy="0.0" ixz="0.0" iyy="0.00001" iyz="0.0" izz="0.00001"/>
    </inertial>
  </link>
  <joint name="left2_front2_right_ate_roller_joint" type="continuous">
    <axis xyz="1 0 0"/>
    <parent link="left2_front2_wheel"/>
    <child link="left2_front2_right_ate_roller"/>
    <origin rpy="0 4.18866666667 0" xyz="-0.0411332723355 -0.0088 -0.0237550817084"/>
    <dynamics damping="0.0001"/>
  </joint>
  <!-- This block provides the simulator (Gazebo) with information on a few additional
        physical properties. See http://gazebosim.org/tutorials/?tut=ros_urdf for more-->
  <gazebo reference="left2_front2_right_ate_roller">
    <mu1 value="2000.0"/>
    <mu2 value="1000.0"/>
    <kp value="10000000.0"/>
    <kd value="1.0"/>
    <material>Gazebo/Grey</material>
  </gazebo>
  <!-- This block connects the wheel joint to an actuator (motor), which informs both
        simulation and visualization of the robot -->
  <link name="left2_front2_right_nne_roller">
    <visual>
      <origin rpy="0 1.57075 0" xyz="0 0 0"/>
      <geometry>
        <cylinder length="0.015" radius="0.0055"/>
      </geometry>
      <material name="black"/>
    </visual>
    <collision>
      <origin rpy="0 1.57075 0" xyz="0 0 0"/>
      <geometry>
        <cylinder length="0.015" radius="0.0055"/>
      </geometry>
    </collision>
    <inertial>
      <mass value="0.001"/>
      <inertia ixx="0.00001" ixy="0.0" ixz="0.0" iyy="0.00001" iyz="0.0" izz="0.00001"/>
    </inertial>
  </link>
  <joint name="left2_front2_right_nne_roller_joint" type="continuous">
    <axis xyz="1 0 0"/>
    <parent link="left2_front2_wheel"/>
    <child link="left2_front2_right_nne_roller"/>
    <origin rpy="0 4.71225 0" xyz="-0.0474999995413 -0.0088 -6.60156825151e-06"/>
    <dynamics damping="0.0001"/>
  </joint>
  <!-- This block provides the simulator (Gazebo) with information on a few additional
        physical properties. See http://gazebosim.org/tutorials/?tut=ros_urdf for more-->
  <gazebo reference="left2_front2_right_nne_roller">
    <mu1 value="2000.0"/>
    <mu2 value="1000.0"/>
    <kp value="10000000.0"/>
    <kd value="1.0"/>
    <material>Gazebo/Grey</material>
  </gazebo>
  <!-- This block connects the wheel joint to an actuator (motor), which informs both
        simulation and visualization of the robot -->
  <link name="left2_front2_right_ten_roller">
    <visual>
      <origin rpy="0 1.57075 0" xyz="0 0 0"/>
      <geometry>
        <cylinder length="0.015" radius="0.0055"/>
      </geometry>
      <material name="black"/>
    </visual>
    <collision>
      <origin rpy="0 1.57075 0" xyz="0 0 0"/>
      <geometry>
        <cylinder length="0.015" radius="0.0055"/>
      </geometry>
    </collision>
    <inertial>
      <mass value="0.001"/>
      <inertia ixx="0.00001" ixy="0.0" ixz="0.0" iyy="0.00001" iyz="0.0" izz="0.00001"/>
    </inertial>
  </link>
  <joint name="left2_front2_right_ten_roller_joint" type="continuous">
    <axis xyz="1 0 0"/>
    <parent link="left2_front2_wheel"/>
    <child link="left2_front2_right_ten_roller"/>
    <origin rpy="0 5.23583333333 0" xyz="-0.0411398737272 -0.0088 0.0237436473548"/>
    <dynamics damping="0.0001"/>
  </joint>
  <!-- This block provides the simulator (Gazebo) with information on a few additional
        physical properties. See http://gazebosim.org/tutorials/?tut=ros_urdf for more-->
  <gazebo reference="left2_front2_right_ten_roller">
    <mu1 value="2000.0"/>
    <mu2 value="1000.0"/>
    <kp value="10000000.0"/>
    <kd value="1.0"/>
    <material>Gazebo/Grey</material>
  </gazebo>
  <!-- This block connects the wheel joint to an actuator (motor), which informs both
        simulation and visualization of the robot -->
  <link name="left2_front2_right_lvn_roller">
    <visual>
      <origin rpy="0 1.57075 0" xyz="0 0 0"/>
      <geometry>
        <cylinder length="0.015" radius="0.0055"/>
      </geometry>
      <material name="black"/>
    </visual>
    <collision>
      <origin rpy="0 1.57075 0" xyz="0 0 0"/>
      <geometry>
        <cylinder length="0.015" radius="0.0055"/>
      </geometry>
    </collision>
    <inertial>
      <mass value="0.001"/>
      <inertia ixx="0.00001" ixy="0.0" ixz="0.0" iyy="0.00001" iyz="0.0" izz="0.00001"/>
    </inertial>
  </link>
  <joint name="left2_front2_right_lvn_roller_joint" type="continuous">
    <axis xyz="1 0 0"/>
    <parent link="left2_front2_wheel"/>
    <child link="left2_front2_right_lvn_roller"/>
    <origin rpy="0 5.75941666667 0" xyz="-0.0237569872556 -0.0088 0.0411321717946"/>
    <dynamics damping="0.0001"/>
  </joint>
  <!-- This block provides the simulator (Gazebo) with information on a few additional
        physical properties. See http://gazebosim.org/tutorials/?tut=ros_urdf for more-->
  <gazebo reference="left2_front2_right_lvn_roller">
    <mu1 value="2000.0"/>
    <mu2 value="1000.0"/>
    <kp value="10000000.0"/>
    <kd value="1.0"/>
    <material>Gazebo/Grey</material>
  </gazebo>
  <!-- This block connects the wheel joint to an actuator (motor), which informs both
        simulation and visualization of the robot -->
  <link name="left2_front2_right_wlv_roller">
    <visual>
      <origin rpy="0 1.57075 0" xyz="0 0 0"/>
      <geometry>
        <cylinder length="0.015" radius="0.0055"/>
      </geometry>
      <material name="black"/>
    </visual>
    <collision>
      <origin rpy="0 1.57075 0" xyz="0 0 0"/>
      <geometry>
        <cylinder length="0.015" radius="0.0055"/>
      </geometry>
    </collision>
    <inertial>
      <mass value="0.001"/>
      <inertia ixx="0.00001" ixy="0.0" ixz="0.0" iyy="0.00001" iyz="0.0" izz="0.00001"/>
    </inertial>
  </link>
  <joint name="left2_front2_right_wlv_roller_joint" type="continuous">
    <axis xyz="1 0 0"/>
    <parent link="left2_front2_wheel"/>
    <child link="left2_front2_right_wlv_roller"/>
    <origin rpy="0 6.283 0" xyz="-8.80209097996e-06 -0.0088 0.0474999991845"/>
    <dynamics damping="0.0001"/>
  </joint>
  <!-- This block provides the simulator (Gazebo) with information on a few additional
        physical properties. See http://gazebosim.org/tutorials/?tut=ros_urdf for more-->
  <gazebo reference="left2_front2_right_wlv_roller">
    <mu1 value="2000.0"/>
    <mu2 value="1000.0"/>
    <kp value="10000000.0"/>
    <kd value="1.0"/>
    <material>Gazebo/Grey</material>
  </gazebo>
  <!-- This block connects the wheel joint to an actuator (motor), which informs both
        simulation and visualization of the robot -->
  <link name="left2_front2_left_one_roller">
    <visual>
      <origin rpy="0 1.57075 0" xyz="0 0 0"/>
      <geometry>
        <cylinder length="0.015" radius="0.0055"/>
      </geometry>
      <material name="black"/>
    </visual>
    <collision>
      <origin rpy="0 1.57075 0" xyz="0 0 0"/>
      <geometry>
        <cylinder length="0.015" radius="0.0055"/>
      </geometry>
    </collision>
    <inertial>
      <mass value="0.001"/>
      <inertia ixx="0.00001" ixy="0.0" ixz="0.0" iyy="0.00001" iyz="0.0" izz="0.00001"/>
    </inertial>
  </link>
  <joint name="left2_front2_left_one_roller_joint" type="continuous">
    <axis xyz="1 0 0"/>
    <parent link="left2_front2_wheel"/>
    <child link="left2_front2_left_one_roller"/>
    <origin rpy="0 0.785375 0" xyz="0.0335867940951 0.0088 0.0335883500996"/>
    <dynamics damping="0.0001"/>
  </joint>
  <!-- This block provides the simulator (Gazebo) with information on a few additional
        physical properties. See http://gazebosim.org/tutorials/?tut=ros_urdf for more-->
  <gazebo reference="left2_front2_left_one_roller">
    <mu1 value="2000.0"/>
    <mu2 value="1000.0"/>
    <kp value="10000000.0"/>
    <kd value="1.0"/>
    <material>Gazebo/Grey</material>
  </gazebo>
  <!-- This block connects the wheel joint to an actuator (motor), which informs both
        simulation and visualization of the robot -->
  <link name="left2_front2_left_two_roller">
    <visual>
      <origin rpy="0 1.57075 0" xyz="0 0 0"/>
      <geometry>
        <cylinder length="0.015" radius="0.0055"/>
      </geometry>
      <material name="black"/>
    </visual>
    <collision>
      <origin rpy="0 1.57075 0" xyz="0 0 0"/>
      <geometry>
        <cylinder length="0.015" radius="0.0055"/>
      </geometry>
    </collision>
    <inertial>
      <mass value="0.001"/>
      <inertia ixx="0.00001" ixy="0.0" ixz="0.0" iyy="0.00001" iyz="0.0" izz="0.00001"/>
    </inertial>
  </link>
  <joint name="left2_front2_left_two_roller_joint" type="continuous">
    <axis xyz="1 0 0"/>
    <parent link="left2_front2_wheel"/>
    <child link="left2_front2_left_two_roller"/>
    <origin rpy="0 1.30895833333 0" xyz="0.0458810021002 0.0088 0.012295675918"/>
    <dynamics damping="0.0001"/>
  </joint>
  <!-- This block provides the simulator (Gazebo) with information on a few additional
        physical properties. See http://gazebosim.org/tutorials/?tut=ros_urdf for more-->
  <gazebo reference="left2_front2_left_two_roller">
    <mu1 value="2000.0"/>
    <mu2 value="1000.0"/>
    <kp value="10000000.0"/>
    <kd value="1.0"/>
    <material>Gazebo/Grey</material>
  </gazebo>
  <!-- This block connects the wheel joint to an actuator (motor), which informs both
        simulation and visualization of the robot -->
  <link name="left2_front2_left_thr_roller">
    <visual>
      <origin rpy="0 1.57075 0" xyz="0 0 0"/>
      <geometry>
        <cylinder length="0.015" radius="0.0055"/>
      </geometry>
      <material name="black"/>
    </visual>
    <collision>
      <origin rpy="0 1.57075 0" xyz="0 0 0"/>
      <geometry>
        <cylinder length="0.015" radius="0.0055"/>
      </geometry>
    </collision>
    <inertial>
      <mass value="0.001"/>
      <inertia ixx="0.00001" ixy="0.0" ixz="0.0" iyy="0.00001" iyz="0.0" izz="0.00001"/>
    </inertial>
  </link>
  <joint name="left2_front2_left_thr_roller_joint" type="continuous">
    <axis xyz="1 0 0"/>
    <parent link="left2_front2_wheel"/>
    <child link="left2_front2_left_thr_roller"/>
    <origin rpy="0 1.83254166667 0" xyz="0.0458821411418 0.0088 -0.0122914248257"/>
    <dynamics damping="0.0001"/>
  </joint>
  <!-- This block provides the simulator (Gazebo) with information on a few additional
        physical properties. See http://gazebosim.org/tutorials/?tut=ros_urdf for more-->
  <gazebo reference="left2_front2_left_thr_roller">
    <mu1 value="2000.0"/>
    <mu2 value="1000.0"/>
    <kp value="10000000.0"/>
    <kd value="1.0"/>
    <material>Gazebo/Grey</material>
  </gazebo>
  <!-- This block connects the wheel joint to an actuator (motor), which informs both
        simulation and visualization of the robot -->
  <link name="left2_front2_left_for_roller">
    <visual>
      <origin rpy="0 1.57075 0" xyz="0 0 0"/>
      <geometry>
        <cylinder length="0.015" radius="0.0055"/>
      </geometry>
      <material name="black"/>
    </visual>
    <collision>
      <origin rpy="0 1.57075 0" xyz="0 0 0"/>
      <geometry>
        <cylinder length="0.015" radius="0.0055"/>
      </geometry>
    </collision>
    <inertial>
      <mass value="0.001"/>
      <inertia ixx="0.00001" ixy="0.0" ixz="0.0" iyy="0.00001" iyz="0.0" izz="0.00001"/>
    </inertial>
  </link>
  <joint name="left2_front2_left_for_roller_joint" type="continuous">
    <axis xyz="1 0 0"/>
    <parent link="left2_front2_wheel"/>
    <child link="left2_front2_left_for_roller"/>
    <origin rpy="0 2.356125 0" xyz="0.0335899060321 0.0088 -0.0335852380184"/>
    <dynamics damping="0.0001"/>
  </joint>
  <!-- This block provides the simulator (Gazebo) with information on a few additional
        physical properties. See http://gazebosim.org/tutorials/?tut=ros_urdf for more-->
  <gazebo reference="left2_front2_left_for_roller">
    <mu1 value="2000.0"/>
    <mu2 value="1000.0"/>
    <kp value="10000000.0"/>
    <kd value="1.0"/>
    <material>Gazebo/Grey</material>
  </gazebo>
  <!-- This block connects the wheel joint to an actuator (motor), which informs both
        simulation and visualization of the robot -->
  <link name="left2_front2_left_fve_roller">
    <visual>
      <origin rpy="0 1.57075 0" xyz="0 0 0"/>
      <geometry>
        <cylinder length="0.015" radius="0.0055"/>
      </geometry>
      <material name="black"/>
    </visual>
    <collision>
      <origin rpy="0 1.57075 0" xyz="0 0 0"/>
      <geometry>
        <cylinder length="0.015" radius="0.0055"/>
      </geometry>
    </collision>
    <inertial>
      <mass value="0.001"/>
      <inertia ixx="0.00001" ixy="0.0" ixz="0.0" iyy="0.00001" iyz="0.0" izz="0.00001"/>
    </inertial>
  </link>
  <joint name="left2_front2_left_fve_roller_joint" type="continuous">
    <axis xyz="1 0 0"/>
    <parent link="left2_front2_wheel"/>
    <child link="left2_front2_left_fve_roller"/>
    <origin rpy="0 2.87970833333 0" xyz="0.0122978014246 0.0088 -0.0458804324317"/>
    <dynamics damping="0.0001"/>
  </joint>
  <!-- This block provides the simulator (Gazebo) with information on a few additional
        physical properties. See http://gazebosim.org/tutorials/?tut=ros_urdf for more-->
  <gazebo reference="left2_front2_left_fve_roller">
    <mu1 value="2000.0"/>
    <mu2 value="1000.0"/>
    <kp value="10000000.0"/>
    <kd value="1.0"/>
    <material>Gazebo/Grey</material>
  </gazebo>
  <!-- This block connects the wheel joint to an actuator (motor), which informs both
        simulation and visualization of the robot -->
  <link name="left2_front2_left_six_roller">
    <visual>
      <origin rpy="0 1.57075 0" xyz="0 0 0"/>
      <geometry>
        <cylinder length="0.015" radius="0.0055"/>
      </geometry>
      <material name="black"/>
    </visual>
    <collision>
      <origin rpy="0 1.57075 0" xyz="0 0 0"/>
      <geometry>
        <cylinder length="0.015" radius="0.0055"/>
      </geometry>
    </collision>
    <inertial>
      <mass value="0.001"/>
      <inertia ixx="0.00001" ixy="0.0" ixz="0.0" iyy="0.00001" iyz="0.0" izz="0.00001"/>
    </inertial>
  </link>
  <joint name="left2_front2_left_six_roller_joint" type="continuous">
    <axis xyz="1 0 0"/>
    <parent link="left2_front2_wheel"/>
    <child link="left2_front2_left_six_roller"/>
    <origin rpy="0 3.40329166667 0" xyz="-0.01228929924 0.0088 -0.0458827105149"/>
    <dynamics damping="0.0001"/>
  </joint>
  <!-- This block provides the simulator (Gazebo) with information on a few additional
        physical properties. See http://gazebosim.org/tutorials/?tut=ros_urdf for more-->
  <gazebo reference="left2_front2_left_six_roller">
    <mu1 value="2000.0"/>
    <mu2 value="1000.0"/>
    <kp value="10000000.0"/>
    <kd value="1.0"/>
    <material>Gazebo/Grey</material>
  </gazebo>
  <!-- This block connects the wheel joint to an actuator (motor), which informs both
        simulation and visualization of the robot -->
  <link name="left2_front2_left_svn_roller">
    <visual>
      <origin rpy="0 1.57075 0" xyz="0 0 0"/>
      <geometry>
        <cylinder length="0.015" radius="0.0055"/>
      </geometry>
      <material name="black"/>
    </visual>
    <collision>
      <origin rpy="0 1.57075 0" xyz="0 0 0"/>
      <geometry>
        <cylinder length="0.015" radius="0.0055"/>
      </geometry>
    </collision>
    <inertial>
      <mass value="0.001"/>
      <inertia ixx="0.00001" ixy="0.0" ixz="0.0" iyy="0.00001" iyz="0.0" izz="0.00001"/>
    </inertial>
  </link>
  <joint name="left2_front2_left_svn_roller_joint" type="continuous">
    <axis xyz="1 0 0"/>
    <parent link="left2_front2_wheel"/>
    <child link="left2_front2_left_svn_roller"/>
    <origin rpy="0 3.926875 0" xyz="-0.0335836818697 0.0088 -0.0335914618925"/>
    <dynamics damping="0.0001"/>
  </joint>
  <!-- This block provides the simulator (Gazebo) with information on a few additional
        physical properties. See http://gazebosim.org/tutorials/?tut=ros_urdf for more-->
  <gazebo reference="left2_front2_left_svn_roller">
    <mu1 value="2000.0"/>
    <mu2 value="1000.0"/>
    <kp value="10000000.0"/>
    <kd value="1.0"/>
    <material>Gazebo/Grey</material>
  </gazebo>
  <!-- This block connects the wheel joint to an actuator (motor), which informs both
        simulation and visualization of the robot -->
  <link name="left2_front2_left_ate_roller">
    <visual>
      <origin rpy="0 1.57075 0" xyz="0 0 0"/>
      <geometry>
        <cylinder length="0.015" radius="0.0055"/>
      </geometry>
      <material name="black"/>
    </visual>
    <collision>
      <origin rpy="0 1.57075 0" xyz="0 0 0"/>
      <geometry>
        <cylinder length="0.015" radius="0.0055"/>
      </geometry>
    </collision>
    <inertial>
      <mass value="0.001"/>
      <inertia ixx="0.00001" ixy="0.0" ixz="0.0" iyy="0.00001" iyz="0.0" izz="0.00001"/>
    </inertial>
  </link>
  <joint name="left2_front2_left_ate_roller_joint" type="continuous">
    <axis xyz="1 0 0"/>
    <parent link="left2_front2_wheel"/>
    <child link="left2_front2_left_ate_roller"/>
    <origin rpy="0 4.45045833333 0" xyz="-0.0458798626648 0.0088 -0.0122999269048"/>
    <dynamics damping="0.0001"/>
  </joint>
  <!-- This block provides the simulator (Gazebo) with information on a few additional
        physical properties. See http://gazebosim.org/tutorials/?tut=ros_urdf for more-->
  <gazebo reference="left2_front2_left_ate_roller">
    <mu1 value="2000.0"/>
    <mu2 value="1000.0"/>
    <kp value="10000000.0"/>
    <kd value="1.0"/>
    <material>Gazebo/Grey</material>
  </gazebo>
  <!-- This block connects the wheel joint to an actuator (motor), which informs both
        simulation and visualization of the robot -->
  <link name="left2_front2_left_nne_roller">
    <visual>
      <origin rpy="0 1.57075 0" xyz="0 0 0"/>
      <geometry>
        <cylinder length="0.015" radius="0.0055"/>
      </geometry>
      <material name="black"/>
    </visual>
    <collision>
      <origin rpy="0 1.57075 0" xyz="0 0 0"/>
      <geometry>
        <cylinder length="0.015" radius="0.0055"/>
      </geometry>
    </collision>
    <inertial>
      <mass value="0.001"/>
      <inertia ixx="0.00001" ixy="0.0" ixz="0.0" iyy="0.00001" iyz="0.0" izz="0.00001"/>
    </inertial>
  </link>
  <joint name="left2_front2_left_nne_roller_joint" type="continuous">
    <axis xyz="1 0 0"/>
    <parent link="left2_front2_wheel"/>
    <child link="left2_front2_left_nne_roller"/>
    <origin rpy="0 4.97404166667 0" xyz="-0.0458832797895 0.0088 0.0122871736279"/>
    <dynamics damping="0.0001"/>
  </joint>
  <!-- This block provides the simulator (Gazebo) with information on a few additional
        physical properties. See http://gazebosim.org/tutorials/?tut=ros_urdf for more-->
  <gazebo reference="left2_front2_left_nne_roller">
    <mu1 value="2000.0"/>
    <mu2 value="1000.0"/>
    <kp value="10000000.0"/>
    <kd value="1.0"/>
    <material>Gazebo/Grey</material>
  </gazebo>
  <!-- This block connects the wheel joint to an actuator (motor), which informs both
        simulation and visualization of the robot -->
  <link name="left2_front2_left_ten_roller">
    <visual>
      <origin rpy="0 1.57075 0" xyz="0 0 0"/>
      <geometry>
        <cylinder length="0.015" radius="0.0055"/>
      </geometry>
      <material name="black"/>
    </visual>
    <collision>
      <origin rpy="0 1.57075 0" xyz="0 0 0"/>
      <geometry>
        <cylinder length="0.015" radius="0.0055"/>
      </geometry>
    </collision>
    <inertial>
      <mass value="0.001"/>
      <inertia ixx="0.00001" ixy="0.0" ixz="0.0" iyy="0.00001" iyz="0.0" izz="0.00001"/>
    </inertial>
  </link>
  <joint name="left2_front2_left_ten_roller_joint" type="continuous">
    <axis xyz="1 0 0"/>
    <parent link="left2_front2_wheel"/>
    <child link="left2_front2_left_ten_roller"/>
    <origin rpy="0 5.497625 0" xyz="-0.0335930176808 0.0088 0.0335821256489"/>
    <dynamics damping="0.0001"/>
  </joint>
  <!-- This block provides the simulator (Gazebo) with information on a few additional
        physical properties. See http://gazebosim.org/tutorials/?tut=ros_urdf for more-->
  <gazebo reference="left2_front2_left_ten_roller">
    <mu1 value="2000.0"/>
    <mu2 value="1000.0"/>
    <kp value="10000000.0"/>
    <kd value="1.0"/>
    <material>Gazebo/Grey</material>
  </gazebo>
  <!-- This block connects the wheel joint to an actuator (motor), which informs both
        simulation and visualization of the robot -->
  <link name="left2_front2_left_lvn_roller">
    <visual>
      <origin rpy="0 1.57075 0" xyz="0 0 0"/>
      <geometry>
        <cylinder length="0.015" radius="0.0055"/>
      </geometry>
      <material name="black"/>
    </visual>
    <collision>
      <origin rpy="0 1.57075 0" xyz="0 0 0"/>
      <geometry>
        <cylinder length="0.015" radius="0.0055"/>
      </geometry>
    </collision>
    <inertial>
      <mass value="0.001"/>
      <inertia ixx="0.00001" ixy="0.0" ixz="0.0" iyy="0.00001" iyz="0.0" izz="0.00001"/>
    </inertial>
  </link>
  <joint name="left2_front2_left_lvn_roller_joint" type="continuous">
    <axis xyz="1 0 0"/>
    <parent link="left2_front2_wheel"/>
    <child link="left2_front2_left_lvn_roller"/>
    <origin rpy="0 6.02120833333 0" xyz="-0.0123020523586 0.0088 0.0458792927993"/>
    <dynamics damping="0.0001"/>
  </joint>
  <!-- This block provides the simulator (Gazebo) with information on a few additional
        physical properties. See http://gazebosim.org/tutorials/?tut=ros_urdf for more-->
  <gazebo reference="left2_front2_left_lvn_roller">
    <mu1 value="2000.0"/>
    <mu2 value="1000.0"/>
    <kp value="10000000.0"/>
    <kd value="1.0"/>
    <material>Gazebo/Grey</material>
  </gazebo>
  <!-- This block connects the wheel joint to an actuator (motor), which informs both
        simulation and visualization of the robot -->
  <link name="left2_front2_left_wlv_roller">
    <visual>
      <origin rpy="0 1.57075 0" xyz="0 0 0"/>
      <geometry>
        <cylinder length="0.015" radius="0.0055"/>
      </geometry>
      <material name="black"/>
    </visual>
    <collision>
      <origin rpy="0 1.57075 0" xyz="0 0 0"/>
      <geometry>
        <cylinder length="0.015" radius="0.0055"/>
      </geometry>
    </collision>
    <inertial>
      <mass value="0.001"/>
      <inertia ixx="0.00001" ixy="0.0" ixz="0.0" iyy="0.00001" iyz="0.0" izz="0.00001"/>
    </inertial>
  </link>
  <joint name="left2_front2_left_wlv_roller_joint" type="continuous">
    <axis xyz="1 0 0"/>
    <parent link="left2_front2_wheel"/>
    <child link="left2_front2_left_wlv_roller"/>
    <origin rpy="0 6.54479166667 0" xyz="0.0122850479894 0.0088 0.0458838489656"/>
    <dynamics damping="0.0001"/>
  </joint>
  <!-- This block provides the simulator (Gazebo) with information on a few additional
        physical properties. See http://gazebosim.org/tutorials/?tut=ros_urdf for more-->
  <gazebo reference="left2_front2_left_wlv_roller">
    <mu1 value="2000.0"/>
    <mu2 value="1000.0"/>
    <kp value="10000000.0"/>
    <kd value="1.0"/>
    <material>Gazebo/Grey</material>
  </gazebo>
  <!-- This block connects the wheel joint to an actuator (motor), which informs both
        simulation and visualization of the robot -->
  <!-- Gazebo plugin for ROS Control -->
  <gazebo>
    <plugin filename="libgazebo_ros_control.so" name="gazebo_ros_control">
      <robotNamespace>/</robotNamespace>
    </plugin>
    <plugin filename="libgazebo_ros_p3d.so" name="p3d_base_controller">
      <alwaysOn>true</alwaysOn>
      <updateRate>50.0</updateRate>
      <bodyName>chassis_link</bodyName>
      <topicName>ground_truth/state</topicName>
      <gaussianNoise>0.01</gaussianNoise>
      <frameName>world</frameName>
      <xyzOffsets>0 0 0</xyzOffsets>
      <rpyOffsets>0 0 0</rpyOffsets>
    </plugin>
  </gazebo>
  <joint name="chassis_joint" type="fixed">
    <parent link="base_link"/>
    <child link="chassis_link"/>
  </joint>
  <link name="front_camera_link">
    <visual>
      <origin rpy="0 0 0" xyz="0 0 0"/>
      <geometry>
        <box size="0.01 0.05 0.03"/>
      </geometry>
    </visual>
    <collision>
      <origin rpy="0 0 0" xyz="0 0 0"/>
      <geometry>
        <box size="0.01 0.05 0.03"/>
      </geometry>
    </collision>
    <inertial>
      <mass value="0.300"/>
      <inertia ixx="0.001" ixy="0" ixz="0" iyy="0.001" iyz="0" izz="0.01"/>
    </inertial>
  </link>
  <joint name="front_camera_joint" type="fixed">
    <parent link="base_link"/>
    <child link="front_camera_link"/>
    <origin rpy="0 0 0" xyz="0.1 0 0.1"/>
  </joint>
  <link name="front_lens_link"/>
  <joint name="front_lens_joint" type="fixed">
    <parent link="front_camera_link"/>
    <child link="front_lens_link"/>
    <origin rpy="-1.57 0 -1.57" xyz="0 0 0"/>
  </joint>
  <!-- camera -->
  <gazebo reference="front_camera_link">
    <sensor name="camera_link_sensor" type="depth">
      <!-- offset between camera_link and camera_depth_optical_link -->
      <!-- additional mm offsets added through inspection -->
      <pose>-0.001 -0.045 0.001 -0.000 0 1.57</pose>
      <always_on>true</always_on>
      <update_rate>15.0</update_rate>
      <camera>
        <horizontal_fov>0.994837673637</horizontal_fov>
        <image>
          <format>R8G8B8</format>
          <width>640</width>
          <height>480</height>
        </image>
        <clip>
          <near>0.01</near>
          <far>5</far>
        </clip>
      </camera>
      <plugin filename="libgazebo_ros_openni_kinect.so" name="kinect_camera">
        <alwaysOn>true</alwaysOn>
        <updateRate>15.0</updateRate>
        <cameraName>front_camera</cameraName>
        <frameName>GT/front_lens_link</frameName>
        <imageTopicName>front_camera/rgb/image_rect_color</imageTopicName>
        <cameraInfoTopicName>front_camera/rgb/camera_info</cameraInfoTopicName>
        <depthImageTopicName>front_camera/depth_registered/image_raw</depthImageTopicName>
        <depthImageCameraInfoTopicName>front_camera/depth_registered/camera_info</depthImageCameraInfoTopicName>
        <pointCloudTopicName>front_camera/depth/points</pointCloudTopicName>
        <pointCloudCutoff>0.5</pointCloudCutoff>
        <distortionK1>0.00000001</distortionK1>
        <distortionK2>0.00000001</distortionK2>
        <distortionK3>0.00000001</distortionK3>
        <distortionT1>0.00000001</distortionT1>
        <distortionT2>0.00000001</distortionT2>
      </plugin>
    </sensor>
  </gazebo>
  <link name="back_camera_link">
    <visual>
      <origin rpy="0 0 0" xyz="0 0 0"/>
      <geometry>
        <box size="0.01 0.05 0.03"/>
      </geometry>
    </visual>
    <collision>
      <origin rpy="0 0 0" xyz="0 0 0"/>
      <geometry>
        <box size="0.01 0.05 0.03"/>
      </geometry>
    </collision>
    <inertial>
      <mass value="0.300"/>
      <inertia ixx="0.001" ixy="0" ixz="0" iyy="0.001" iyz="0" izz="0.01"/>
    </inertial>
  </link>
  <joint name="back_camera_joint" type="fixed">
    <parent link="base_link"/>
    <child link="back_camera_link"/>
    <origin rpy="0 0 3.14" xyz="-0.1 0 0.1"/>
  </joint>
  <link name="back_lens_link"/>
  <joint name="back_lens_joint" type="fixed">
    <parent link="back_camera_link"/>
    <child link="back_lens_link"/>
    <origin rpy="-1.57 0 -1.57" xyz="0 0 0"/>
  </joint>
  <!-- camera -->
  <gazebo reference="back_camera_link">
    <sensor name="camera_link_sensor" type="depth">
      <!-- offset between camera_link and camera_depth_optical_link -->
      <!-- additional mm offsets added through inspection -->
      <pose>-0.001 -0.045 0.001 -0.000 0 1.57</pose>
      <always_on>true</always_on>
      <update_rate>15.0</update_rate>
      <camera>
        <horizontal_fov>0.994837673637</horizontal_fov>
        <image>
          <format>R8G8B8</format>
          <width>640</width>
          <height>480</height>
        </image>
        <clip>
          <near>0.01</near>
          <far>5</far>
        </clip>
      </camera>
      <plugin filename="libgazebo_ros_openni_kinect.so" name="kinect_camera">
        <alwaysOn>true</alwaysOn>
        <updateRate>15.0</updateRate>
        <cameraName>back_camera</cameraName>
        <frameName>GT/back_lens_link</frameName>
        <imageTopicName>back_camera/rgb/image_rect_color</imageTopicName>
        <cameraInfoTopicName>back_camera/rgb/camera_info</cameraInfoTopicName>
        <depthImageTopicName>back_camera/depth_registered/image_raw</depthImageTopicName>
        <depthImageCameraInfoTopicName>back_camera/depth_registered/camera_info</depthImageCameraInfoTopicName>
        <pointCloudTopicName>back_camera/depth/points</pointCloudTopicName>
        <pointCloudCutoff>0.5</pointCloudCutoff>
        <distortionK1>0.00000001</distortionK1>
        <distortionK2>0.00000001</distortionK2>
        <distortionK3>0.00000001</distortionK3>
        <distortionT1>0.00000001</distortionT1>
        <distortionT2>0.00000001</distortionT2>
      </plugin>
    </sensor>
  </gazebo>
</robot>
